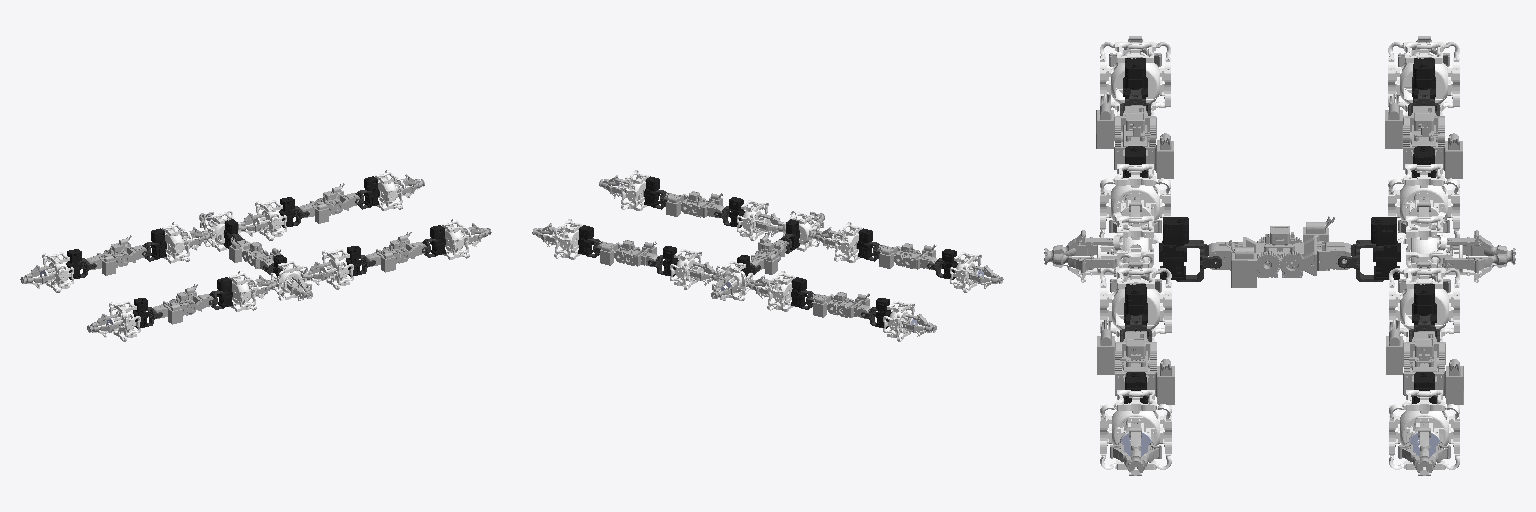
--- Facts derived from the render (not from the file) ---
3 views of the same robot in one strip: view 1: azimuth 30°, elevation 25°; view 2: azimuth 150°, elevation 25°; view 3: azimuth 270°, elevation 25° (orthographic).
Robot: r8_tycoon_assem — 156 links, 155 joints (90 continuous, 65 fixed); root link base_link; default pose: every joint at zero.
Links seen in each view (by area): view 1: none; view 2: none; view 3: griphis_0_mid_pitch_2_link, griphis_0_mid_pitch_1_link, griphis_0_yaw_2_link, griphis_0_yaw_1_link, griphis_2_mid_pitch_2_link, griphis_4_mid_pitch_1_link, griphis_1_mid_pitch_1_link, griphis_3_mid_pitch_2_link, griphis_4_mid_pitch_2_link, griphis_2_roll_2_link, griphis_4_roll_1_link, griphis_1_mid_pitch_2_link (+28 smaller).
Boxes of the visible links, left/top/right/bottom form: griphis_0_mid_pitch_2_link: left=1279, top=216, right=1350, bottom=276; griphis_0_mid_pitch_1_link: left=1209, top=237, right=1280, bottom=287; griphis_0_yaw_2_link: left=1371, top=217, right=1400, bottom=279; griphis_0_yaw_1_link: left=1159, top=217, right=1188, bottom=279; griphis_2_mid_pitch_2_link: left=1096, top=94, right=1156, bottom=148; griphis_4_mid_pitch_1_link: left=1386, top=320, right=1445, bottom=374; griphis_1_mid_pitch_1_link: left=1097, top=320, right=1156, bottom=374; griphis_3_mid_pitch_2_link: left=1385, top=94, right=1444, bottom=148; griphis_4_mid_pitch_2_link: left=1403, top=359, right=1463, bottom=404; griphis_2_roll_2_link: left=1100, top=42, right=1170, bottom=109; griphis_4_roll_1_link: left=1389, top=268, right=1459, bottom=335; griphis_1_mid_pitch_2_link: left=1115, top=359, right=1174, bottom=404.
Size in the robot's own frame: 1.24 by 0.5796 by 0.0959 metres.
155 mesh visuals loaded from 31 distinct referenced files (31 binary STL).

URDF robot description (r8_tycoon_assem):
<?xml version="1.0" ?>
<!-- =================================================================================== -->
<!-- |    This document was autogenerated by xacro from fourlegs_griphis.xacro         | -->
<!-- |    EDITING THIS FILE BY HAND IS NOT RECOMMENDED                                 | -->
<!-- =================================================================================== -->
<robot name="r8_tycoon_assem">
  <!-- Root of the module chain -->
  <link name="base_link"/>
  <joint name="griphis_0_gripper-cp1_to_base_link_joint" type="fixed">
    <parent link="base_link"/>
    <child link="griphis_0_gripper-cp1"/>
    <origin rpy="1.57 0 0" xyz="0 0 0.4"/>
  </joint>
  <link name="griphis_0_base_link">
    <inertial>
      <origin rpy="0 0 0" xyz="-0.00010264257406678 3.31727350517397E-05 -0.00495518296571391"/>
      <mass value="0.0797462541060097"/>
      <inertia ixx="8.57012114371153E-06" ixy="1.08293491537705E-08" ixz="-5.94275788505759E-09" iyy="1.05158543807875E-05" iyz="1.10583333432373E-08" izz="1.08869595154247E-05"/>
    </inertial>
    <visual>
      <origin rpy="0.0 -0.0 0.0" xyz="-0.0148999999999995 0.0176000000000318 0.0109999999999849"/>
      <geometry>
        <mesh filename="./../meshes/base_link.STL"/>
      </geometry>
      <material name="">
        <color rgba="0.752941176470588 0.752941176470588 0.752941176470588 1"/>
      </material>
    </visual>
    <collision>
      <origin rpy="0.0 -0.0 0.0" xyz="-0.0148999999999995 0.0176000000000318 0.0109999999999849"/>
      <geometry>
        <mesh filename="./../meshes/base_link.STL"/>
      </geometry>
    </collision>
  </link>
  <link name="griphis_0_mid_pitch_1_link">
    <inertial>
      <origin rpy="0 0 0" xyz="0.0327517154872403 0.0322634011493343 0.000309410745622088"/>
      <mass value="0.0769353285466722"/>
      <inertia ixx="1.72122749770761E-05" ixy="1.01496940835006E-08" ixz="-9.64331189423188E-08" iyy="1.36641198773196E-05" iyz="5.60814889063421E-07" izz="1.63211688368785E-05"/>
    </inertial>
    <visual>
      <origin rpy="0.0 -0.0 0.0" xyz="-0.0640000000000069 -0.0350999999999983 -0.0"/>
      <geometry>
        <mesh filename="./../meshes/mid_pitch_1_link.STL"/>
      </geometry>
      <material name="">
        <color rgba="0.752941176470588 0.752941176470588 0.752941176470588 1"/>
      </material>
    </visual>
    <collision>
      <origin rpy="0.0 -0.0 0.0" xyz="-0.0640000000000069 -0.0350999999999983 -0.0"/>
      <geometry>
        <mesh filename="./../meshes/mid_pitch_1_link.STL"/>
      </geometry>
    </collision>
  </link>
  <joint name="griphis_0_mid_pitch_1" type="continuous">
    <origin rpy="0.0 -0.0 0.0" xyz="-0.0640000000000069 -0.0350999999999983 -0.0"/>
    <parent link="griphis_0_mid_pitch_1_link"/>
    <child link="griphis_0_base_link"/>
    <axis xyz="-0.0 -1.0 -0.0"/>
    <limit effort="3" velocity="10"/>
  </joint>
  <link name="griphis_0_pitch_1_link">
    <inertial>
      <origin rpy="0 0 0" xyz="0.0191893034316777 -0.017231596070573 -0.00342856576321433"/>
      <mass value="0.0105178263834885"/>
      <inertia ixx="5.84801171286377E-07" ixy="3.57321505354626E-09" ixz="8.8152444778668E-08" iyy="1.04603360596441E-06" iyz="-1.51990885783075E-13" izz="9.82964870358909E-07"/>
    </inertial>
    <visual>
      <origin rpy="0.0 -0.0 0.0" xyz="-0.0420000000000015 0.0175000000000007 -0.0174999999999981"/>
      <geometry>
        <mesh filename="./../meshes/pitch_1_link.STL"/>
      </geometry>
      <material name="">
        <color rgba="0.298039215686275 0.298039215686275 0.298039215686275 1"/>
      </material>
    </visual>
    <collision>
      <origin rpy="0.0 -0.0 0.0" xyz="-0.0420000000000015 0.0175000000000007 -0.0174999999999981"/>
      <geometry>
        <mesh filename="./../meshes/pitch_1_link.STL"/>
      </geometry>
    </collision>
  </link>
  <joint name="griphis_0_pitch_1" type="continuous">
    <origin rpy="0.0 -0.0 0.0" xyz="-0.0420000000000015 0.0175000000000007 -0.0174999999999981"/>
    <parent link="griphis_0_pitch_1_link"/>
    <child link="griphis_0_mid_pitch_1_link"/>
    <axis xyz="-0.0 -1.0 -0.0"/>
    <limit effort="3" velocity="10"/>
  </joint>
  <link name="griphis_0_yaw_1_link">
    <inertial>
      <origin rpy="0 0 0" xyz="0.00934924439107056 -1.17000596711048E-10 -0.0065657034112081"/>
      <mass value="0.0544535701857151"/>
      <inertia ixx="6.16082295678474E-06" ixy="-1.48642619322733E-08" ixz="3.66332313625793E-08" iyy="7.36782974228272E-06" iyz="-1.48634431569832E-08" izz="7.24406343523596E-06"/>
    </inertial>
    <visual>
      <origin rpy="0.0 -0.0 0.0" xyz="-0.0279999999999981 -0.0 0.0175000000000002"/>
      <geometry>
        <mesh filename="./../meshes/yaw_1_link.STL"/>
      </geometry>
      <material name="">
        <color rgba="0.180392156862745 0.180392156862745 0.180392156862745 1"/>
      </material>
    </visual>
    <collision>
      <origin rpy="0.0 -0.0 0.0" xyz="-0.0279999999999981 -0.0 0.0175000000000002"/>
      <geometry>
        <mesh filename="./../meshes/yaw_1_link.STL"/>
      </geometry>
    </collision>
  </link>
  <joint name="griphis_0_yaw_1" type="continuous">
    <origin rpy="0.0 -0.0 0.0" xyz="-0.0279999999999981 -0.0 0.0175000000000002"/>
    <parent link="griphis_0_yaw_1_link"/>
    <child link="griphis_0_pitch_1_link"/>
    <axis xyz="-0.0 -0.0 1.0"/>
    <limit effort="3" velocity="10"/>
  </joint>
  <link name="griphis_0_roll_1_link">
    <inertial>
      <origin rpy="0 0 0" xyz="0.0304847934275313 -0.000533683595524997 -0.000138763582684304"/>
      <mass value="0.0617238803473503"/>
      <inertia ixx="1.72112591146286E-05" ixy="-2.34655399562005E-07" ixz="1.72186999812855E-07" iyy="1.09105230206178E-05" iyz="3.90599560040266E-08" izz="1.62402505711448E-05"/>
    </inertial>
    <visual>
      <origin rpy="0.0 -1.5707963267948966 -1.5707963267948966" xyz="-0.00031819805152675406 0.000318198051528346 -0.0766999999999999"/>
      <geometry>
        <mesh filename="./../meshes/roll_1_link.STL"/>
      </geometry>
      <material name="">
        <color rgba="1 1 1 1"/>
      </material>
    </visual>
    <collision>
      <origin rpy="0.0 -1.5707963267948966 -1.5707963267948966" xyz="-0.00031819805152675406 0.000318198051528346 -0.0766999999999999"/>
      <geometry>
        <mesh filename="./../meshes/roll_1_link.STL"/>
      </geometry>
    </collision>
  </link>
  <joint name="griphis_0_roll_1" type="continuous">
    <origin rpy="0.0 -1.5707963267948966 -1.5707963267948966" xyz="-0.00031819805152675406 0.000318198051528346 -0.0766999999999999"/>
    <parent link="griphis_0_roll_1_link"/>
    <child link="griphis_0_yaw_1_link"/>
    <axis xyz="1.0 -0.0 -0.0"/>
    <limit effort="3" velocity="10"/>
  </joint>
  <link name="griphis_0_worm_1_link">
    <inertial>
      <origin rpy="0 0 0" xyz="0.00680389923417661 1.29536242400655E-05 5.52986221441856E-05"/>
      <mass value="0.00387257618784269"/>
      <inertia ixx="2.06264558567859E-07" ixy="1.13917098659222E-09" ixz="-8.28881114232565E-10" iyy="1.7113732321225E-07" iyz="4.18404893657738E-11" izz="1.71297030362022E-07"/>
    </inertial>
    <visual>
      <origin rpy="0 0 0" xyz="0 0 0"/>
      <geometry>
        <mesh filename="./../meshes/worm_1_link.STL"/>
      </geometry>
      <material name="">
        <color rgba="0.752941176470588 0.752941176470588 0.752941176470588 1"/>
      </material>
    </visual>
    <collision>
      <origin rpy="0 0 0" xyz="0 0 0"/>
      <geometry>
        <mesh filename="./../meshes/worm_1_link.STL"/>
      </geometry>
    </collision>
  </link>
  <joint name="griphis_0_worm_rotate_1" type="continuous">
    <origin rpy="-1.5707963267948963 -1.5707963267948966 0.0" xyz="-0.00031819805152675406 0.00031819805152833553 -0.02969999999999999"/>
    <parent link="griphis_0_roll_1_link"/>
    <child link="griphis_0_worm_1_link"/>
    <axis xyz="1 0 0"/>
    <limit effort="15" velocity="10"/>
  </joint>
  <link name="griphis_0_nail1_1_link">
    <inertial>
      <origin rpy="0 0 0" xyz="0.0375115559402243 -4.52381021421033E-05 0.000927613439051046"/>
      <mass value="0.00785451508753953"/>
      <inertia ixx="3.26792929870295E-07" ixy="2.23311778369799E-10" ixz="3.04391588566406E-07" iyy="1.76174668735888E-06" iyz="-8.7203716693621E-12" izz="1.60467609944965E-06"/>
    </inertial>
    <visual>
      <origin rpy="0 0 0" xyz="0 0 0"/>
      <geometry>
        <mesh filename="./../meshes/nail1_1_link.STL"/>
      </geometry>
      <material name="">
        <color rgba="1 1 1 1"/>
      </material>
    </visual>
    <collision>
      <origin rpy="0 0 0" xyz="0 0 0"/>
      <geometry>
        <mesh filename="./../meshes/nail1_1_link.STL"/>
      </geometry>
    </collision>
  </link>
  <joint name="griphis_0_nail1_rotate_1" type="continuous">
    <origin rpy="1.5707963267948433 -1.5707963267948966 0.0" xyz="-0.00031819805152675075 -0.014681801948467067 -0.019699999999999995"/>
    <parent link="griphis_0_roll_1_link"/>
    <child link="griphis_0_nail1_1_link"/>
    <axis xyz="0 -1 0"/>
    <mimic joint="griphis_0_worm_rotate_1" multiplier="0.091" offset="0"/>
  </joint>
  <link name="griphis_0_nail2_1_link">
    <inertial>
      <origin rpy="0 0 0" xyz="0.0375922338704431 -0.000920668174592305 -5.01249966510589E-05"/>
      <mass value="0.00783920613274618"/>
      <inertia ixx="3.26764420600123E-07" ixy="-3.04083796030301E-07" ixz="3.01596352148099E-10" iyy="1.60307023285989E-06" iyz="-3.50228545349602E-11" izz="1.7600802033745E-06"/>
    </inertial>
    <visual>
      <origin rpy="0 0 0" xyz="0 0 0"/>
      <geometry>
        <mesh filename="./../meshes/nail2_1_link.STL"/>
      </geometry>
      <material name="">
        <color rgba="0.752941176470588 0.752941176470588 0.752941176470588 1"/>
      </material>
    </visual>
    <collision>
      <origin rpy="0 0 0" xyz="0 0 0"/>
      <geometry>
        <mesh filename="./../meshes/nail2_1_link.STL"/>
      </geometry>
    </collision>
  </link>
  <joint name="griphis_0_nail2_rotate_1" type="continuous">
    <origin rpy="-1.5707963267948963 -1.5707963267948966 0.0" xyz="-0.015318198051535455 0.00031819805152833 -0.019699999999999995"/>
    <parent link="griphis_0_roll_1_link"/>
    <child link="griphis_0_nail2_1_link"/>
    <axis xyz="0 0 -1"/>
    <mimic joint="griphis_0_worm_rotate_1" multiplier="0.091" offset="0"/>
  </joint>
  <link name="griphis_0_nail3_1_link">
    <inertial>
      <origin rpy="0 0 0" xyz="0.0376633576375596 -4.50239708446043E-05 0.000912382199221681"/>
      <mass value="0.00782164323980883"/>
      <inertia ixx="3.26387568167113E-07" ixy="1.94469452026803E-10" ixz="3.03929104031752E-07" iyy="1.75640452707706E-06" iyz="-1.77166863072923E-11" izz="1.59916689354216E-06"/>
    </inertial>
    <visual>
      <origin rpy="0 0 0" xyz="0 0 0"/>
      <geometry>
        <mesh filename="./../meshes/nail3_1_link.STL"/>
      </geometry>
      <material name="">
        <color rgba="0.752941176470588 0.752941176470588 0.752941176470588 1"/>
      </material>
    </visual>
    <collision>
      <origin rpy="0 0 0" xyz="0 0 0"/>
      <geometry>
        <mesh filename="./../meshes/nail3_1_link.STL"/>
      </geometry>
    </collision>
  </link>
  <joint name="griphis_0_nail3_rotate_1" type="continuous">
    <origin rpy="-1.5707963267948963 -1.5707963267948966 0.0" xyz="-0.00031819805152675737 0.015318198051532934 -0.019700000000000092"/>
    <parent link="griphis_0_roll_1_link"/>
    <child link="griphis_0_nail3_1_link"/>
    <axis xyz="0 -1 0"/>
    <mimic joint="griphis_0_worm_rotate_1" multiplier="0.091" offset="0"/>
  </joint>
  <link name="griphis_0_nail4_1_link">
    <inertial>
      <origin rpy="0 0 0" xyz="0.0376199045292883 0.000916237603659741 4.27065705779009E-05"/>
      <mass value="0.00783130292561273"/>
      <inertia ixx="3.26490723468266E-07" ixy="3.0398859313737E-07" ixz="-4.37077734142467E-10" iyy="1.60061195688429E-06" iyz="2.94387193060157E-11" izz="1.75778452318195E-06"/>
    </inertial>
    <visual>
      <origin rpy="0 0 0" xyz="0 0 0"/>
      <geometry>
        <mesh filename="./../meshes/nail4_1_link.STL"/>
      </geometry>
      <material name="">
        <color rgba="0.752941176470588 0.752941176470588 0.752941176470588 1"/>
      </material>
    </visual>
    <collision>
      <origin rpy="0 0 0" xyz="0 0 0"/>
      <geometry>
        <mesh filename="./../meshes/nail4_1_link.STL"/>
      </geometry>
    </collision>
  </link>
  <joint name="griphis_0_nail4_rotate_1" type="continuous">
    <origin rpy="-1.5707963267948963 -1.5707963267948966 0.0" xyz="0.014681801948464546 0.00031819805152833667 -0.019699999999999995"/>
    <parent link="griphis_0_roll_1_link"/>
    <child link="griphis_0_nail4_1_link"/>
    <axis xyz="0 0 1"/>
    <mimic joint="griphis_0_worm_rotate_1" multiplier="0.091" offset="0"/>
  </joint>
  <link name="griphis_0_nail-cp1">
    <inertial>
      <origin rpy="0 0 0" xyz="-2.058274506931E-05 -0.000405813357968389 -0.0658092329631552"/>
      <mass value="0.0011585387013778"/>
      <inertia ixx="1.05682260080874E-07" ixy="-1.5764583148915E-09" ixz="-7.53303890952621E-11" iyy="1.05682260080874E-07" iyz="7.53303890952626E-11" izz="2.1081276337663E-07"/>
    </inertial>
    <visual>
      <origin rpy="0 0 0" xyz="0 0 0"/>
      <geometry>
        <mesh filename="./../meshes/nail-cp1.STL"/>
      </geometry>
      <material name="">
        <color rgba="1 1 1 1"/>
      </material>
    </visual>
    <collision>
      <origin rpy="0 0 0" xyz="0 0 0"/>
      <geometry>
        <mesh filename="./../meshes/nail-cp1.STL"/>
      </geometry>
    </collision>
  </link>
  <joint name="griphis_0_nail-cp1" type="fixed">
    <origin rpy="6.4948046940571666e-15 3.774758283725532e-15 -3.141592653589793" xyz="-0.000636396103034807 0.00020999999999474846 0.0650000000000001"/>
    <parent link="griphis_0_roll_1_link"/>
    <child link="griphis_0_nail-cp1"/>
    <axis xyz="0 0 0"/>
  </joint>
  <link name="griphis_0_gripper-cp1">
    <inertial>
      <origin rpy="0 0 0" xyz="-0.000249014516100668 -0.00102239026541428 -0.0133818116212472"/>
      <mass value="0.0105278029927928"/>
      <inertia ixx="2.49426973639437E-06" ixy="-4.53009756265879E-08" ixz="6.75736959711176E-08" iyy="2.70040122944883E-06" iyz="-2.88247256637324E-07" izz="2.67368335360225E-06"/>
    </inertial>
    <visual>
      <origin rpy="0 0 0" xyz="0 0 0"/>
      <geometry>
        <mesh filename="./../meshes/gripper-cp1.STL"/>
      </geometry>
      <material name="">
        <color rgba="1 1 1 1"/>
      </material>
    </visual>
    <collision>
      <origin rpy="0 0 0" xyz="0 0 0"/>
      <geometry>
        <mesh filename="./../meshes/gripper-cp1.STL"/>
      </geometry>
    </collision>
  </link>
  <joint name="griphis_0_gripper-cp1" type="fixed">
    <origin rpy="0 0 0" xyz="0 0 0"/>
    <parent link="griphis_0_gripper-cp1"/>
    <child link="griphis_0_roll_1_link"/>
    <axis xyz="-0.0 -0.0 -0.0"/>
  </joint>
  <link name="griphis_0_nailring1-cp1">
    <inertial>
      <origin rpy="0 0 0" xyz="0.000495209639942942 -2.15213012098869E-07 -0.00500225533856013"/>
      <mass value="0.00888435164177016"/>
      <inertia ixx="1.85848970375133E-06" ixy="4.08320407087235E-11" ixz="9.14133574374128E-10" iyy="1.88948158451332E-06" iyz="-1.8157617423749E-12" izz="3.47494887160992E-06"/>
    </inertial>
    <visual>
      <origin rpy="0 0 0" xyz="0 0 0"/>
      <geometry>
        <mesh filename="./../meshes/nailring1-cp1.STL"/>
      </geometry>
      <material name="">
        <color rgba="1 1 1 1"/>
      </material>
    </visual>
    <collision>
      <origin rpy="0 0 0" xyz="0 0 0"/>
      <geometry>
        <mesh filename="./../meshes/nailring1-cp1.STL"/>
      </geometry>
    </collision>
  </link>
  <joint name="griphis_0_nailring1-cp1" type="fixed">
    <origin rpy="1.5707963267948433 -1.5707963267948966 0.0" xyz="-0.0003181980515267614 0.033318198051532834 -0.048100053496672186"/>
    <parent link="griphis_0_roll_1_link"/>
    <child link="griphis_0_nailring1-cp1"/>
    <axis xyz="0 0 0"/>
  </joint>
  <link name="griphis_0_nailring1-cp2">
    <inertial>
      <origin rpy="0 0 0" xyz="0.000495209639943192 -2.15213011856008E-07 -0.00500225533855998"/>
      <mass value="0.00888435164177017"/>
      <inertia ixx="1.85848970375133E-06" ixy="4.08320407083519E-11" ixz="9.1413357437371E-10" iyy="1.88948158451332E-06" iyz="-1.81576174254404E-12" izz="3.47494887160992E-06"/>
    </inertial>
    <visual>
      <origin rpy="0 0 0" xyz="0 0 0"/>
      <geometry>
        <mesh filename="./../meshes/nailring1-cp2.STL"/>
      </geometry>
      <material name="">
        <color rgba="1 1 1 1"/>
      </material>
    </visual>
    <collision>
      <origin rpy="0 0 0" xyz="0 0 0"/>
      <geometry>
        <mesh filename="./../meshes/nailring1-cp2.STL"/>
      </geometry>
    </collision>
  </link>
  <joint name="griphis_0_nailring1-cp2" type="fixed">
    <origin rpy="-5.645484080218921e-14 -1.5707963057214722 0.0" xyz="0.03268180194846475 0.00031819805152834697 -0.048100053496672394"/>
    <parent link="griphis_0_roll_1_link"/>
    <child link="griphis_0_nailring1-cp2"/>
    <axis xyz="0 0 0"/>
  </joint>
  <link name="griphis_0_nailring1-cp3">
    <inertial>
      <origin rpy="0 0 0" xyz="-0.000495209639943185 2.1521301184213E-07 -0.00500225533856018"/>
      <mass value="0.00888435164177015"/>
      <inertia ixx="1.85848970375133E-06" ixy="4.08320407089207E-11" ixz="-9.14133574373382E-10" iyy="1.88948158451332E-06" iyz="1.81576174213503E-12" izz="3.47494887160991E-06"/>
    </inertial>
    <visual>
      <origin rpy="0 0 0" xyz="0 0 0"/>
      <geometry>
        <mesh filename="./../meshes/nailring1-cp3.STL"/>
      </geometry>
      <material name="">
        <color rgba="1 1 1 1"/>
      </material>
    </visual>
    <collision>
      <origin rpy="0 0 0" xyz="0 0 0"/>
      <geometry>
        <mesh filename="./../meshes/nailring1-cp3.STL"/>
      </geometry>
    </collision>
  </link>
  <joint name="griphis_0_nailring1-cp3" type="fixed">
    <origin rpy="-1.5707963267948963 -1.5707963267948966 0.0" xyz="-0.00031819805152674674 -0.03268180194846797 -0.0482999465033276"/>
    <parent link="griphis_0_roll_1_link"/>
    <child link="griphis_0_nailring1-cp3"/>
    <axis xyz="0 0 0"/>
  </joint>
  <link name="griphis_0_nailring1-cp4">
    <inertial>
      <origin rpy="0 0 0" xyz="-0.000495209639943033 2.15213012022542E-07 -0.00500225533856014"/>
      <mass value="0.00888435164177017"/>
      <inertia ixx="1.85848970375133E-06" ixy="4.08320407090649E-11" ixz="-9.14133574373576E-10" iyy="1.88948158451332E-06" iyz="1.81576174274984E-12" izz="3.47494887160992E-06"/>
    </inertial>
    <visual>
      <origin rpy="0 0 0" xyz="0 0 0"/>
      <geometry>
        <mesh filename="./../meshes/nailring1-cp4.STL"/>
      </geometry>
      <material name="">
        <color rgba="1 1 1 1"/>
      </material>
    </visual>
    <collision>
      <origin rpy="0 0 0" xyz="0 0 0"/>
      <geometry>
        <mesh filename="./../meshes/nailring1-cp4.STL"/>
      </geometry>
    </collision>
  </link>
  <joint name="griphis_0_nailring1-cp4" type="fixed">
    <origin rpy="3.14159265358973 -1.5707963057214722 0.0" xyz="-0.03331819805153535 0.00031819805152833233 -0.048099946503327794"/>
    <parent link="griphis_0_roll_1_link"/>
    <child link="griphis_0_nailring1-cp4"/>
    <axis xyz="0 0 0"/>
  </joint>
  <link name="griphis_0_mid_pitch_2_link">
    <inertial>
      <origin rpy="0 0 0" xyz="-0.0327473641033502 -0.0322605669359661 0.000309352298986196"/>
      <mass value="0.0769502016363242"/>
      <inertia ixx="1.72130959551283E-05" ixy="1.01485711646082E-08" ixz="9.64338520342348E-08" iyy="1.36643051799986E-05" iyz="-5.60812725052765E-07" izz="1.63206675803235E-05"/>
    </inertial>
    <visual>
      <origin rpy="0 0 0" xyz="0 0 0"/>
      <geometry>
        <mesh filename="./../meshes/mid_pitch_2_link.STL"/>
      </geometry>
      <material name="">
        <color rgba="0.752941176470588 0.752941176470588 0.752941176470588 1"/>
      </material>
    </visual>
    <collision>
      <origin rpy="0 0 0" xyz="0 0 0"/>
      <geometry>
        <mesh filename="./../meshes/mid_pitch_2_link.STL"/>
      </geometry>
    </collision>
  </link>
  <joint name="griphis_0_mid_pitch_2" type="continuous">
    <origin rpy="0.0 0.0 0.0" xyz="-0.029900000000000003 0.0352000000000001 0.0002100000000035008"/>
    <parent link="griphis_0_base_link"/>
    <child link="griphis_0_mid_pitch_2_link"/>
    <axis xyz="0 -1 0"/>
    <limit effort="3" velocity="10"/>
    <mimic joint="griphis_0_mid_pitch_1" multiplier="1" offset="0"/>
  </joint>
  <link name="griphis_0_pitch_2_link">
    <inertial>
      <origin rpy="0 0 0" xyz="-0.0191893034316743 0.0172315960705706 -0.00342856576323701"/>
      <mass value="0.0105178263834885"/>
      <inertia ixx="5.84801171286379E-07" ixy="3.57321505353334E-09" ixz="-8.81524447786701E-08" iyy="1.04603360596441E-06" iyz="1.51990880905164E-13" izz="9.82964870358905E-07"/>
    </inertial>
    <visual>
      <origin rpy="0 0 0" xyz="0 0 0"/>
      <geometry>
        <mesh filename="./../meshes/pitch_2_link.STL"/>
      </geometry>
      <material name="">
        <color rgba="0.298039215686275 0.298039215686275 0.298039215686275 1"/>
      </material>
    </visual>
    <collision>
      <origin rpy="0 0 0" xyz="0 0 0"/>
      <geometry>
        <mesh filename="./../meshes/pitch_2_link.STL"/>
      </geometry>
    </collision>
  </link>
  <joint name="griphis_0_pitch_2" type="continuous">
    <origin rpy="0 0 0" xyz="-0.0640000000000067 -0.0350999999999972 0"/>
    <parent link="griphis_0_mid_pitch_2_link"/>
    <child link="griphis_0_pitch_2_link"/>
    <axis xyz="0 1 0"/>
    <limit effort="3" velocity="10"/>
  </joint>
  <link name="griphis_0_yaw_2_link">
    <inertial>
      <origin rpy="0 0 0" xyz="-0.00934924449476787 -1.20738749553873E-09 -0.00656570463247875"/>
      <mass value="0.0544536529144548"/>
      <inertia ixx="6.1608306877813E-06" ixy="-1.48630786812854E-08" ixz="-3.66333645918454E-08" iyy="7.36783210634451E-06" iyz="1.48635489875795E-08" izz="7.24407314817233E-06"/>
    </inertial>
    <visual>
      <origin rpy="0 0 0" xyz="0 0 0"/>
      <geometry>
        <mesh filename="./../meshes/yaw_2_link.STL"/>
      </geometry>
      <material name="">
        <color rgba="0.180392156862745 0.180392156862745 0.180392156862745 1"/>
      </material>
    </visual>
    <collision>
      <origin rpy="0 0 0" xyz="0 0 0"/>
      <geometry>
        <mesh filename="./../meshes/yaw_2_link.STL"/>
      </geometry>
    </collision>
  </link>
  <joint name="griphis_0_yaw_2" type="continuous">
    <origin rpy="0 0 0" xyz="-0.0419999999999942 0.0175000000000631 0.0174999999999867"/>
    <parent link="griphis_0_pitch_2_link"/>
    <child link="griphis_0_yaw_2_link"/>
    <axis xyz="0 0 -1"/>
    <limit effort="3" velocity="10"/>
  </joint>
  <link name="griphis_0_roll_2_link">
    <inertial>
      <origin rpy="0 0 0" xyz="-0.0304847934275298 0.000533683595516123 -0.000138763582688578"/>
      <mass value="0.0617238803473503"/>
      <inertia ixx="1.72112591146286E-05" ixy="-2.34655399562003E-07" ixz="-1.72186999812873E-07" iyy="1.09105230206178E-05" iyz="-3.90599560037894E-08" izz="1.62402505711448E-05"/>
    </inertial>
    <visual>
      <origin rpy="0 0 0" xyz="0 0 0"/>
      <geometry>
        <mesh filename="./../meshes/roll_2_link.STL"/>
      </geometry>
      <material name="">
        <color rgba="1 1 1 1"/>
      </material>
    </visual>
    <collision>
      <origin rpy="0 0 0" xyz="0 0 0"/>
      <geometry>
        <mesh filename="./../meshes/roll_2_link.STL"/>
      </geometry>
    </collision>
  </link>
  <joint name="griphis_0_roll_2" type="continuous">
    <origin rpy="0 0 0" xyz="-0.0280000000000042 0 -0.0175000000000007"/>
    <parent link="griphis_0_yaw_2_link"/>
    <child link="griphis_0_roll_2_link"/>
    <axis xyz="-1 0 0"/>
    <limit effort="3" velocity="10"/>
  </joint>
  <link name="griphis_0_worm_2_link">
    <inertial>
      <origin rpy="0 0 0" xyz="-0.00680389920380498 5.66707617536341E-05 3.76180533663562E-06"/>
      <mass value="0.00387257616321651"/>
      <inertia ixx="2.0626455720602E-07" ixy="6.3200237698076E-10" ixz="-1.25909856906162E-09" iyy="1.713062458146E-07" iyz="1.39152999506885E-11" izz="1.71128105557195E-07"/>
    </inertial>
    <visual>
      <origin rpy="0 0 0" xyz="0 0 0"/>
      <geometry>
        <mesh filename="./../meshes/worm_2_link.STL"/>
      </geometry>
      <material name="">
        <color rgba="0.752941176470588 0.752941176470588 0.752941176470588 1"/>
      </material>
    </visual>
    <collision>
      <origin rpy="0 0 0" xyz="0 0 0"/>
      <geometry>
        <mesh filename="./../meshes/worm_2_link.STL"/>
      </geometry>
    </collision>
  </link>
  <joint name="griphis_0_worm_rotate_2" type="continuous">
    <origin rpy="0 0 0" xyz="-0.0470000000000015 0 0"/>
    <parent link="griphis_0_roll_2_link"/>
    <child link="griphis_0_worm_2_link"/>
    <axis xyz="0.737216674660088 0 0.675656402769279"/>
    <limit effort="15" velocity="10"/>
  </joint>
  <link name="griphis_0_nail1_2_link">
    <inertial>
      <origin rpy="0 0 0" xyz="-0.0375115559402153 0.000154761897861344 -0.000927613439127735"/>
      <mass value="0.00785451508753956"/>
      <inertia ixx="3.26792929870324E-07" ixy="-2.23311778394515E-10" ixz="3.04391588566463E-07" iyy="1.76174668735889E-06" iyz="8.72037168507631E-12" izz="1.60467609944963E-06"/>
    </inertial>
    <visual>
      <origin rpy="0 0 0" xyz="0 0 0"/>
      <geometry>
        <mesh filename="./../meshes/nail1_2_link.STL"/>
      </geometry>
      <material name="">
        <color rgba="1 1 1 1"/>
      </material>
    </visual>
    <collision>
      <origin rpy="0 0 0" xyz="0 0 0"/>
      <geometry>
        <mesh filename="./../meshes/nail1_2_link.STL"/>
      </geometry>
    </collision>
  </link>
  <joint name="griphis_0_nail1_rotate_2" type="continuous">
    <origin rpy="0 0 0" xyz="-0.0570000000000014 0 -0.0149999999999872"/>
    <parent link="griphis_0_roll_2_link"/>
    <child link="griphis_0_nail1_2_link"/>
    <axis xyz="0 -1 0"/>
    <mimic joint="griphis_0_worm_rotate_2" multiplier="0.091" offset="0"/>
  </joint>
  <link name="griphis_0_nail2_2_link">
    <inertial>
      <origin rpy="0 0 0" xyz="-0.0375922338704413 0.000920668174601659 0.000149875003347476"/>
      <mass value="0.00783920613274653"/>
      <inertia ixx="3.26764420600132E-07" ixy="-3.0408379603033E-07" ixz="-3.01596352109658E-10" iyy="1.60307023286001E-06" iyz="3.50228545423785E-11" izz="1.76008020337463E-06"/>
    </inertial>
    <visual>
      <origin rpy="0 0 0" xyz="0 0 0"/>
      <geometry>
        <mesh filename="./../meshes/nail2_2_link.STL"/>
      </geometry>
      <material name="">
        <color rgba="0.752941176470588 0.752941176470588 0.752941176470588 1"/>
      </material>
    </visual>
    <collision>
      <origin rpy="0 0 0" xyz="0 0 0"/>
      <geometry>
        <mesh filename="./../meshes/nail2_2_link.STL"/>
      </geometry>
    </collision>
  </link>
  <joint name="griphis_0_nail2_rotate_2" type="continuous">
    <origin rpy="0 0 0" xyz="-0.0570000000000009 0.015 0"/>
    <parent link="griphis_0_roll_2_link"/>
    <child link="griphis_0_nail2_2_link"/>
    <axis xyz="0 0 -1"/>
    <mimic joint="griphis_0_worm_rotate_2" multiplier="0.091" offset="0"/>
  </joint>
  <link name="griphis_0_nail3_2_link">
    <inertial>
      <origin rpy="0 0 0" xyz="-0.0376633576375554 4.50239708458949E-05 0.000912382199144402"/>
      <mass value="0.00782164323980893"/>
      <inertia ixx="3.26387568167086E-07" ixy="1.94469452048084E-10" ixz="-3.03929104031706E-07" iyy="1.75640452707709E-06" iyz="1.77166863189614E-11" izz="1.59916689354222E-06"/>
    </inertial>
    <visual>
      <origin rpy="0 0 0" xyz="0 0 0"/>
      <geometry>
        <mesh filename="./../meshes/nail3_2_link.STL"/>
      </geometry>
      <material name="">
        <color rgba="0.752941176470588 0.752941176470588 0.752941176470588 1"/>
      </material>
    </visual>
    <collision>
      <origin rpy="0 0 0" xyz="0 0 0"/>
      <geometry>
        <mesh filename="./../meshes/nail3_2_link.STL"/>
      </geometry>
    </collision>
  </link>
  <joint name="griphis_0_nail3_rotate_2" type="continuous">
    <origin rpy="0 0 0" xyz="-0.0570000000000004 0 0.0150000000000128"/>
    <parent link="griphis_0_roll_2_link"/>
    <child link="griphis_0_nail3_2_link"/>
    <axis xyz="0 1 0"/>
    <mimic joint="griphis_0_worm_rotate_2" multiplier="0.091" offset="0"/>
  </joint>
  <link name="griphis_0_nail4_2_link">
    <inertial>
      <origin rpy="0 0 0" xyz="-0.0376199045292857 -0.000916237603655147 -0.000157293429422369"/>
      <mass value="0.00783130292561298"/>
      <inertia ixx="3.26490723468276E-07" ixy="3.03988593137378E-07" ixz="4.37077734057104E-10" iyy="1.60061195688436E-06" iyz="-2.94387192594929E-11" izz="1.75778452318202E-06"/>
    </inertial>
    <visual>
      <origin rpy="0 0 0" xyz="0 0 0"/>
      <geometry>
        <mesh filename="./../meshes/nail4_2_link.STL"/>
      </geometry>
      <material name="">
        <color rgba="0.752941176470588 0.752941176470588 0.752941176470588 1"/>
      </material>
    </visual>
    <collision>
      <origin rpy="0 0 0" xyz="0 0 0"/>
      <geometry>
        <mesh filename="./../meshes/nail4_2_link.STL"/>
      </geometry>
    </collision>
  </link>
  <joint name="griphis_0_nail4_rotate_2" type="continuous">
    <origin rpy="0 0 0" xyz="-0.0570000000000017 -0.0149999999999955 0"/>
    <parent link="griphis_0_roll_2_link"/>
    <child link="griphis_0_nail4_2_link"/>
    <axis xyz="0 0 1"/>
    <mimic joint="griphis_0_worm_rotate_2" multiplier="0.091" offset="0"/>
  </joint>
  <link name="griphis_0_nail-cp2">
    <inertial>
      <origin rpy="0 0 0" xyz="0.000615813357965365 -0.00061581335794697 -0.0658092329631574"/>
      <mass value="0.00115853870137781"/>
      <inertia ixx="1.05682260080874E-07" ixy="-1.5764583148907E-09" ixz="-7.53303890952508E-11" iyy="1.05682260080874E-07" iyz="7.53303890920378E-11" izz="2.10812763376632E-07"/>
    </inertial>
    <visual>
      <origin rpy="0 0 0" xyz="0 0 0"/>
      <geometry>
        <mesh filename="./../meshes/nail-cp2.STL"/>
      </geometry>
      <material name="">
        <color rgba="0.796078431372549 0.823529411764706 0.937254901960784 1"/>
      </material>
    </visual>
    <collision>
      <origin rpy="0 0 0" xyz="0 0 0"/>
      <geometry>
        <mesh filename="./../meshes/nail-cp2.STL"/>
      </geometry>
    </collision>
  </link>
  <joint name="griphis_0_nail-cp2" type="fixed">
    <origin rpy="-1.5707963267949 0 1.5707963267949" xyz="-0.141700000000001 -0.000318198051535531 -0.00031819805151536"/>
    <parent link="griphis_0_roll_2_link"/>
    <child link="griphis_0_nail-cp2"/>
    <axis xyz="0 0 0"/>
  </joint>
  <link name="griphis_0_gripper-cp2">
    <inertial>
      <origin rpy="0 0 0" xyz="0.000249014516096963 -0.00102239026539895 0.0133818116212488"/>
      <mass value="0.0105278029927927"/>
      <inertia ixx="2.49426973639434E-06" ixy="4.53009756265701E-08" ixz="6.75736959710746E-08" iyy="2.70040122944888E-06" iyz="2.88247256637327E-07" izz="2.67368335360219E-06"/>
    </inertial>
    <visual>
      <origin rpy="0 0 0" xyz="0 0 0"/>
      <geometry>
        <mesh filename="./../meshes/gripper-cp2.STL"/>
      </geometry>
      <material name="">
        <color rgba="1 1 1 1"/>
      </material>
    </visual>
    <collision>
      <origin rpy="0 0 0" xyz="0 0 0"/>
      <geometry>
        <mesh filename="./../meshes/gripper-cp2.STL"/>
      </geometry>
    </collision>
  </link>
  <joint name="griphis_0_gripper-cp2" type="fixed">
    <origin rpy="-1.57079632679485 0 -1.57079632679489" xyz="-0.0766999999999999 -0.000318198051539618 -0.000318198051517046"/>
    <parent link="griphis_0_roll_2_link"/>
    <child link="griphis_0_gripper-cp2"/>
    <axis xyz="0 0 0"/>
  </joint>
  <link name="griphis_0_nailring2-cp1">
    <inertial>
      <origin rpy="0 0 0" xyz="0.000495209639943872 -2.15213011231508E-07 -0.0050022553385601"/>
      <mass value="0.00888435164177013"/>
      <inertia ixx="1.85848970375132E-06" ixy="4.08320407075244E-11" ixz="9.14133574374455E-10" iyy="1.88948158451332E-06" iyz="-1.81576174187697E-12" izz="3.47494887160991E-06"/>
    </inertial>
    <visual>
      <origin rpy="0 0 0" xyz="0 0 0"/>
      <geometry>
        <mesh filename="./../meshes/nailring2-cp1.STL"/>
      </geometry>
      <material name="">
        <color rgba="1 1 1 1"/>
      </material>
    </visual>
    <collision>
      <origin rpy="0 0 0" xyz="0 0 0"/>
      <geometry>
        <mesh filename="./../meshes/nailring2-cp1.STL"/>
      </geometry>
    </collision>
  </link>
  <joint name="griphis_0_nailring2-cp1" type="fixed">
    <origin rpy="3.14159265358978 0 -3.14159238847494" xyz="-0.0285999465033246 0 0.0330000000000001"/>
    <parent link="griphis_0_roll_2_link"/>
    <child link="griphis_0_nailring2-cp1"/>
    <axis xyz="0 0 0"/>
  </joint>
  <link name="griphis_0_nailring2-cp2">
    <inertial>
      <origin rpy="0 0 0" xyz="0.000495209639942984 -2.15213012050297E-07 -0.00500225533856015"/>
      <mass value="0.00888435164177019"/>
      <inertia ixx="1.85848970375134E-06" ixy="4.08320407074391E-11" ixz="9.14133574373919E-10" iyy="1.88948158451332E-06" iyz="-1.81576174216739E-12" izz="3.47494887160993E-06"/>
    </inertial>
    <visual>
      <origin rpy="0 0 0" xyz="0 0 0"/>
      <geometry>
        <mesh filename="./../meshes/nailring2-cp2.STL"/>
      </geometry>
      <material name="">
        <color rgba="1 1 1 1"/>
      </material>
    </visual>
    <collision>
      <origin rpy="0 0 0" xyz="0 0 0"/>
      <geometry>
        <mesh filename="./../meshes/nailring2-cp2.STL"/>
      </geometry>
    </collision>
  </link>
  <joint name="griphis_0_nailring2-cp2" type="fixed">
    <origin rpy="1.57079632679488 0 3.14159265358979" xyz="-0.0285999465033264 -0.0330000000000002 0"/>
    <parent link="griphis_0_roll_2_link"/>
    <child link="griphis_0_nailring2-cp2"/>
    <axis xyz="0 0 0"/>
  </joint>
  <link name="griphis_0_nailring2-cp3">
    <inertial>
      <origin rpy="0 0 0" xyz="-0.000495209639942817 2.15213012078053E-07 -0.00500225533856008"/>
      <mass value="0.00888435164177013"/>
      <inertia ixx="1.85848970375132E-06" ixy="4.08320407098813E-11" ixz="-9.14133574373917E-10" iyy="1.88948158451331E-06" iyz="1.81576173997682E-12" izz="3.4749488716099E-06"/>
    </inertial>
    <visual>
      <origin rpy="0 0 0" xyz="0 0 0"/>
      <geometry>
        <mesh filename="./../meshes/nailring2-cp3.STL"/>
      </geometry>
      <material name="">
        <color rgba="1 1 1 1"/>
      </material>
    </visual>
    <collision>
      <origin rpy="0 0 0" xyz="0 0 0"/>
      <geometry>
        <mesh filename="./../meshes/nailring2-cp3.STL"/>
      </geometry>
    </collision>
  </link>
  <joint name="griphis_0_nailring2-cp3" type="fixed">
    <origin rpy="0 0 3.14159238847493" xyz="-0.0284000534966716 0 -0.0330000000000008"/>
    <parent link="griphis_0_roll_2_link"/>
    <child link="griphis_0_nailring2-cp3"/>
    <axis xyz="0 0 0"/>
  </joint>
  <link name="griphis_0_nailring2-cp4">
    <inertial>
      <origin rpy="0 0 0" xyz="-0.000495209639943039 2.15213012015603E-07 -0.00500225533856"/>
      <mass value="0.00888435164177014"/>
      <inertia ixx="1.85848970375133E-06" ixy="4.08320407107192E-11" ixz="-9.14133574373996E-10" iyy="1.88948158451331E-06" iyz="1.81576174170535E-12" izz="3.47494887160991E-06"/>
    </inertial>
    <visual>
      <origin rpy="0 0 0" xyz="0 0 0"/>
      <geometry>
        <mesh filename="./../meshes/nailring2-cp4.STL"/>
      </geometry>
      <material name="">
        <color rgba="1 1 1 1"/>
      </material>
    </visual>
    <collision>
      <origin rpy="0 0 0" xyz="0 0 0"/>
      <geometry>
        <mesh filename="./../meshes/nailring2-cp4.STL"/>
      </geometry>
    </collision>
  </link>
  <joint name="griphis_0_nailring2-cp4" type="fixed">
    <origin rpy="-1.57079632679492 0 3.14159265358979" xyz="-0.0286000534966706 0.0329999999999998 0"/>
    <parent link="griphis_0_roll_2_link"/>
    <child link="griphis_0_nailring2-cp4"/>
    <axis xyz="0 0 0"/>
  </joint>
  <joint name="griphis_1_gripper-cp1_to_griphis_0_nailring1-cp2_joint" type="fixed">
    <parent link="griphis_0_nailring1-cp2"/>
    <child link="griphis_1_gripper-cp1"/>
    <origin rpy="0 0 0" xyz="0 0 -0.07"/>
  </joint>
  <link name="griphis_1_base_link">
    <inertial>
      <origin rpy="0 0 0" xyz="-0.00010264257406678 3.31727350517397E-05 -0.00495518296571391"/>
      <mass value="0.0797462541060097"/>
      <inertia ixx="8.57012114371153E-06" ixy="1.08293491537705E-08" ixz="-5.94275788505759E-09" iyy="1.05158543807875E-05" iyz="1.10583333432373E-08" izz="1.08869595154247E-05"/>
    </inertial>
    <visual>
      <origin rpy="0.0 -0.0 0.0" xyz="-0.0148999999999995 0.0176000000000318 0.0109999999999849"/>
      <geometry>
        <mesh filename="./../meshes/base_link.STL"/>
      </geometry>
      <material name="">
        <color rgba="0.752941176470588 0.752941176470588 0.752941176470588 1"/>
      </material>
    </visual>
    <collision>
      <origin rpy="0.0 -0.0 0.0" xyz="-0.0148999999999995 0.0176000000000318 0.0109999999999849"/>
      <geometry>
        <mesh filename="./../meshes/base_link.STL"/>
      </geometry>
    </collision>
  </link>
  <link name="griphis_1_mid_pitch_1_link">
    <inertial>
      <origin rpy="0 0 0" xyz="0.0327517154872403 0.0322634011493343 0.000309410745622088"/>
      <mass value="0.0769353285466722"/>
      <inertia ixx="1.72122749770761E-05" ixy="1.01496940835006E-08" ixz="-9.64331189423188E-08" iyy="1.36641198773196E-05" iyz="5.60814889063421E-07" izz="1.63211688368785E-05"/>
    </inertial>
    <visual>
      <origin rpy="0.0 -0.0 0.0" xyz="-0.0640000000000069 -0.0350999999999983 -0.0"/>
      <geometry>
        <mesh filename="./../meshes/mid_pitch_1_link.STL"/>
      </geometry>
      <material name="">
        <color rgba="0.752941176470588 0.752941176470588 0.752941176470588 1"/>
      </material>
    </visual>
    <collision>
      <origin rpy="0.0 -0.0 0.0" xyz="-0.0640000000000069 -0.0350999999999983 -0.0"/>
      <geometry>
        <mesh filename="./../meshes/mid_pitch_1_link.STL"/>
      </geometry>
    </collision>
  </link>
  <joint name="griphis_1_mid_pitch_1" type="continuous">
    <origin rpy="0.0 -0.0 0.0" xyz="-0.0640000000000069 -0.0350999999999983 -0.0"/>
    <parent link="griphis_1_mid_pitch_1_link"/>
    <child link="griphis_1_base_link"/>
    <axis xyz="-0.0 -1.0 -0.0"/>
    <limit effort="3" velocity="10"/>
  </joint>
  <link name="griphis_1_pitch_1_link">
    <inertial>
      <origin rpy="0 0 0" xyz="0.0191893034316777 -0.017231596070573 -0.00342856576321433"/>
      <mass value="0.0105178263834885"/>
      <inertia ixx="5.84801171286377E-07" ixy="3.57321505354626E-09" ixz="8.8152444778668E-08" iyy="1.04603360596441E-06" iyz="-1.51990885783075E-13" izz="9.82964870358909E-07"/>
    </inertial>
    <visual>
      <origin rpy="0.0 -0.0 0.0" xyz="-0.0420000000000015 0.0175000000000007 -0.0174999999999981"/>
      <geometry>
        <mesh filename="./../meshes/pitch_1_link.STL"/>
      </geometry>
      <material name="">
        <color rgba="0.298039215686275 0.298039215686275 0.298039215686275 1"/>
      </material>
    </visual>
    <collision>
      <origin rpy="0.0 -0.0 0.0" xyz="-0.0420000000000015 0.0175000000000007 -0.0174999999999981"/>
      <geometry>
        <mesh filename="./../meshes/pitch_1_link.STL"/>
      </geometry>
    </collision>
  </link>
  <joint name="griphis_1_pitch_1" type="continuous">
    <origin rpy="0.0 -0.0 0.0" xyz="-0.0420000000000015 0.0175000000000007 -0.0174999999999981"/>
    <parent link="griphis_1_pitch_1_link"/>
    <child link="griphis_1_mid_pitch_1_link"/>
    <axis xyz="-0.0 -1.0 -0.0"/>
    <limit effort="3" velocity="10"/>
  </joint>
  <link name="griphis_1_yaw_1_link">
    <inertial>
      <origin rpy="0 0 0" xyz="0.00934924439107056 -1.17000596711048E-10 -0.0065657034112081"/>
      <mass value="0.0544535701857151"/>
      <inertia ixx="6.16082295678474E-06" ixy="-1.48642619322733E-08" ixz="3.66332313625793E-08" iyy="7.36782974228272E-06" iyz="-1.48634431569832E-08" izz="7.24406343523596E-06"/>
    </inertial>
    <visual>
      <origin rpy="0.0 -0.0 0.0" xyz="-0.0279999999999981 -0.0 0.0175000000000002"/>
      <geometry>
        <mesh filename="./../meshes/yaw_1_link.STL"/>
      </geometry>
      <material name="">
        <color rgba="0.180392156862745 0.180392156862745 0.180392156862745 1"/>
      </material>
    </visual>
    <collision>
      <origin rpy="0.0 -0.0 0.0" xyz="-0.0279999999999981 -0.0 0.0175000000000002"/>
      <geometry>
        <mesh filename="./../meshes/yaw_1_link.STL"/>
      </geometry>
    </collision>
  </link>
  <joint name="griphis_1_yaw_1" type="continuous">
    <origin rpy="0.0 -0.0 0.0" xyz="-0.0279999999999981 -0.0 0.0175000000000002"/>
    <parent link="griphis_1_yaw_1_link"/>
    <child link="griphis_1_pitch_1_link"/>
    <axis xyz="-0.0 -0.0 1.0"/>
    <limit effort="3" velocity="10"/>
  </joint>
  <link name="griphis_1_roll_1_link">
    <inertial>
      <origin rpy="0 0 0" xyz="0.0304847934275313 -0.000533683595524997 -0.000138763582684304"/>
      <mass value="0.0617238803473503"/>
      <inertia ixx="1.72112591146286E-05" ixy="-2.34655399562005E-07" ixz="1.72186999812855E-07" iyy="1.09105230206178E-05" iyz="3.90599560040266E-08" izz="1.62402505711448E-05"/>
    </inertial>
    <visual>
      <origin rpy="0.0 -1.5707963267948966 -1.5707963267948966" xyz="-0.00031819805152675406 0.000318198051528346 -0.0766999999999999"/>
      <geometry>
        <mesh filename="./../meshes/roll_1_link.STL"/>
      </geometry>
      <material name="">
        <color rgba="1 1 1 1"/>
      </material>
    </visual>
    <collision>
      <origin rpy="0.0 -1.5707963267948966 -1.5707963267948966" xyz="-0.00031819805152675406 0.000318198051528346 -0.0766999999999999"/>
      <geometry>
        <mesh filename="./../meshes/roll_1_link.STL"/>
      </geometry>
    </collision>
  </link>
  <joint name="griphis_1_roll_1" type="continuous">
    <origin rpy="0.0 -1.5707963267948966 -1.5707963267948966" xyz="-0.00031819805152675406 0.000318198051528346 -0.0766999999999999"/>
    <parent link="griphis_1_roll_1_link"/>
    <child link="griphis_1_yaw_1_link"/>
    <axis xyz="1.0 -0.0 -0.0"/>
    <limit effort="3" velocity="10"/>
  </joint>
  <link name="griphis_1_worm_1_link">
    <inertial>
      <origin rpy="0 0 0" xyz="0.00680389923417661 1.29536242400655E-05 5.52986221441856E-05"/>
      <mass value="0.00387257618784269"/>
      <inertia ixx="2.06264558567859E-07" ixy="1.13917098659222E-09" ixz="-8.28881114232565E-10" iyy="1.7113732321225E-07" iyz="4.18404893657738E-11" izz="1.71297030362022E-07"/>
    </inertial>
    <visual>
      <origin rpy="0 0 0" xyz="0 0 0"/>
      <geometry>
        <mesh filename="./../meshes/worm_1_link.STL"/>
      </geometry>
      <material name="">
        <color rgba="0.752941176470588 0.752941176470588 0.752941176470588 1"/>
      </material>
    </visual>
    <collision>
      <origin rpy="0 0 0" xyz="0 0 0"/>
      <geometry>
        <mesh filename="./../meshes/worm_1_link.STL"/>
      </geometry>
    </collision>
  </link>
  <joint name="griphis_1_worm_rotate_1" type="continuous">
    <origin rpy="-1.5707963267948963 -1.5707963267948966 0.0" xyz="-0.00031819805152675406 0.00031819805152833553 -0.02969999999999999"/>
    <parent link="griphis_1_roll_1_link"/>
    <child link="griphis_1_worm_1_link"/>
    <axis xyz="1 0 0"/>
    <limit effort="15" velocity="10"/>
  </joint>
  <link name="griphis_1_nail1_1_link">
    <inertial>
      <origin rpy="0 0 0" xyz="0.0375115559402243 -4.52381021421033E-05 0.000927613439051046"/>
      <mass value="0.00785451508753953"/>
      <inertia ixx="3.26792929870295E-07" ixy="2.23311778369799E-10" ixz="3.04391588566406E-07" iyy="1.76174668735888E-06" iyz="-8.7203716693621E-12" izz="1.60467609944965E-06"/>
    </inertial>
    <visual>
      <origin rpy="0 0 0" xyz="0 0 0"/>
      <geometry>
        <mesh filename="./../meshes/nail1_1_link.STL"/>
      </geometry>
      <material name="">
        <color rgba="1 1 1 1"/>
      </material>
    </visual>
    <collision>
      <origin rpy="0 0 0" xyz="0 0 0"/>
      <geometry>
        <mesh filename="./../meshes/nail1_1_link.STL"/>
      </geometry>
    </collision>
  </link>
  <joint name="griphis_1_nail1_rotate_1" type="continuous">
    <origin rpy="1.5707963267948433 -1.5707963267948966 0.0" xyz="-0.00031819805152675075 -0.014681801948467067 -0.019699999999999995"/>
    <parent link="griphis_1_roll_1_link"/>
    <child link="griphis_1_nail1_1_link"/>
    <axis xyz="0 -1 0"/>
    <mimic joint="griphis_1_worm_rotate_1" multiplier="0.091" offset="0"/>
  </joint>
  <link name="griphis_1_nail2_1_link">
    <inertial>
      <origin rpy="0 0 0" xyz="0.0375922338704431 -0.000920668174592305 -5.01249966510589E-05"/>
      <mass value="0.00783920613274618"/>
      <inertia ixx="3.26764420600123E-07" ixy="-3.04083796030301E-07" ixz="3.01596352148099E-10" iyy="1.60307023285989E-06" iyz="-3.50228545349602E-11" izz="1.7600802033745E-06"/>
    </inertial>
    <visual>
      <origin rpy="0 0 0" xyz="0 0 0"/>
      <geometry>
        <mesh filename="./../meshes/nail2_1_link.STL"/>
      </geometry>
      <material name="">
        <color rgba="0.752941176470588 0.752941176470588 0.752941176470588 1"/>
      </material>
    </visual>
    <collision>
      <origin rpy="0 0 0" xyz="0 0 0"/>
      <geometry>
        <mesh filename="./../meshes/nail2_1_link.STL"/>
      </geometry>
    </collision>
  </link>
  <joint name="griphis_1_nail2_rotate_1" type="continuous">
    <origin rpy="-1.5707963267948963 -1.5707963267948966 0.0" xyz="-0.015318198051535455 0.00031819805152833 -0.019699999999999995"/>
    <parent link="griphis_1_roll_1_link"/>
    <child link="griphis_1_nail2_1_link"/>
    <axis xyz="0 0 -1"/>
    <mimic joint="griphis_1_worm_rotate_1" multiplier="0.091" offset="0"/>
  </joint>
  <link name="griphis_1_nail3_1_link">
    <inertial>
      <origin rpy="0 0 0" xyz="0.0376633576375596 -4.50239708446043E-05 0.000912382199221681"/>
      <mass value="0.00782164323980883"/>
      <inertia ixx="3.26387568167113E-07" ixy="1.94469452026803E-10" ixz="3.03929104031752E-07" iyy="1.75640452707706E-06" iyz="-1.77166863072923E-11" izz="1.59916689354216E-06"/>
    </inertial>
    <visual>
      <origin rpy="0 0 0" xyz="0 0 0"/>
      <geometry>
        <mesh filename="./../meshes/nail3_1_link.STL"/>
      </geometry>
      <material name="">
        <color rgba="0.752941176470588 0.752941176470588 0.752941176470588 1"/>
      </material>
    </visual>
    <collision>
      <origin rpy="0 0 0" xyz="0 0 0"/>
      <geometry>
        <mesh filename="./../meshes/nail3_1_link.STL"/>
      </geometry>
    </collision>
  </link>
  <joint name="griphis_1_nail3_rotate_1" type="continuous">
    <origin rpy="-1.5707963267948963 -1.5707963267948966 0.0" xyz="-0.00031819805152675737 0.015318198051532934 -0.019700000000000092"/>
    <parent link="griphis_1_roll_1_link"/>
    <child link="griphis_1_nail3_1_link"/>
    <axis xyz="0 -1 0"/>
    <mimic joint="griphis_1_worm_rotate_1" multiplier="0.091" offset="0"/>
  </joint>
  <link name="griphis_1_nail4_1_link">
    <inertial>
      <origin rpy="0 0 0" xyz="0.0376199045292883 0.000916237603659741 4.27065705779009E-05"/>
      <mass value="0.00783130292561273"/>
      <inertia ixx="3.26490723468266E-07" ixy="3.0398859313737E-07" ixz="-4.37077734142467E-10" iyy="1.60061195688429E-06" iyz="2.94387193060157E-11" izz="1.75778452318195E-06"/>
    </inertial>
    <visual>
      <origin rpy="0 0 0" xyz="0 0 0"/>
      <geometry>
        <mesh filename="./../meshes/nail4_1_link.STL"/>
      </geometry>
      <material name="">
        <color rgba="0.752941176470588 0.752941176470588 0.752941176470588 1"/>
      </material>
    </visual>
    <collision>
      <origin rpy="0 0 0" xyz="0 0 0"/>
      <geometry>
        <mesh filename="./../meshes/nail4_1_link.STL"/>
      </geometry>
    </collision>
  </link>
  <joint name="griphis_1_nail4_rotate_1" type="continuous">
    <origin rpy="-1.5707963267948963 -1.5707963267948966 0.0" xyz="0.014681801948464546 0.00031819805152833667 -0.019699999999999995"/>
    <parent link="griphis_1_roll_1_link"/>
    <child link="griphis_1_nail4_1_link"/>
    <axis xyz="0 0 1"/>
    <mimic joint="griphis_1_worm_rotate_1" multiplier="0.091" offset="0"/>
  </joint>
  <link name="griphis_1_nail-cp1">
    <inertial>
      <origin rpy="0 0 0" xyz="-2.058274506931E-05 -0.000405813357968389 -0.0658092329631552"/>
      <mass value="0.0011585387013778"/>
      <inertia ixx="1.05682260080874E-07" ixy="-1.5764583148915E-09" ixz="-7.53303890952621E-11" iyy="1.05682260080874E-07" iyz="7.53303890952626E-11" izz="2.1081276337663E-07"/>
    </inertial>
    <visual>
      <origin rpy="0 0 0" xyz="0 0 0"/>
      <geometry>
        <mesh filename="./../meshes/nail-cp1.STL"/>
      </geometry>
      <material name="">
        <color rgba="1 1 1 1"/>
      </material>
    </visual>
    <collision>
      <origin rpy="0 0 0" xyz="0 0 0"/>
      <geometry>
        <mesh filename="./../meshes/nail-cp1.STL"/>
      </geometry>
    </collision>
  </link>
  <joint name="griphis_1_nail-cp1" type="fixed">
    <origin rpy="6.4948046940571666e-15 3.774758283725532e-15 -3.141592653589793" xyz="-0.000636396103034807 0.00020999999999474846 0.0650000000000001"/>
    <parent link="griphis_1_roll_1_link"/>
    <child link="griphis_1_nail-cp1"/>
    <axis xyz="0 0 0"/>
  </joint>
  <link name="griphis_1_gripper-cp1">
    <inertial>
      <origin rpy="0 0 0" xyz="-0.000249014516100668 -0.00102239026541428 -0.0133818116212472"/>
      <mass value="0.0105278029927928"/>
      <inertia ixx="2.49426973639437E-06" ixy="-4.53009756265879E-08" ixz="6.75736959711176E-08" iyy="2.70040122944883E-06" iyz="-2.88247256637324E-07" izz="2.67368335360225E-06"/>
    </inertial>
    <visual>
      <origin rpy="0 0 0" xyz="0 0 0"/>
      <geometry>
        <mesh filename="./../meshes/gripper-cp1.STL"/>
      </geometry>
      <material name="">
        <color rgba="1 1 1 1"/>
      </material>
    </visual>
    <collision>
      <origin rpy="0 0 0" xyz="0 0 0"/>
      <geometry>
        <mesh filename="./../meshes/gripper-cp1.STL"/>
      </geometry>
    </collision>
  </link>
  <joint name="griphis_1_gripper-cp1" type="fixed">
    <origin rpy="0 0 0" xyz="0 0 0"/>
    <parent link="griphis_1_gripper-cp1"/>
    <child link="griphis_1_roll_1_link"/>
    <axis xyz="-0.0 -0.0 -0.0"/>
  </joint>
  <link name="griphis_1_nailring1-cp1">
    <inertial>
      <origin rpy="0 0 0" xyz="0.000495209639942942 -2.15213012098869E-07 -0.00500225533856013"/>
      <mass value="0.00888435164177016"/>
      <inertia ixx="1.85848970375133E-06" ixy="4.08320407087235E-11" ixz="9.14133574374128E-10" iyy="1.88948158451332E-06" iyz="-1.8157617423749E-12" izz="3.47494887160992E-06"/>
    </inertial>
    <visual>
      <origin rpy="0 0 0" xyz="0 0 0"/>
      <geometry>
        <mesh filename="./../meshes/nailring1-cp1.STL"/>
      </geometry>
      <material name="">
        <color rgba="1 1 1 1"/>
      </material>
    </visual>
    <collision>
      <origin rpy="0 0 0" xyz="0 0 0"/>
      <geometry>
        <mesh filename="./../meshes/nailring1-cp1.STL"/>
      </geometry>
    </collision>
  </link>
  <joint name="griphis_1_nailring1-cp1" type="fixed">
    <origin rpy="1.5707963267948433 -1.5707963267948966 0.0" xyz="-0.0003181980515267614 0.033318198051532834 -0.048100053496672186"/>
    <parent link="griphis_1_roll_1_link"/>
    <child link="griphis_1_nailring1-cp1"/>
    <axis xyz="0 0 0"/>
  </joint>
  <link name="griphis_1_nailring1-cp2">
    <inertial>
      <origin rpy="0 0 0" xyz="0.000495209639943192 -2.15213011856008E-07 -0.00500225533855998"/>
      <mass value="0.00888435164177017"/>
      <inertia ixx="1.85848970375133E-06" ixy="4.08320407083519E-11" ixz="9.1413357437371E-10" iyy="1.88948158451332E-06" iyz="-1.81576174254404E-12" izz="3.47494887160992E-06"/>
    </inertial>
    <visual>
      <origin rpy="0 0 0" xyz="0 0 0"/>
      <geometry>
        <mesh filename="./../meshes/nailring1-cp2.STL"/>
      </geometry>
      <material name="">
        <color rgba="1 1 1 1"/>
      </material>
    </visual>
    <collision>
      <origin rpy="0 0 0" xyz="0 0 0"/>
      <geometry>
        <mesh filename="./../meshes/nailring1-cp2.STL"/>
      </geometry>
    </collision>
  </link>
  <joint name="griphis_1_nailring1-cp2" type="fixed">
    <origin rpy="-5.645484080218921e-14 -1.5707963057214722 0.0" xyz="0.03268180194846475 0.00031819805152834697 -0.048100053496672394"/>
    <parent link="griphis_1_roll_1_link"/>
    <child link="griphis_1_nailring1-cp2"/>
    <axis xyz="0 0 0"/>
  </joint>
  <link name="griphis_1_nailring1-cp3">
    <inertial>
      <origin rpy="0 0 0" xyz="-0.000495209639943185 2.1521301184213E-07 -0.00500225533856018"/>
      <mass value="0.00888435164177015"/>
      <inertia ixx="1.85848970375133E-06" ixy="4.08320407089207E-11" ixz="-9.14133574373382E-10" iyy="1.88948158451332E-06" iyz="1.81576174213503E-12" izz="3.47494887160991E-06"/>
    </inertial>
    <visual>
      <origin rpy="0 0 0" xyz="0 0 0"/>
      <geometry>
        <mesh filename="./../meshes/nailring1-cp3.STL"/>
      </geometry>
      <material name="">
        <color rgba="1 1 1 1"/>
      </material>
    </visual>
    <collision>
      <origin rpy="0 0 0" xyz="0 0 0"/>
      <geometry>
        <mesh filename="./../meshes/nailring1-cp3.STL"/>
      </geometry>
    </collision>
  </link>
  <joint name="griphis_1_nailring1-cp3" type="fixed">
    <origin rpy="-1.5707963267948963 -1.5707963267948966 0.0" xyz="-0.00031819805152674674 -0.03268180194846797 -0.0482999465033276"/>
    <parent link="griphis_1_roll_1_link"/>
    <child link="griphis_1_nailring1-cp3"/>
    <axis xyz="0 0 0"/>
  </joint>
  <link name="griphis_1_nailring1-cp4">
    <inertial>
      <origin rpy="0 0 0" xyz="-0.000495209639943033 2.15213012022542E-07 -0.00500225533856014"/>
      <mass value="0.00888435164177017"/>
      <inertia ixx="1.85848970375133E-06" ixy="4.08320407090649E-11" ixz="-9.14133574373576E-10" iyy="1.88948158451332E-06" iyz="1.81576174274984E-12" izz="3.47494887160992E-06"/>
    </inertial>
    <visual>
      <origin rpy="0 0 0" xyz="0 0 0"/>
      <geometry>
        <mesh filename="./../meshes/nailring1-cp4.STL"/>
      </geometry>
      <material name="">
        <color rgba="1 1 1 1"/>
      </material>
    </visual>
    <collision>
      <origin rpy="0 0 0" xyz="0 0 0"/>
      <geometry>
        <mesh filename="./../meshes/nailring1-cp4.STL"/>
      </geometry>
    </collision>
  </link>
  <joint name="griphis_1_nailring1-cp4" type="fixed">
    <origin rpy="3.14159265358973 -1.5707963057214722 0.0" xyz="-0.03331819805153535 0.00031819805152833233 -0.048099946503327794"/>
    <parent link="griphis_1_roll_1_link"/>
    <child link="griphis_1_nailring1-cp4"/>
    <axis xyz="0 0 0"/>
  </joint>
  <link name="griphis_1_mid_pitch_2_link">
    <inertial>
      <origin rpy="0 0 0" xyz="-0.0327473641033502 -0.0322605669359661 0.000309352298986196"/>
      <mass value="0.0769502016363242"/>
      <inertia ixx="1.72130959551283E-05" ixy="1.01485711646082E-08" ixz="9.64338520342348E-08" iyy="1.36643051799986E-05" iyz="-5.60812725052765E-07" izz="1.63206675803235E-05"/>
    </inertial>
    <visual>
      <origin rpy="0 0 0" xyz="0 0 0"/>
      <geometry>
        <mesh filename="./../meshes/mid_pitch_2_link.STL"/>
      </geometry>
      <material name="">
        <color rgba="0.752941176470588 0.752941176470588 0.752941176470588 1"/>
      </material>
    </visual>
    <collision>
      <origin rpy="0 0 0" xyz="0 0 0"/>
      <geometry>
        <mesh filename="./../meshes/mid_pitch_2_link.STL"/>
      </geometry>
    </collision>
  </link>
  <joint name="griphis_1_mid_pitch_2" type="continuous">
    <origin rpy="0.0 0.0 0.0" xyz="-0.029900000000000003 0.0352000000000001 0.0002100000000035008"/>
    <parent link="griphis_1_base_link"/>
    <child link="griphis_1_mid_pitch_2_link"/>
    <axis xyz="0 -1 0"/>
    <limit effort="3" velocity="10"/>
    <mimic joint="griphis_1_mid_pitch_1" multiplier="1" offset="0"/>
  </joint>
  <link name="griphis_1_pitch_2_link">
    <inertial>
      <origin rpy="0 0 0" xyz="-0.0191893034316743 0.0172315960705706 -0.00342856576323701"/>
      <mass value="0.0105178263834885"/>
      <inertia ixx="5.84801171286379E-07" ixy="3.57321505353334E-09" ixz="-8.81524447786701E-08" iyy="1.04603360596441E-06" iyz="1.51990880905164E-13" izz="9.82964870358905E-07"/>
    </inertial>
    <visual>
      <origin rpy="0 0 0" xyz="0 0 0"/>
      <geometry>
        <mesh filename="./../meshes/pitch_2_link.STL"/>
      </geometry>
      <material name="">
        <color rgba="0.298039215686275 0.298039215686275 0.298039215686275 1"/>
      </material>
    </visual>
    <collision>
      <origin rpy="0 0 0" xyz="0 0 0"/>
      <geometry>
        <mesh filename="./../meshes/pitch_2_link.STL"/>
      </geometry>
    </collision>
  </link>
  <joint name="griphis_1_pitch_2" type="continuous">
    <origin rpy="0 0 0" xyz="-0.0640000000000067 -0.0350999999999972 0"/>
    <parent link="griphis_1_mid_pitch_2_link"/>
    <child link="griphis_1_pitch_2_link"/>
    <axis xyz="0 1 0"/>
    <limit effort="3" velocity="10"/>
  </joint>
  <link name="griphis_1_yaw_2_link">
    <inertial>
      <origin rpy="0 0 0" xyz="-0.00934924449476787 -1.20738749553873E-09 -0.00656570463247875"/>
      <mass value="0.0544536529144548"/>
      <inertia ixx="6.1608306877813E-06" ixy="-1.48630786812854E-08" ixz="-3.66333645918454E-08" iyy="7.36783210634451E-06" iyz="1.48635489875795E-08" izz="7.24407314817233E-06"/>
    </inertial>
    <visual>
      <origin rpy="0 0 0" xyz="0 0 0"/>
      <geometry>
        <mesh filename="./../meshes/yaw_2_link.STL"/>
      </geometry>
      <material name="">
        <color rgba="0.180392156862745 0.180392156862745 0.180392156862745 1"/>
      </material>
    </visual>
    <collision>
      <origin rpy="0 0 0" xyz="0 0 0"/>
      <geometry>
        <mesh filename="./../meshes/yaw_2_link.STL"/>
      </geometry>
    </collision>
  </link>
  <joint name="griphis_1_yaw_2" type="continuous">
    <origin rpy="0 0 0" xyz="-0.0419999999999942 0.0175000000000631 0.0174999999999867"/>
    <parent link="griphis_1_pitch_2_link"/>
    <child link="griphis_1_yaw_2_link"/>
    <axis xyz="0 0 -1"/>
    <limit effort="3" velocity="10"/>
  </joint>
  <link name="griphis_1_roll_2_link">
    <inertial>
      <origin rpy="0 0 0" xyz="-0.0304847934275298 0.000533683595516123 -0.000138763582688578"/>
      <mass value="0.0617238803473503"/>
      <inertia ixx="1.72112591146286E-05" ixy="-2.34655399562003E-07" ixz="-1.72186999812873E-07" iyy="1.09105230206178E-05" iyz="-3.90599560037894E-08" izz="1.62402505711448E-05"/>
    </inertial>
    <visual>
      <origin rpy="0 0 0" xyz="0 0 0"/>
      <geometry>
        <mesh filename="./../meshes/roll_2_link.STL"/>
      </geometry>
      <material name="">
        <color rgba="1 1 1 1"/>
      </material>
    </visual>
    <collision>
      <origin rpy="0 0 0" xyz="0 0 0"/>
      <geometry>
        <mesh filename="./../meshes/roll_2_link.STL"/>
      </geometry>
    </collision>
  </link>
  <joint name="griphis_1_roll_2" type="continuous">
    <origin rpy="0 0 0" xyz="-0.0280000000000042 0 -0.0175000000000007"/>
    <parent link="griphis_1_yaw_2_link"/>
    <child link="griphis_1_roll_2_link"/>
    <axis xyz="-1 0 0"/>
    <limit effort="3" velocity="10"/>
  </joint>
  <link name="griphis_1_worm_2_link">
    <inertial>
      <origin rpy="0 0 0" xyz="-0.00680389920380498 5.66707617536341E-05 3.76180533663562E-06"/>
      <mass value="0.00387257616321651"/>
      <inertia ixx="2.0626455720602E-07" ixy="6.3200237698076E-10" ixz="-1.25909856906162E-09" iyy="1.713062458146E-07" iyz="1.39152999506885E-11" izz="1.71128105557195E-07"/>
    </inertial>
    <visual>
      <origin rpy="0 0 0" xyz="0 0 0"/>
      <geometry>
        <mesh filename="./../meshes/worm_2_link.STL"/>
      </geometry>
      <material name="">
        <color rgba="0.752941176470588 0.752941176470588 0.752941176470588 1"/>
      </material>
    </visual>
    <collision>
      <origin rpy="0 0 0" xyz="0 0 0"/>
      <geometry>
        <mesh filename="./../meshes/worm_2_link.STL"/>
      </geometry>
    </collision>
  </link>
  <joint name="griphis_1_worm_rotate_2" type="continuous">
    <origin rpy="0 0 0" xyz="-0.0470000000000015 0 0"/>
    <parent link="griphis_1_roll_2_link"/>
    <child link="griphis_1_worm_2_link"/>
    <axis xyz="0.737216674660088 0 0.675656402769279"/>
    <limit effort="15" velocity="10"/>
  </joint>
  <link name="griphis_1_nail1_2_link">
    <inertial>
      <origin rpy="0 0 0" xyz="-0.0375115559402153 0.000154761897861344 -0.000927613439127735"/>
      <mass value="0.00785451508753956"/>
      <inertia ixx="3.26792929870324E-07" ixy="-2.23311778394515E-10" ixz="3.04391588566463E-07" iyy="1.76174668735889E-06" iyz="8.72037168507631E-12" izz="1.60467609944963E-06"/>
    </inertial>
    <visual>
      <origin rpy="0 0 0" xyz="0 0 0"/>
      <geometry>
        <mesh filename="./../meshes/nail1_2_link.STL"/>
      </geometry>
      <material name="">
        <color rgba="1 1 1 1"/>
      </material>
    </visual>
    <collision>
      <origin rpy="0 0 0" xyz="0 0 0"/>
      <geometry>
        <mesh filename="./../meshes/nail1_2_link.STL"/>
      </geometry>
    </collision>
  </link>
  <joint name="griphis_1_nail1_rotate_2" type="continuous">
    <origin rpy="0 0 0" xyz="-0.0570000000000014 0 -0.0149999999999872"/>
    <parent link="griphis_1_roll_2_link"/>
    <child link="griphis_1_nail1_2_link"/>
    <axis xyz="0 -1 0"/>
    <mimic joint="griphis_1_worm_rotate_2" multiplier="0.091" offset="0"/>
  </joint>
  <link name="griphis_1_nail2_2_link">
    <inertial>
      <origin rpy="0 0 0" xyz="-0.0375922338704413 0.000920668174601659 0.000149875003347476"/>
      <mass value="0.00783920613274653"/>
      <inertia ixx="3.26764420600132E-07" ixy="-3.0408379603033E-07" ixz="-3.01596352109658E-10" iyy="1.60307023286001E-06" iyz="3.50228545423785E-11" izz="1.76008020337463E-06"/>
    </inertial>
    <visual>
      <origin rpy="0 0 0" xyz="0 0 0"/>
      <geometry>
        <mesh filename="./../meshes/nail2_2_link.STL"/>
      </geometry>
      <material name="">
        <color rgba="0.752941176470588 0.752941176470588 0.752941176470588 1"/>
      </material>
    </visual>
    <collision>
      <origin rpy="0 0 0" xyz="0 0 0"/>
      <geometry>
        <mesh filename="./../meshes/nail2_2_link.STL"/>
      </geometry>
    </collision>
  </link>
  <joint name="griphis_1_nail2_rotate_2" type="continuous">
    <origin rpy="0 0 0" xyz="-0.0570000000000009 0.015 0"/>
    <parent link="griphis_1_roll_2_link"/>
    <child link="griphis_1_nail2_2_link"/>
    <axis xyz="0 0 -1"/>
    <mimic joint="griphis_1_worm_rotate_2" multiplier="0.091" offset="0"/>
  </joint>
  <link name="griphis_1_nail3_2_link">
    <inertial>
      <origin rpy="0 0 0" xyz="-0.0376633576375554 4.50239708458949E-05 0.000912382199144402"/>
      <mass value="0.00782164323980893"/>
      <inertia ixx="3.26387568167086E-07" ixy="1.94469452048084E-10" ixz="-3.03929104031706E-07" iyy="1.75640452707709E-06" iyz="1.77166863189614E-11" izz="1.59916689354222E-06"/>
    </inertial>
    <visual>
      <origin rpy="0 0 0" xyz="0 0 0"/>
      <geometry>
        <mesh filename="./../meshes/nail3_2_link.STL"/>
      </geometry>
      <material name="">
        <color rgba="0.752941176470588 0.752941176470588 0.752941176470588 1"/>
      </material>
    </visual>
    <collision>
      <origin rpy="0 0 0" xyz="0 0 0"/>
      <geometry>
        <mesh filename="./../meshes/nail3_2_link.STL"/>
      </geometry>
    </collision>
  </link>
  <joint name="griphis_1_nail3_rotate_2" type="continuous">
    <origin rpy="0 0 0" xyz="-0.0570000000000004 0 0.0150000000000128"/>
    <parent link="griphis_1_roll_2_link"/>
    <child link="griphis_1_nail3_2_link"/>
    <axis xyz="0 1 0"/>
    <mimic joint="griphis_1_worm_rotate_2" multiplier="0.091" offset="0"/>
  </joint>
  <link name="griphis_1_nail4_2_link">
    <inertial>
      <origin rpy="0 0 0" xyz="-0.0376199045292857 -0.000916237603655147 -0.000157293429422369"/>
      <mass value="0.00783130292561298"/>
      <inertia ixx="3.26490723468276E-07" ixy="3.03988593137378E-07" ixz="4.37077734057104E-10" iyy="1.60061195688436E-06" iyz="-2.94387192594929E-11" izz="1.75778452318202E-06"/>
    </inertial>
    <visual>
      <origin rpy="0 0 0" xyz="0 0 0"/>
      <geometry>
        <mesh filename="./../meshes/nail4_2_link.STL"/>
      </geometry>
      <material name="">
        <color rgba="0.752941176470588 0.752941176470588 0.752941176470588 1"/>
      </material>
    </visual>
    <collision>
      <origin rpy="0 0 0" xyz="0 0 0"/>
      <geometry>
        <mesh filename="./../meshes/nail4_2_link.STL"/>
      </geometry>
    </collision>
  </link>
  <joint name="griphis_1_nail4_rotate_2" type="continuous">
    <origin rpy="0 0 0" xyz="-0.0570000000000017 -0.0149999999999955 0"/>
    <parent link="griphis_1_roll_2_link"/>
    <child link="griphis_1_nail4_2_link"/>
    <axis xyz="0 0 1"/>
    <mimic joint="griphis_1_worm_rotate_2" multiplier="0.091" offset="0"/>
  </joint>
  <link name="griphis_1_nail-cp2">
    <inertial>
      <origin rpy="0 0 0" xyz="0.000615813357965365 -0.00061581335794697 -0.0658092329631574"/>
      <mass value="0.00115853870137781"/>
      <inertia ixx="1.05682260080874E-07" ixy="-1.5764583148907E-09" ixz="-7.53303890952508E-11" iyy="1.05682260080874E-07" iyz="7.53303890920378E-11" izz="2.10812763376632E-07"/>
    </inertial>
    <visual>
      <origin rpy="0 0 0" xyz="0 0 0"/>
      <geometry>
        <mesh filename="./../meshes/nail-cp2.STL"/>
      </geometry>
      <material name="">
        <color rgba="0.796078431372549 0.823529411764706 0.937254901960784 1"/>
      </material>
    </visual>
    <collision>
      <origin rpy="0 0 0" xyz="0 0 0"/>
      <geometry>
        <mesh filename="./../meshes/nail-cp2.STL"/>
      </geometry>
    </collision>
  </link>
  <joint name="griphis_1_nail-cp2" type="fixed">
    <origin rpy="-1.5707963267949 0 1.5707963267949" xyz="-0.141700000000001 -0.000318198051535531 -0.00031819805151536"/>
    <parent link="griphis_1_roll_2_link"/>
    <child link="griphis_1_nail-cp2"/>
    <axis xyz="0 0 0"/>
  </joint>
  <link name="griphis_1_gripper-cp2">
    <inertial>
      <origin rpy="0 0 0" xyz="0.000249014516096963 -0.00102239026539895 0.0133818116212488"/>
      <mass value="0.0105278029927927"/>
      <inertia ixx="2.49426973639434E-06" ixy="4.53009756265701E-08" ixz="6.75736959710746E-08" iyy="2.70040122944888E-06" iyz="2.88247256637327E-07" izz="2.67368335360219E-06"/>
    </inertial>
    <visual>
      <origin rpy="0 0 0" xyz="0 0 0"/>
      <geometry>
        <mesh filename="./../meshes/gripper-cp2.STL"/>
      </geometry>
      <material name="">
        <color rgba="1 1 1 1"/>
      </material>
    </visual>
    <collision>
      <origin rpy="0 0 0" xyz="0 0 0"/>
      <geometry>
        <mesh filename="./../meshes/gripper-cp2.STL"/>
      </geometry>
    </collision>
  </link>
  <joint name="griphis_1_gripper-cp2" type="fixed">
    <origin rpy="-1.57079632679485 0 -1.57079632679489" xyz="-0.0766999999999999 -0.000318198051539618 -0.000318198051517046"/>
    <parent link="griphis_1_roll_2_link"/>
    <child link="griphis_1_gripper-cp2"/>
    <axis xyz="0 0 0"/>
  </joint>
  <link name="griphis_1_nailring2-cp1">
    <inertial>
      <origin rpy="0 0 0" xyz="0.000495209639943872 -2.15213011231508E-07 -0.0050022553385601"/>
      <mass value="0.00888435164177013"/>
      <inertia ixx="1.85848970375132E-06" ixy="4.08320407075244E-11" ixz="9.14133574374455E-10" iyy="1.88948158451332E-06" iyz="-1.81576174187697E-12" izz="3.47494887160991E-06"/>
    </inertial>
    <visual>
      <origin rpy="0 0 0" xyz="0 0 0"/>
      <geometry>
        <mesh filename="./../meshes/nailring2-cp1.STL"/>
      </geometry>
      <material name="">
        <color rgba="1 1 1 1"/>
      </material>
    </visual>
    <collision>
      <origin rpy="0 0 0" xyz="0 0 0"/>
      <geometry>
        <mesh filename="./../meshes/nailring2-cp1.STL"/>
      </geometry>
    </collision>
  </link>
  <joint name="griphis_1_nailring2-cp1" type="fixed">
    <origin rpy="3.14159265358978 0 -3.14159238847494" xyz="-0.0285999465033246 0 0.0330000000000001"/>
    <parent link="griphis_1_roll_2_link"/>
    <child link="griphis_1_nailring2-cp1"/>
    <axis xyz="0 0 0"/>
  </joint>
  <link name="griphis_1_nailring2-cp2">
    <inertial>
      <origin rpy="0 0 0" xyz="0.000495209639942984 -2.15213012050297E-07 -0.00500225533856015"/>
      <mass value="0.00888435164177019"/>
      <inertia ixx="1.85848970375134E-06" ixy="4.08320407074391E-11" ixz="9.14133574373919E-10" iyy="1.88948158451332E-06" iyz="-1.81576174216739E-12" izz="3.47494887160993E-06"/>
    </inertial>
    <visual>
      <origin rpy="0 0 0" xyz="0 0 0"/>
      <geometry>
        <mesh filename="./../meshes/nailring2-cp2.STL"/>
      </geometry>
      <material name="">
        <color rgba="1 1 1 1"/>
      </material>
    </visual>
    <collision>
      <origin rpy="0 0 0" xyz="0 0 0"/>
      <geometry>
        <mesh filename="./../meshes/nailring2-cp2.STL"/>
      </geometry>
    </collision>
  </link>
  <joint name="griphis_1_nailring2-cp2" type="fixed">
    <origin rpy="1.57079632679488 0 3.14159265358979" xyz="-0.0285999465033264 -0.0330000000000002 0"/>
    <parent link="griphis_1_roll_2_link"/>
    <child link="griphis_1_nailring2-cp2"/>
    <axis xyz="0 0 0"/>
  </joint>
  <link name="griphis_1_nailring2-cp3">
    <inertial>
      <origin rpy="0 0 0" xyz="-0.000495209639942817 2.15213012078053E-07 -0.00500225533856008"/>
      <mass value="0.00888435164177013"/>
      <inertia ixx="1.85848970375132E-06" ixy="4.08320407098813E-11" ixz="-9.14133574373917E-10" iyy="1.88948158451331E-06" iyz="1.81576173997682E-12" izz="3.4749488716099E-06"/>
    </inertial>
    <visual>
      <origin rpy="0 0 0" xyz="0 0 0"/>
      <geometry>
        <mesh filename="./../meshes/nailring2-cp3.STL"/>
      </geometry>
      <material name="">
        <color rgba="1 1 1 1"/>
      </material>
    </visual>
    <collision>
      <origin rpy="0 0 0" xyz="0 0 0"/>
      <geometry>
        <mesh filename="./../meshes/nailring2-cp3.STL"/>
      </geometry>
    </collision>
  </link>
  <joint name="griphis_1_nailring2-cp3" type="fixed">
    <origin rpy="0 0 3.14159238847493" xyz="-0.0284000534966716 0 -0.0330000000000008"/>
    <parent link="griphis_1_roll_2_link"/>
    <child link="griphis_1_nailring2-cp3"/>
    <axis xyz="0 0 0"/>
  </joint>
  <link name="griphis_1_nailring2-cp4">
    <inertial>
      <origin rpy="0 0 0" xyz="-0.000495209639943039 2.15213012015603E-07 -0.00500225533856"/>
      <mass value="0.00888435164177014"/>
      <inertia ixx="1.85848970375133E-06" ixy="4.08320407107192E-11" ixz="-9.14133574373996E-10" iyy="1.88948158451331E-06" iyz="1.81576174170535E-12" izz="3.47494887160991E-06"/>
    </inertial>
    <visual>
      <origin rpy="0 0 0" xyz="0 0 0"/>
      <geometry>
        <mesh filename="./../meshes/nailring2-cp4.STL"/>
      </geometry>
      <material name="">
        <color rgba="1 1 1 1"/>
      </material>
    </visual>
    <collision>
      <origin rpy="0 0 0" xyz="0 0 0"/>
      <geometry>
        <mesh filename="./../meshes/nailring2-cp4.STL"/>
      </geometry>
    </collision>
  </link>
  <joint name="griphis_1_nailring2-cp4" type="fixed">
    <origin rpy="-1.57079632679492 0 3.14159265358979" xyz="-0.0286000534966706 0.0329999999999998 0"/>
    <parent link="griphis_1_roll_2_link"/>
    <child link="griphis_1_nailring2-cp4"/>
    <axis xyz="0 0 0"/>
  </joint>
  <joint name="griphis_2_gripper-cp1_to_griphis_0_nailring1-cp4_joint" type="fixed">
    <parent link="griphis_0_nailring1-cp4"/>
    <child link="griphis_2_gripper-cp1"/>
    <origin rpy="0 0 3.14" xyz="0 0 -0.07"/>
  </joint>
  <link name="griphis_2_base_link">
    <inertial>
      <origin rpy="0 0 0" xyz="-0.00010264257406678 3.31727350517397E-05 -0.00495518296571391"/>
      <mass value="0.0797462541060097"/>
      <inertia ixx="8.57012114371153E-06" ixy="1.08293491537705E-08" ixz="-5.94275788505759E-09" iyy="1.05158543807875E-05" iyz="1.10583333432373E-08" izz="1.08869595154247E-05"/>
    </inertial>
    <visual>
      <origin rpy="0.0 -0.0 0.0" xyz="-0.0148999999999995 0.0176000000000318 0.0109999999999849"/>
      <geometry>
        <mesh filename="./../meshes/base_link.STL"/>
      </geometry>
      <material name="">
        <color rgba="0.752941176470588 0.752941176470588 0.752941176470588 1"/>
      </material>
    </visual>
    <collision>
      <origin rpy="0.0 -0.0 0.0" xyz="-0.0148999999999995 0.0176000000000318 0.0109999999999849"/>
      <geometry>
        <mesh filename="./../meshes/base_link.STL"/>
      </geometry>
    </collision>
  </link>
  <link name="griphis_2_mid_pitch_1_link">
    <inertial>
      <origin rpy="0 0 0" xyz="0.0327517154872403 0.0322634011493343 0.000309410745622088"/>
      <mass value="0.0769353285466722"/>
      <inertia ixx="1.72122749770761E-05" ixy="1.01496940835006E-08" ixz="-9.64331189423188E-08" iyy="1.36641198773196E-05" iyz="5.60814889063421E-07" izz="1.63211688368785E-05"/>
    </inertial>
    <visual>
      <origin rpy="0.0 -0.0 0.0" xyz="-0.0640000000000069 -0.0350999999999983 -0.0"/>
      <geometry>
        <mesh filename="./../meshes/mid_pitch_1_link.STL"/>
      </geometry>
      <material name="">
        <color rgba="0.752941176470588 0.752941176470588 0.752941176470588 1"/>
      </material>
    </visual>
    <collision>
      <origin rpy="0.0 -0.0 0.0" xyz="-0.0640000000000069 -0.0350999999999983 -0.0"/>
      <geometry>
        <mesh filename="./../meshes/mid_pitch_1_link.STL"/>
      </geometry>
    </collision>
  </link>
  <joint name="griphis_2_mid_pitch_1" type="continuous">
    <origin rpy="0.0 -0.0 0.0" xyz="-0.0640000000000069 -0.0350999999999983 -0.0"/>
    <parent link="griphis_2_mid_pitch_1_link"/>
    <child link="griphis_2_base_link"/>
    <axis xyz="-0.0 -1.0 -0.0"/>
    <limit effort="3" velocity="10"/>
  </joint>
  <link name="griphis_2_pitch_1_link">
    <inertial>
      <origin rpy="0 0 0" xyz="0.0191893034316777 -0.017231596070573 -0.00342856576321433"/>
      <mass value="0.0105178263834885"/>
      <inertia ixx="5.84801171286377E-07" ixy="3.57321505354626E-09" ixz="8.8152444778668E-08" iyy="1.04603360596441E-06" iyz="-1.51990885783075E-13" izz="9.82964870358909E-07"/>
    </inertial>
    <visual>
      <origin rpy="0.0 -0.0 0.0" xyz="-0.0420000000000015 0.0175000000000007 -0.0174999999999981"/>
      <geometry>
        <mesh filename="./../meshes/pitch_1_link.STL"/>
      </geometry>
      <material name="">
        <color rgba="0.298039215686275 0.298039215686275 0.298039215686275 1"/>
      </material>
    </visual>
    <collision>
      <origin rpy="0.0 -0.0 0.0" xyz="-0.0420000000000015 0.0175000000000007 -0.0174999999999981"/>
      <geometry>
        <mesh filename="./../meshes/pitch_1_link.STL"/>
      </geometry>
    </collision>
  </link>
  <joint name="griphis_2_pitch_1" type="continuous">
    <origin rpy="0.0 -0.0 0.0" xyz="-0.0420000000000015 0.0175000000000007 -0.0174999999999981"/>
    <parent link="griphis_2_pitch_1_link"/>
    <child link="griphis_2_mid_pitch_1_link"/>
    <axis xyz="-0.0 -1.0 -0.0"/>
    <limit effort="3" velocity="10"/>
  </joint>
  <link name="griphis_2_yaw_1_link">
    <inertial>
      <origin rpy="0 0 0" xyz="0.00934924439107056 -1.17000596711048E-10 -0.0065657034112081"/>
      <mass value="0.0544535701857151"/>
      <inertia ixx="6.16082295678474E-06" ixy="-1.48642619322733E-08" ixz="3.66332313625793E-08" iyy="7.36782974228272E-06" iyz="-1.48634431569832E-08" izz="7.24406343523596E-06"/>
    </inertial>
    <visual>
      <origin rpy="0.0 -0.0 0.0" xyz="-0.0279999999999981 -0.0 0.0175000000000002"/>
      <geometry>
        <mesh filename="./../meshes/yaw_1_link.STL"/>
      </geometry>
      <material name="">
        <color rgba="0.180392156862745 0.180392156862745 0.180392156862745 1"/>
      </material>
    </visual>
    <collision>
      <origin rpy="0.0 -0.0 0.0" xyz="-0.0279999999999981 -0.0 0.0175000000000002"/>
      <geometry>
        <mesh filename="./../meshes/yaw_1_link.STL"/>
      </geometry>
    </collision>
  </link>
  <joint name="griphis_2_yaw_1" type="continuous">
    <origin rpy="0.0 -0.0 0.0" xyz="-0.0279999999999981 -0.0 0.0175000000000002"/>
    <parent link="griphis_2_yaw_1_link"/>
    <child link="griphis_2_pitch_1_link"/>
    <axis xyz="-0.0 -0.0 1.0"/>
    <limit effort="3" velocity="10"/>
  </joint>
  <link name="griphis_2_roll_1_link">
    <inertial>
      <origin rpy="0 0 0" xyz="0.0304847934275313 -0.000533683595524997 -0.000138763582684304"/>
      <mass value="0.0617238803473503"/>
      <inertia ixx="1.72112591146286E-05" ixy="-2.34655399562005E-07" ixz="1.72186999812855E-07" iyy="1.09105230206178E-05" iyz="3.90599560040266E-08" izz="1.62402505711448E-05"/>
    </inertial>
    <visual>
      <origin rpy="0.0 -1.5707963267948966 -1.5707963267948966" xyz="-0.00031819805152675406 0.000318198051528346 -0.0766999999999999"/>
      <geometry>
        <mesh filename="./../meshes/roll_1_link.STL"/>
      </geometry>
      <material name="">
        <color rgba="1 1 1 1"/>
      </material>
    </visual>
    <collision>
      <origin rpy="0.0 -1.5707963267948966 -1.5707963267948966" xyz="-0.00031819805152675406 0.000318198051528346 -0.0766999999999999"/>
      <geometry>
        <mesh filename="./../meshes/roll_1_link.STL"/>
      </geometry>
    </collision>
  </link>
  <joint name="griphis_2_roll_1" type="continuous">
    <origin rpy="0.0 -1.5707963267948966 -1.5707963267948966" xyz="-0.00031819805152675406 0.000318198051528346 -0.0766999999999999"/>
    <parent link="griphis_2_roll_1_link"/>
    <child link="griphis_2_yaw_1_link"/>
    <axis xyz="1.0 -0.0 -0.0"/>
    <limit effort="3" velocity="10"/>
  </joint>
  <link name="griphis_2_worm_1_link">
    <inertial>
      <origin rpy="0 0 0" xyz="0.00680389923417661 1.29536242400655E-05 5.52986221441856E-05"/>
      <mass value="0.00387257618784269"/>
      <inertia ixx="2.06264558567859E-07" ixy="1.13917098659222E-09" ixz="-8.28881114232565E-10" iyy="1.7113732321225E-07" iyz="4.18404893657738E-11" izz="1.71297030362022E-07"/>
    </inertial>
    <visual>
      <origin rpy="0 0 0" xyz="0 0 0"/>
      <geometry>
        <mesh filename="./../meshes/worm_1_link.STL"/>
      </geometry>
      <material name="">
        <color rgba="0.752941176470588 0.752941176470588 0.752941176470588 1"/>
      </material>
    </visual>
    <collision>
      <origin rpy="0 0 0" xyz="0 0 0"/>
      <geometry>
        <mesh filename="./../meshes/worm_1_link.STL"/>
      </geometry>
    </collision>
  </link>
  <joint name="griphis_2_worm_rotate_1" type="continuous">
    <origin rpy="-1.5707963267948963 -1.5707963267948966 0.0" xyz="-0.00031819805152675406 0.00031819805152833553 -0.02969999999999999"/>
    <parent link="griphis_2_roll_1_link"/>
    <child link="griphis_2_worm_1_link"/>
    <axis xyz="1 0 0"/>
    <limit effort="15" velocity="10"/>
  </joint>
  <link name="griphis_2_nail1_1_link">
    <inertial>
      <origin rpy="0 0 0" xyz="0.0375115559402243 -4.52381021421033E-05 0.000927613439051046"/>
      <mass value="0.00785451508753953"/>
      <inertia ixx="3.26792929870295E-07" ixy="2.23311778369799E-10" ixz="3.04391588566406E-07" iyy="1.76174668735888E-06" iyz="-8.7203716693621E-12" izz="1.60467609944965E-06"/>
    </inertial>
    <visual>
      <origin rpy="0 0 0" xyz="0 0 0"/>
      <geometry>
        <mesh filename="./../meshes/nail1_1_link.STL"/>
      </geometry>
      <material name="">
        <color rgba="1 1 1 1"/>
      </material>
    </visual>
    <collision>
      <origin rpy="0 0 0" xyz="0 0 0"/>
      <geometry>
        <mesh filename="./../meshes/nail1_1_link.STL"/>
      </geometry>
    </collision>
  </link>
  <joint name="griphis_2_nail1_rotate_1" type="continuous">
    <origin rpy="1.5707963267948433 -1.5707963267948966 0.0" xyz="-0.00031819805152675075 -0.014681801948467067 -0.019699999999999995"/>
    <parent link="griphis_2_roll_1_link"/>
    <child link="griphis_2_nail1_1_link"/>
    <axis xyz="0 -1 0"/>
    <mimic joint="griphis_2_worm_rotate_1" multiplier="0.091" offset="0"/>
  </joint>
  <link name="griphis_2_nail2_1_link">
    <inertial>
      <origin rpy="0 0 0" xyz="0.0375922338704431 -0.000920668174592305 -5.01249966510589E-05"/>
      <mass value="0.00783920613274618"/>
      <inertia ixx="3.26764420600123E-07" ixy="-3.04083796030301E-07" ixz="3.01596352148099E-10" iyy="1.60307023285989E-06" iyz="-3.50228545349602E-11" izz="1.7600802033745E-06"/>
    </inertial>
    <visual>
      <origin rpy="0 0 0" xyz="0 0 0"/>
      <geometry>
        <mesh filename="./../meshes/nail2_1_link.STL"/>
      </geometry>
      <material name="">
        <color rgba="0.752941176470588 0.752941176470588 0.752941176470588 1"/>
      </material>
    </visual>
    <collision>
      <origin rpy="0 0 0" xyz="0 0 0"/>
      <geometry>
        <mesh filename="./../meshes/nail2_1_link.STL"/>
      </geometry>
    </collision>
  </link>
  <joint name="griphis_2_nail2_rotate_1" type="continuous">
    <origin rpy="-1.5707963267948963 -1.5707963267948966 0.0" xyz="-0.015318198051535455 0.00031819805152833 -0.019699999999999995"/>
    <parent link="griphis_2_roll_1_link"/>
    <child link="griphis_2_nail2_1_link"/>
    <axis xyz="0 0 -1"/>
    <mimic joint="griphis_2_worm_rotate_1" multiplier="0.091" offset="0"/>
  </joint>
  <link name="griphis_2_nail3_1_link">
    <inertial>
      <origin rpy="0 0 0" xyz="0.0376633576375596 -4.50239708446043E-05 0.000912382199221681"/>
      <mass value="0.00782164323980883"/>
      <inertia ixx="3.26387568167113E-07" ixy="1.94469452026803E-10" ixz="3.03929104031752E-07" iyy="1.75640452707706E-06" iyz="-1.77166863072923E-11" izz="1.59916689354216E-06"/>
    </inertial>
    <visual>
      <origin rpy="0 0 0" xyz="0 0 0"/>
      <geometry>
        <mesh filename="./../meshes/nail3_1_link.STL"/>
      </geometry>
      <material name="">
        <color rgba="0.752941176470588 0.752941176470588 0.752941176470588 1"/>
      </material>
    </visual>
    <collision>
      <origin rpy="0 0 0" xyz="0 0 0"/>
      <geometry>
        <mesh filename="./../meshes/nail3_1_link.STL"/>
      </geometry>
    </collision>
  </link>
  <joint name="griphis_2_nail3_rotate_1" type="continuous">
    <origin rpy="-1.5707963267948963 -1.5707963267948966 0.0" xyz="-0.00031819805152675737 0.015318198051532934 -0.019700000000000092"/>
    <parent link="griphis_2_roll_1_link"/>
    <child link="griphis_2_nail3_1_link"/>
    <axis xyz="0 -1 0"/>
    <mimic joint="griphis_2_worm_rotate_1" multiplier="0.091" offset="0"/>
  </joint>
  <link name="griphis_2_nail4_1_link">
    <inertial>
      <origin rpy="0 0 0" xyz="0.0376199045292883 0.000916237603659741 4.27065705779009E-05"/>
      <mass value="0.00783130292561273"/>
      <inertia ixx="3.26490723468266E-07" ixy="3.0398859313737E-07" ixz="-4.37077734142467E-10" iyy="1.60061195688429E-06" iyz="2.94387193060157E-11" izz="1.75778452318195E-06"/>
    </inertial>
    <visual>
      <origin rpy="0 0 0" xyz="0 0 0"/>
      <geometry>
        <mesh filename="./../meshes/nail4_1_link.STL"/>
      </geometry>
      <material name="">
        <color rgba="0.752941176470588 0.752941176470588 0.752941176470588 1"/>
      </material>
    </visual>
    <collision>
      <origin rpy="0 0 0" xyz="0 0 0"/>
      <geometry>
        <mesh filename="./../meshes/nail4_1_link.STL"/>
      </geometry>
    </collision>
  </link>
  <joint name="griphis_2_nail4_rotate_1" type="continuous">
    <origin rpy="-1.5707963267948963 -1.5707963267948966 0.0" xyz="0.014681801948464546 0.00031819805152833667 -0.019699999999999995"/>
    <parent link="griphis_2_roll_1_link"/>
    <child link="griphis_2_nail4_1_link"/>
    <axis xyz="0 0 1"/>
    <mimic joint="griphis_2_worm_rotate_1" multiplier="0.091" offset="0"/>
  </joint>
  <link name="griphis_2_nail-cp1">
    <inertial>
      <origin rpy="0 0 0" xyz="-2.058274506931E-05 -0.000405813357968389 -0.0658092329631552"/>
      <mass value="0.0011585387013778"/>
      <inertia ixx="1.05682260080874E-07" ixy="-1.5764583148915E-09" ixz="-7.53303890952621E-11" iyy="1.05682260080874E-07" iyz="7.53303890952626E-11" izz="2.1081276337663E-07"/>
    </inertial>
    <visual>
      <origin rpy="0 0 0" xyz="0 0 0"/>
      <geometry>
        <mesh filename="./../meshes/nail-cp1.STL"/>
      </geometry>
      <material name="">
        <color rgba="1 1 1 1"/>
      </material>
    </visual>
    <collision>
      <origin rpy="0 0 0" xyz="0 0 0"/>
      <geometry>
        <mesh filename="./../meshes/nail-cp1.STL"/>
      </geometry>
    </collision>
  </link>
  <joint name="griphis_2_nail-cp1" type="fixed">
    <origin rpy="6.4948046940571666e-15 3.774758283725532e-15 -3.141592653589793" xyz="-0.000636396103034807 0.00020999999999474846 0.0650000000000001"/>
    <parent link="griphis_2_roll_1_link"/>
    <child link="griphis_2_nail-cp1"/>
    <axis xyz="0 0 0"/>
  </joint>
  <link name="griphis_2_gripper-cp1">
    <inertial>
      <origin rpy="0 0 0" xyz="-0.000249014516100668 -0.00102239026541428 -0.0133818116212472"/>
      <mass value="0.0105278029927928"/>
      <inertia ixx="2.49426973639437E-06" ixy="-4.53009756265879E-08" ixz="6.75736959711176E-08" iyy="2.70040122944883E-06" iyz="-2.88247256637324E-07" izz="2.67368335360225E-06"/>
    </inertial>
    <visual>
      <origin rpy="0 0 0" xyz="0 0 0"/>
      <geometry>
        <mesh filename="./../meshes/gripper-cp1.STL"/>
      </geometry>
      <material name="">
        <color rgba="1 1 1 1"/>
      </material>
    </visual>
    <collision>
      <origin rpy="0 0 0" xyz="0 0 0"/>
      <geometry>
        <mesh filename="./../meshes/gripper-cp1.STL"/>
      </geometry>
    </collision>
  </link>
  <joint name="griphis_2_gripper-cp1" type="fixed">
    <origin rpy="0 0 0" xyz="0 0 0"/>
    <parent link="griphis_2_gripper-cp1"/>
    <child link="griphis_2_roll_1_link"/>
    <axis xyz="-0.0 -0.0 -0.0"/>
  </joint>
  <link name="griphis_2_nailring1-cp1">
    <inertial>
      <origin rpy="0 0 0" xyz="0.000495209639942942 -2.15213012098869E-07 -0.00500225533856013"/>
      <mass value="0.00888435164177016"/>
      <inertia ixx="1.85848970375133E-06" ixy="4.08320407087235E-11" ixz="9.14133574374128E-10" iyy="1.88948158451332E-06" iyz="-1.8157617423749E-12" izz="3.47494887160992E-06"/>
    </inertial>
    <visual>
      <origin rpy="0 0 0" xyz="0 0 0"/>
      <geometry>
        <mesh filename="./../meshes/nailring1-cp1.STL"/>
      </geometry>
      <material name="">
        <color rgba="1 1 1 1"/>
      </material>
    </visual>
    <collision>
      <origin rpy="0 0 0" xyz="0 0 0"/>
      <geometry>
        <mesh filename="./../meshes/nailring1-cp1.STL"/>
      </geometry>
    </collision>
  </link>
  <joint name="griphis_2_nailring1-cp1" type="fixed">
    <origin rpy="1.5707963267948433 -1.5707963267948966 0.0" xyz="-0.0003181980515267614 0.033318198051532834 -0.048100053496672186"/>
    <parent link="griphis_2_roll_1_link"/>
    <child link="griphis_2_nailring1-cp1"/>
    <axis xyz="0 0 0"/>
  </joint>
  <link name="griphis_2_nailring1-cp2">
    <inertial>
      <origin rpy="0 0 0" xyz="0.000495209639943192 -2.15213011856008E-07 -0.00500225533855998"/>
      <mass value="0.00888435164177017"/>
      <inertia ixx="1.85848970375133E-06" ixy="4.08320407083519E-11" ixz="9.1413357437371E-10" iyy="1.88948158451332E-06" iyz="-1.81576174254404E-12" izz="3.47494887160992E-06"/>
    </inertial>
    <visual>
      <origin rpy="0 0 0" xyz="0 0 0"/>
      <geometry>
        <mesh filename="./../meshes/nailring1-cp2.STL"/>
      </geometry>
      <material name="">
        <color rgba="1 1 1 1"/>
      </material>
    </visual>
    <collision>
      <origin rpy="0 0 0" xyz="0 0 0"/>
      <geometry>
        <mesh filename="./../meshes/nailring1-cp2.STL"/>
      </geometry>
    </collision>
  </link>
  <joint name="griphis_2_nailring1-cp2" type="fixed">
    <origin rpy="-5.645484080218921e-14 -1.5707963057214722 0.0" xyz="0.03268180194846475 0.00031819805152834697 -0.048100053496672394"/>
    <parent link="griphis_2_roll_1_link"/>
    <child link="griphis_2_nailring1-cp2"/>
    <axis xyz="0 0 0"/>
  </joint>
  <link name="griphis_2_nailring1-cp3">
    <inertial>
      <origin rpy="0 0 0" xyz="-0.000495209639943185 2.1521301184213E-07 -0.00500225533856018"/>
      <mass value="0.00888435164177015"/>
      <inertia ixx="1.85848970375133E-06" ixy="4.08320407089207E-11" ixz="-9.14133574373382E-10" iyy="1.88948158451332E-06" iyz="1.81576174213503E-12" izz="3.47494887160991E-06"/>
    </inertial>
    <visual>
      <origin rpy="0 0 0" xyz="0 0 0"/>
      <geometry>
        <mesh filename="./../meshes/nailring1-cp3.STL"/>
      </geometry>
      <material name="">
        <color rgba="1 1 1 1"/>
      </material>
    </visual>
    <collision>
      <origin rpy="0 0 0" xyz="0 0 0"/>
      <geometry>
        <mesh filename="./../meshes/nailring1-cp3.STL"/>
      </geometry>
    </collision>
  </link>
  <joint name="griphis_2_nailring1-cp3" type="fixed">
    <origin rpy="-1.5707963267948963 -1.5707963267948966 0.0" xyz="-0.00031819805152674674 -0.03268180194846797 -0.0482999465033276"/>
    <parent link="griphis_2_roll_1_link"/>
    <child link="griphis_2_nailring1-cp3"/>
    <axis xyz="0 0 0"/>
  </joint>
  <link name="griphis_2_nailring1-cp4">
    <inertial>
      <origin rpy="0 0 0" xyz="-0.000495209639943033 2.15213012022542E-07 -0.00500225533856014"/>
      <mass value="0.00888435164177017"/>
      <inertia ixx="1.85848970375133E-06" ixy="4.08320407090649E-11" ixz="-9.14133574373576E-10" iyy="1.88948158451332E-06" iyz="1.81576174274984E-12" izz="3.47494887160992E-06"/>
    </inertial>
    <visual>
      <origin rpy="0 0 0" xyz="0 0 0"/>
      <geometry>
        <mesh filename="./../meshes/nailring1-cp4.STL"/>
      </geometry>
      <material name="">
        <color rgba="1 1 1 1"/>
      </material>
    </visual>
    <collision>
      <origin rpy="0 0 0" xyz="0 0 0"/>
      <geometry>
        <mesh filename="./../meshes/nailring1-cp4.STL"/>
      </geometry>
    </collision>
  </link>
  <joint name="griphis_2_nailring1-cp4" type="fixed">
    <origin rpy="3.14159265358973 -1.5707963057214722 0.0" xyz="-0.03331819805153535 0.00031819805152833233 -0.048099946503327794"/>
    <parent link="griphis_2_roll_1_link"/>
    <child link="griphis_2_nailring1-cp4"/>
    <axis xyz="0 0 0"/>
  </joint>
  <link name="griphis_2_mid_pitch_2_link">
    <inertial>
      <origin rpy="0 0 0" xyz="-0.0327473641033502 -0.0322605669359661 0.000309352298986196"/>
      <mass value="0.0769502016363242"/>
      <inertia ixx="1.72130959551283E-05" ixy="1.01485711646082E-08" ixz="9.64338520342348E-08" iyy="1.36643051799986E-05" iyz="-5.60812725052765E-07" izz="1.63206675803235E-05"/>
    </inertial>
    <visual>
      <origin rpy="0 0 0" xyz="0 0 0"/>
      <geometry>
        <mesh filename="./../meshes/mid_pitch_2_link.STL"/>
      </geometry>
      <material name="">
        <color rgba="0.752941176470588 0.752941176470588 0.752941176470588 1"/>
      </material>
    </visual>
    <collision>
      <origin rpy="0 0 0" xyz="0 0 0"/>
      <geometry>
        <mesh filename="./../meshes/mid_pitch_2_link.STL"/>
      </geometry>
    </collision>
  </link>
  <joint name="griphis_2_mid_pitch_2" type="continuous">
    <origin rpy="0.0 0.0 0.0" xyz="-0.029900000000000003 0.0352000000000001 0.0002100000000035008"/>
    <parent link="griphis_2_base_link"/>
    <child link="griphis_2_mid_pitch_2_link"/>
    <axis xyz="0 -1 0"/>
    <limit effort="3" velocity="10"/>
    <mimic joint="griphis_2_mid_pitch_1" multiplier="1" offset="0"/>
  </joint>
  <link name="griphis_2_pitch_2_link">
    <inertial>
      <origin rpy="0 0 0" xyz="-0.0191893034316743 0.0172315960705706 -0.00342856576323701"/>
      <mass value="0.0105178263834885"/>
      <inertia ixx="5.84801171286379E-07" ixy="3.57321505353334E-09" ixz="-8.81524447786701E-08" iyy="1.04603360596441E-06" iyz="1.51990880905164E-13" izz="9.82964870358905E-07"/>
    </inertial>
    <visual>
      <origin rpy="0 0 0" xyz="0 0 0"/>
      <geometry>
        <mesh filename="./../meshes/pitch_2_link.STL"/>
      </geometry>
      <material name="">
        <color rgba="0.298039215686275 0.298039215686275 0.298039215686275 1"/>
      </material>
    </visual>
    <collision>
      <origin rpy="0 0 0" xyz="0 0 0"/>
      <geometry>
        <mesh filename="./../meshes/pitch_2_link.STL"/>
      </geometry>
    </collision>
  </link>
  <joint name="griphis_2_pitch_2" type="continuous">
    <origin rpy="0 0 0" xyz="-0.0640000000000067 -0.0350999999999972 0"/>
    <parent link="griphis_2_mid_pitch_2_link"/>
    <child link="griphis_2_pitch_2_link"/>
    <axis xyz="0 1 0"/>
    <limit effort="3" velocity="10"/>
  </joint>
  <link name="griphis_2_yaw_2_link">
    <inertial>
      <origin rpy="0 0 0" xyz="-0.00934924449476787 -1.20738749553873E-09 -0.00656570463247875"/>
      <mass value="0.0544536529144548"/>
      <inertia ixx="6.1608306877813E-06" ixy="-1.48630786812854E-08" ixz="-3.66333645918454E-08" iyy="7.36783210634451E-06" iyz="1.48635489875795E-08" izz="7.24407314817233E-06"/>
    </inertial>
    <visual>
      <origin rpy="0 0 0" xyz="0 0 0"/>
      <geometry>
        <mesh filename="./../meshes/yaw_2_link.STL"/>
      </geometry>
      <material name="">
        <color rgba="0.180392156862745 0.180392156862745 0.180392156862745 1"/>
      </material>
    </visual>
    <collision>
      <origin rpy="0 0 0" xyz="0 0 0"/>
      <geometry>
        <mesh filename="./../meshes/yaw_2_link.STL"/>
      </geometry>
    </collision>
  </link>
  <joint name="griphis_2_yaw_2" type="continuous">
    <origin rpy="0 0 0" xyz="-0.0419999999999942 0.0175000000000631 0.0174999999999867"/>
    <parent link="griphis_2_pitch_2_link"/>
    <child link="griphis_2_yaw_2_link"/>
    <axis xyz="0 0 -1"/>
    <limit effort="3" velocity="10"/>
  </joint>
  <link name="griphis_2_roll_2_link">
    <inertial>
      <origin rpy="0 0 0" xyz="-0.0304847934275298 0.000533683595516123 -0.000138763582688578"/>
      <mass value="0.0617238803473503"/>
      <inertia ixx="1.72112591146286E-05" ixy="-2.34655399562003E-07" ixz="-1.72186999812873E-07" iyy="1.09105230206178E-05" iyz="-3.90599560037894E-08" izz="1.62402505711448E-05"/>
    </inertial>
    <visual>
      <origin rpy="0 0 0" xyz="0 0 0"/>
      <geometry>
        <mesh filename="./../meshes/roll_2_link.STL"/>
      </geometry>
      <material name="">
        <color rgba="1 1 1 1"/>
      </material>
    </visual>
    <collision>
      <origin rpy="0 0 0" xyz="0 0 0"/>
      <geometry>
        <mesh filename="./../meshes/roll_2_link.STL"/>
      </geometry>
    </collision>
  </link>
  <joint name="griphis_2_roll_2" type="continuous">
    <origin rpy="0 0 0" xyz="-0.0280000000000042 0 -0.0175000000000007"/>
    <parent link="griphis_2_yaw_2_link"/>
    <child link="griphis_2_roll_2_link"/>
    <axis xyz="-1 0 0"/>
    <limit effort="3" velocity="10"/>
  </joint>
  <link name="griphis_2_worm_2_link">
    <inertial>
      <origin rpy="0 0 0" xyz="-0.00680389920380498 5.66707617536341E-05 3.76180533663562E-06"/>
      <mass value="0.00387257616321651"/>
      <inertia ixx="2.0626455720602E-07" ixy="6.3200237698076E-10" ixz="-1.25909856906162E-09" iyy="1.713062458146E-07" iyz="1.39152999506885E-11" izz="1.71128105557195E-07"/>
    </inertial>
    <visual>
      <origin rpy="0 0 0" xyz="0 0 0"/>
      <geometry>
        <mesh filename="./../meshes/worm_2_link.STL"/>
      </geometry>
      <material name="">
        <color rgba="0.752941176470588 0.752941176470588 0.752941176470588 1"/>
      </material>
    </visual>
    <collision>
      <origin rpy="0 0 0" xyz="0 0 0"/>
      <geometry>
        <mesh filename="./../meshes/worm_2_link.STL"/>
      </geometry>
    </collision>
  </link>
  <joint name="griphis_2_worm_rotate_2" type="continuous">
    <origin rpy="0 0 0" xyz="-0.0470000000000015 0 0"/>
    <parent link="griphis_2_roll_2_link"/>
    <child link="griphis_2_worm_2_link"/>
    <axis xyz="0.737216674660088 0 0.675656402769279"/>
    <limit effort="15" velocity="10"/>
  </joint>
  <link name="griphis_2_nail1_2_link">
    <inertial>
      <origin rpy="0 0 0" xyz="-0.0375115559402153 0.000154761897861344 -0.000927613439127735"/>
      <mass value="0.00785451508753956"/>
      <inertia ixx="3.26792929870324E-07" ixy="-2.23311778394515E-10" ixz="3.04391588566463E-07" iyy="1.76174668735889E-06" iyz="8.72037168507631E-12" izz="1.60467609944963E-06"/>
    </inertial>
    <visual>
      <origin rpy="0 0 0" xyz="0 0 0"/>
      <geometry>
        <mesh filename="./../meshes/nail1_2_link.STL"/>
      </geometry>
      <material name="">
        <color rgba="1 1 1 1"/>
      </material>
    </visual>
    <collision>
      <origin rpy="0 0 0" xyz="0 0 0"/>
      <geometry>
        <mesh filename="./../meshes/nail1_2_link.STL"/>
      </geometry>
    </collision>
  </link>
  <joint name="griphis_2_nail1_rotate_2" type="continuous">
    <origin rpy="0 0 0" xyz="-0.0570000000000014 0 -0.0149999999999872"/>
    <parent link="griphis_2_roll_2_link"/>
    <child link="griphis_2_nail1_2_link"/>
    <axis xyz="0 -1 0"/>
    <mimic joint="griphis_2_worm_rotate_2" multiplier="0.091" offset="0"/>
  </joint>
  <link name="griphis_2_nail2_2_link">
    <inertial>
      <origin rpy="0 0 0" xyz="-0.0375922338704413 0.000920668174601659 0.000149875003347476"/>
      <mass value="0.00783920613274653"/>
      <inertia ixx="3.26764420600132E-07" ixy="-3.0408379603033E-07" ixz="-3.01596352109658E-10" iyy="1.60307023286001E-06" iyz="3.50228545423785E-11" izz="1.76008020337463E-06"/>
    </inertial>
    <visual>
      <origin rpy="0 0 0" xyz="0 0 0"/>
      <geometry>
        <mesh filename="./../meshes/nail2_2_link.STL"/>
      </geometry>
      <material name="">
        <color rgba="0.752941176470588 0.752941176470588 0.752941176470588 1"/>
      </material>
    </visual>
    <collision>
      <origin rpy="0 0 0" xyz="0 0 0"/>
      <geometry>
        <mesh filename="./../meshes/nail2_2_link.STL"/>
      </geometry>
    </collision>
  </link>
  <joint name="griphis_2_nail2_rotate_2" type="continuous">
    <origin rpy="0 0 0" xyz="-0.0570000000000009 0.015 0"/>
    <parent link="griphis_2_roll_2_link"/>
    <child link="griphis_2_nail2_2_link"/>
    <axis xyz="0 0 -1"/>
    <mimic joint="griphis_2_worm_rotate_2" multiplier="0.091" offset="0"/>
  </joint>
  <link name="griphis_2_nail3_2_link">
    <inertial>
      <origin rpy="0 0 0" xyz="-0.0376633576375554 4.50239708458949E-05 0.000912382199144402"/>
      <mass value="0.00782164323980893"/>
      <inertia ixx="3.26387568167086E-07" ixy="1.94469452048084E-10" ixz="-3.03929104031706E-07" iyy="1.75640452707709E-06" iyz="1.77166863189614E-11" izz="1.59916689354222E-06"/>
    </inertial>
    <visual>
      <origin rpy="0 0 0" xyz="0 0 0"/>
      <geometry>
        <mesh filename="./../meshes/nail3_2_link.STL"/>
      </geometry>
      <material name="">
        <color rgba="0.752941176470588 0.752941176470588 0.752941176470588 1"/>
      </material>
    </visual>
    <collision>
      <origin rpy="0 0 0" xyz="0 0 0"/>
      <geometry>
        <mesh filename="./../meshes/nail3_2_link.STL"/>
      </geometry>
    </collision>
  </link>
  <joint name="griphis_2_nail3_rotate_2" type="continuous">
    <origin rpy="0 0 0" xyz="-0.0570000000000004 0 0.0150000000000128"/>
    <parent link="griphis_2_roll_2_link"/>
    <child link="griphis_2_nail3_2_link"/>
    <axis xyz="0 1 0"/>
    <mimic joint="griphis_2_worm_rotate_2" multiplier="0.091" offset="0"/>
  </joint>
  <link name="griphis_2_nail4_2_link">
    <inertial>
      <origin rpy="0 0 0" xyz="-0.0376199045292857 -0.000916237603655147 -0.000157293429422369"/>
      <mass value="0.00783130292561298"/>
      <inertia ixx="3.26490723468276E-07" ixy="3.03988593137378E-07" ixz="4.37077734057104E-10" iyy="1.60061195688436E-06" iyz="-2.94387192594929E-11" izz="1.75778452318202E-06"/>
    </inertial>
    <visual>
      <origin rpy="0 0 0" xyz="0 0 0"/>
      <geometry>
        <mesh filename="./../meshes/nail4_2_link.STL"/>
      </geometry>
      <material name="">
        <color rgba="0.752941176470588 0.752941176470588 0.752941176470588 1"/>
      </material>
    </visual>
    <collision>
      <origin rpy="0 0 0" xyz="0 0 0"/>
      <geometry>
        <mesh filename="./../meshes/nail4_2_link.STL"/>
      </geometry>
    </collision>
  </link>
  <joint name="griphis_2_nail4_rotate_2" type="continuous">
    <origin rpy="0 0 0" xyz="-0.0570000000000017 -0.0149999999999955 0"/>
    <parent link="griphis_2_roll_2_link"/>
    <child link="griphis_2_nail4_2_link"/>
    <axis xyz="0 0 1"/>
    <mimic joint="griphis_2_worm_rotate_2" multiplier="0.091" offset="0"/>
  </joint>
  <link name="griphis_2_nail-cp2">
    <inertial>
      <origin rpy="0 0 0" xyz="0.000615813357965365 -0.00061581335794697 -0.0658092329631574"/>
      <mass value="0.00115853870137781"/>
      <inertia ixx="1.05682260080874E-07" ixy="-1.5764583148907E-09" ixz="-7.53303890952508E-11" iyy="1.05682260080874E-07" iyz="7.53303890920378E-11" izz="2.10812763376632E-07"/>
    </inertial>
    <visual>
      <origin rpy="0 0 0" xyz="0 0 0"/>
      <geometry>
        <mesh filename="./../meshes/nail-cp2.STL"/>
      </geometry>
      <material name="">
        <color rgba="0.796078431372549 0.823529411764706 0.937254901960784 1"/>
      </material>
    </visual>
    <collision>
      <origin rpy="0 0 0" xyz="0 0 0"/>
      <geometry>
        <mesh filename="./../meshes/nail-cp2.STL"/>
      </geometry>
    </collision>
  </link>
  <joint name="griphis_2_nail-cp2" type="fixed">
    <origin rpy="-1.5707963267949 0 1.5707963267949" xyz="-0.141700000000001 -0.000318198051535531 -0.00031819805151536"/>
    <parent link="griphis_2_roll_2_link"/>
    <child link="griphis_2_nail-cp2"/>
    <axis xyz="0 0 0"/>
  </joint>
  <link name="griphis_2_gripper-cp2">
    <inertial>
      <origin rpy="0 0 0" xyz="0.000249014516096963 -0.00102239026539895 0.0133818116212488"/>
      <mass value="0.0105278029927927"/>
      <inertia ixx="2.49426973639434E-06" ixy="4.53009756265701E-08" ixz="6.75736959710746E-08" iyy="2.70040122944888E-06" iyz="2.88247256637327E-07" izz="2.67368335360219E-06"/>
    </inertial>
    <visual>
      <origin rpy="0 0 0" xyz="0 0 0"/>
      <geometry>
        <mesh filename="./../meshes/gripper-cp2.STL"/>
      </geometry>
      <material name="">
        <color rgba="1 1 1 1"/>
      </material>
    </visual>
    <collision>
      <origin rpy="0 0 0" xyz="0 0 0"/>
      <geometry>
        <mesh filename="./../meshes/gripper-cp2.STL"/>
      </geometry>
    </collision>
  </link>
  <joint name="griphis_2_gripper-cp2" type="fixed">
    <origin rpy="-1.57079632679485 0 -1.57079632679489" xyz="-0.0766999999999999 -0.000318198051539618 -0.000318198051517046"/>
    <parent link="griphis_2_roll_2_link"/>
    <child link="griphis_2_gripper-cp2"/>
    <axis xyz="0 0 0"/>
  </joint>
  <link name="griphis_2_nailring2-cp1">
    <inertial>
      <origin rpy="0 0 0" xyz="0.000495209639943872 -2.15213011231508E-07 -0.0050022553385601"/>
      <mass value="0.00888435164177013"/>
      <inertia ixx="1.85848970375132E-06" ixy="4.08320407075244E-11" ixz="9.14133574374455E-10" iyy="1.88948158451332E-06" iyz="-1.81576174187697E-12" izz="3.47494887160991E-06"/>
    </inertial>
    <visual>
      <origin rpy="0 0 0" xyz="0 0 0"/>
      <geometry>
        <mesh filename="./../meshes/nailring2-cp1.STL"/>
      </geometry>
      <material name="">
        <color rgba="1 1 1 1"/>
      </material>
    </visual>
    <collision>
      <origin rpy="0 0 0" xyz="0 0 0"/>
      <geometry>
        <mesh filename="./../meshes/nailring2-cp1.STL"/>
      </geometry>
    </collision>
  </link>
  <joint name="griphis_2_nailring2-cp1" type="fixed">
    <origin rpy="3.14159265358978 0 -3.14159238847494" xyz="-0.0285999465033246 0 0.0330000000000001"/>
    <parent link="griphis_2_roll_2_link"/>
    <child link="griphis_2_nailring2-cp1"/>
    <axis xyz="0 0 0"/>
  </joint>
  <link name="griphis_2_nailring2-cp2">
    <inertial>
      <origin rpy="0 0 0" xyz="0.000495209639942984 -2.15213012050297E-07 -0.00500225533856015"/>
      <mass value="0.00888435164177019"/>
      <inertia ixx="1.85848970375134E-06" ixy="4.08320407074391E-11" ixz="9.14133574373919E-10" iyy="1.88948158451332E-06" iyz="-1.81576174216739E-12" izz="3.47494887160993E-06"/>
    </inertial>
    <visual>
      <origin rpy="0 0 0" xyz="0 0 0"/>
      <geometry>
        <mesh filename="./../meshes/nailring2-cp2.STL"/>
      </geometry>
      <material name="">
        <color rgba="1 1 1 1"/>
      </material>
    </visual>
    <collision>
      <origin rpy="0 0 0" xyz="0 0 0"/>
      <geometry>
        <mesh filename="./../meshes/nailring2-cp2.STL"/>
      </geometry>
    </collision>
  </link>
  <joint name="griphis_2_nailring2-cp2" type="fixed">
    <origin rpy="1.57079632679488 0 3.14159265358979" xyz="-0.0285999465033264 -0.0330000000000002 0"/>
    <parent link="griphis_2_roll_2_link"/>
    <child link="griphis_2_nailring2-cp2"/>
    <axis xyz="0 0 0"/>
  </joint>
  <link name="griphis_2_nailring2-cp3">
    <inertial>
      <origin rpy="0 0 0" xyz="-0.000495209639942817 2.15213012078053E-07 -0.00500225533856008"/>
      <mass value="0.00888435164177013"/>
      <inertia ixx="1.85848970375132E-06" ixy="4.08320407098813E-11" ixz="-9.14133574373917E-10" iyy="1.88948158451331E-06" iyz="1.81576173997682E-12" izz="3.4749488716099E-06"/>
    </inertial>
    <visual>
      <origin rpy="0 0 0" xyz="0 0 0"/>
      <geometry>
        <mesh filename="./../meshes/nailring2-cp3.STL"/>
      </geometry>
      <material name="">
        <color rgba="1 1 1 1"/>
      </material>
    </visual>
    <collision>
      <origin rpy="0 0 0" xyz="0 0 0"/>
      <geometry>
        <mesh filename="./../meshes/nailring2-cp3.STL"/>
      </geometry>
    </collision>
  </link>
  <joint name="griphis_2_nailring2-cp3" type="fixed">
    <origin rpy="0 0 3.14159238847493" xyz="-0.0284000534966716 0 -0.0330000000000008"/>
    <parent link="griphis_2_roll_2_link"/>
    <child link="griphis_2_nailring2-cp3"/>
    <axis xyz="0 0 0"/>
  </joint>
  <link name="griphis_2_nailring2-cp4">
    <inertial>
      <origin rpy="0 0 0" xyz="-0.000495209639943039 2.15213012015603E-07 -0.00500225533856"/>
      <mass value="0.00888435164177014"/>
      <inertia ixx="1.85848970375133E-06" ixy="4.08320407107192E-11" ixz="-9.14133574373996E-10" iyy="1.88948158451331E-06" iyz="1.81576174170535E-12" izz="3.47494887160991E-06"/>
    </inertial>
    <visual>
      <origin rpy="0 0 0" xyz="0 0 0"/>
      <geometry>
        <mesh filename="./../meshes/nailring2-cp4.STL"/>
      </geometry>
      <material name="">
        <color rgba="1 1 1 1"/>
      </material>
    </visual>
    <collision>
      <origin rpy="0 0 0" xyz="0 0 0"/>
      <geometry>
        <mesh filename="./../meshes/nailring2-cp4.STL"/>
      </geometry>
    </collision>
  </link>
  <joint name="griphis_2_nailring2-cp4" type="fixed">
    <origin rpy="-1.57079632679492 0 3.14159265358979" xyz="-0.0286000534966706 0.0329999999999998 0"/>
    <parent link="griphis_2_roll_2_link"/>
    <child link="griphis_2_nailring2-cp4"/>
    <axis xyz="0 0 0"/>
  </joint>
  <joint name="griphis_3_gripper-cp1_to_griphis_0_nailring2-cp2_joint" type="fixed">
    <parent link="griphis_0_nailring2-cp2"/>
    <child link="griphis_3_gripper-cp1"/>
    <origin rpy="0 0 0" xyz="0 0 -0.07"/>
  </joint>
  <link name="griphis_3_base_link">
    <inertial>
      <origin rpy="0 0 0" xyz="-0.00010264257406678 3.31727350517397E-05 -0.00495518296571391"/>
      <mass value="0.0797462541060097"/>
      <inertia ixx="8.57012114371153E-06" ixy="1.08293491537705E-08" ixz="-5.94275788505759E-09" iyy="1.05158543807875E-05" iyz="1.10583333432373E-08" izz="1.08869595154247E-05"/>
    </inertial>
    <visual>
      <origin rpy="0.0 -0.0 0.0" xyz="-0.0148999999999995 0.0176000000000318 0.0109999999999849"/>
      <geometry>
        <mesh filename="./../meshes/base_link.STL"/>
      </geometry>
      <material name="">
        <color rgba="0.752941176470588 0.752941176470588 0.752941176470588 1"/>
      </material>
    </visual>
    <collision>
      <origin rpy="0.0 -0.0 0.0" xyz="-0.0148999999999995 0.0176000000000318 0.0109999999999849"/>
      <geometry>
        <mesh filename="./../meshes/base_link.STL"/>
      </geometry>
    </collision>
  </link>
  <link name="griphis_3_mid_pitch_1_link">
    <inertial>
      <origin rpy="0 0 0" xyz="0.0327517154872403 0.0322634011493343 0.000309410745622088"/>
      <mass value="0.0769353285466722"/>
      <inertia ixx="1.72122749770761E-05" ixy="1.01496940835006E-08" ixz="-9.64331189423188E-08" iyy="1.36641198773196E-05" iyz="5.60814889063421E-07" izz="1.63211688368785E-05"/>
    </inertial>
    <visual>
      <origin rpy="0.0 -0.0 0.0" xyz="-0.0640000000000069 -0.0350999999999983 -0.0"/>
      <geometry>
        <mesh filename="./../meshes/mid_pitch_1_link.STL"/>
      </geometry>
      <material name="">
        <color rgba="0.752941176470588 0.752941176470588 0.752941176470588 1"/>
      </material>
    </visual>
    <collision>
      <origin rpy="0.0 -0.0 0.0" xyz="-0.0640000000000069 -0.0350999999999983 -0.0"/>
      <geometry>
        <mesh filename="./../meshes/mid_pitch_1_link.STL"/>
      </geometry>
    </collision>
  </link>
  <joint name="griphis_3_mid_pitch_1" type="continuous">
    <origin rpy="0.0 -0.0 0.0" xyz="-0.0640000000000069 -0.0350999999999983 -0.0"/>
    <parent link="griphis_3_mid_pitch_1_link"/>
    <child link="griphis_3_base_link"/>
    <axis xyz="-0.0 -1.0 -0.0"/>
    <limit effort="3" velocity="10"/>
  </joint>
  <link name="griphis_3_pitch_1_link">
    <inertial>
      <origin rpy="0 0 0" xyz="0.0191893034316777 -0.017231596070573 -0.00342856576321433"/>
      <mass value="0.0105178263834885"/>
      <inertia ixx="5.84801171286377E-07" ixy="3.57321505354626E-09" ixz="8.8152444778668E-08" iyy="1.04603360596441E-06" iyz="-1.51990885783075E-13" izz="9.82964870358909E-07"/>
    </inertial>
    <visual>
      <origin rpy="0.0 -0.0 0.0" xyz="-0.0420000000000015 0.0175000000000007 -0.0174999999999981"/>
      <geometry>
        <mesh filename="./../meshes/pitch_1_link.STL"/>
      </geometry>
      <material name="">
        <color rgba="0.298039215686275 0.298039215686275 0.298039215686275 1"/>
      </material>
    </visual>
    <collision>
      <origin rpy="0.0 -0.0 0.0" xyz="-0.0420000000000015 0.0175000000000007 -0.0174999999999981"/>
      <geometry>
        <mesh filename="./../meshes/pitch_1_link.STL"/>
      </geometry>
    </collision>
  </link>
  <joint name="griphis_3_pitch_1" type="continuous">
    <origin rpy="0.0 -0.0 0.0" xyz="-0.0420000000000015 0.0175000000000007 -0.0174999999999981"/>
    <parent link="griphis_3_pitch_1_link"/>
    <child link="griphis_3_mid_pitch_1_link"/>
    <axis xyz="-0.0 -1.0 -0.0"/>
    <limit effort="3" velocity="10"/>
  </joint>
  <link name="griphis_3_yaw_1_link">
    <inertial>
      <origin rpy="0 0 0" xyz="0.00934924439107056 -1.17000596711048E-10 -0.0065657034112081"/>
      <mass value="0.0544535701857151"/>
      <inertia ixx="6.16082295678474E-06" ixy="-1.48642619322733E-08" ixz="3.66332313625793E-08" iyy="7.36782974228272E-06" iyz="-1.48634431569832E-08" izz="7.24406343523596E-06"/>
    </inertial>
    <visual>
      <origin rpy="0.0 -0.0 0.0" xyz="-0.0279999999999981 -0.0 0.0175000000000002"/>
      <geometry>
        <mesh filename="./../meshes/yaw_1_link.STL"/>
      </geometry>
      <material name="">
        <color rgba="0.180392156862745 0.180392156862745 0.180392156862745 1"/>
      </material>
    </visual>
    <collision>
      <origin rpy="0.0 -0.0 0.0" xyz="-0.0279999999999981 -0.0 0.0175000000000002"/>
      <geometry>
        <mesh filename="./../meshes/yaw_1_link.STL"/>
      </geometry>
    </collision>
  </link>
  <joint name="griphis_3_yaw_1" type="continuous">
    <origin rpy="0.0 -0.0 0.0" xyz="-0.0279999999999981 -0.0 0.0175000000000002"/>
    <parent link="griphis_3_yaw_1_link"/>
    <child link="griphis_3_pitch_1_link"/>
    <axis xyz="-0.0 -0.0 1.0"/>
    <limit effort="3" velocity="10"/>
  </joint>
  <link name="griphis_3_roll_1_link">
    <inertial>
      <origin rpy="0 0 0" xyz="0.0304847934275313 -0.000533683595524997 -0.000138763582684304"/>
      <mass value="0.0617238803473503"/>
      <inertia ixx="1.72112591146286E-05" ixy="-2.34655399562005E-07" ixz="1.72186999812855E-07" iyy="1.09105230206178E-05" iyz="3.90599560040266E-08" izz="1.62402505711448E-05"/>
    </inertial>
    <visual>
      <origin rpy="0.0 -1.5707963267948966 -1.5707963267948966" xyz="-0.00031819805152675406 0.000318198051528346 -0.0766999999999999"/>
      <geometry>
        <mesh filename="./../meshes/roll_1_link.STL"/>
      </geometry>
      <material name="">
        <color rgba="1 1 1 1"/>
      </material>
    </visual>
    <collision>
      <origin rpy="0.0 -1.5707963267948966 -1.5707963267948966" xyz="-0.00031819805152675406 0.000318198051528346 -0.0766999999999999"/>
      <geometry>
        <mesh filename="./../meshes/roll_1_link.STL"/>
      </geometry>
    </collision>
  </link>
  <joint name="griphis_3_roll_1" type="continuous">
    <origin rpy="0.0 -1.5707963267948966 -1.5707963267948966" xyz="-0.00031819805152675406 0.000318198051528346 -0.0766999999999999"/>
    <parent link="griphis_3_roll_1_link"/>
    <child link="griphis_3_yaw_1_link"/>
    <axis xyz="1.0 -0.0 -0.0"/>
    <limit effort="3" velocity="10"/>
  </joint>
  <link name="griphis_3_worm_1_link">
    <inertial>
      <origin rpy="0 0 0" xyz="0.00680389923417661 1.29536242400655E-05 5.52986221441856E-05"/>
      <mass value="0.00387257618784269"/>
      <inertia ixx="2.06264558567859E-07" ixy="1.13917098659222E-09" ixz="-8.28881114232565E-10" iyy="1.7113732321225E-07" iyz="4.18404893657738E-11" izz="1.71297030362022E-07"/>
    </inertial>
    <visual>
      <origin rpy="0 0 0" xyz="0 0 0"/>
      <geometry>
        <mesh filename="./../meshes/worm_1_link.STL"/>
      </geometry>
      <material name="">
        <color rgba="0.752941176470588 0.752941176470588 0.752941176470588 1"/>
      </material>
    </visual>
    <collision>
      <origin rpy="0 0 0" xyz="0 0 0"/>
      <geometry>
        <mesh filename="./../meshes/worm_1_link.STL"/>
      </geometry>
    </collision>
  </link>
  <joint name="griphis_3_worm_rotate_1" type="continuous">
    <origin rpy="-1.5707963267948963 -1.5707963267948966 0.0" xyz="-0.00031819805152675406 0.00031819805152833553 -0.02969999999999999"/>
    <parent link="griphis_3_roll_1_link"/>
    <child link="griphis_3_worm_1_link"/>
    <axis xyz="1 0 0"/>
    <limit effort="15" velocity="10"/>
  </joint>
  <link name="griphis_3_nail1_1_link">
    <inertial>
      <origin rpy="0 0 0" xyz="0.0375115559402243 -4.52381021421033E-05 0.000927613439051046"/>
      <mass value="0.00785451508753953"/>
      <inertia ixx="3.26792929870295E-07" ixy="2.23311778369799E-10" ixz="3.04391588566406E-07" iyy="1.76174668735888E-06" iyz="-8.7203716693621E-12" izz="1.60467609944965E-06"/>
    </inertial>
    <visual>
      <origin rpy="0 0 0" xyz="0 0 0"/>
      <geometry>
        <mesh filename="./../meshes/nail1_1_link.STL"/>
      </geometry>
      <material name="">
        <color rgba="1 1 1 1"/>
      </material>
    </visual>
    <collision>
      <origin rpy="0 0 0" xyz="0 0 0"/>
      <geometry>
        <mesh filename="./../meshes/nail1_1_link.STL"/>
      </geometry>
    </collision>
  </link>
  <joint name="griphis_3_nail1_rotate_1" type="continuous">
    <origin rpy="1.5707963267948433 -1.5707963267948966 0.0" xyz="-0.00031819805152675075 -0.014681801948467067 -0.019699999999999995"/>
    <parent link="griphis_3_roll_1_link"/>
    <child link="griphis_3_nail1_1_link"/>
    <axis xyz="0 -1 0"/>
    <mimic joint="griphis_3_worm_rotate_1" multiplier="0.091" offset="0"/>
  </joint>
  <link name="griphis_3_nail2_1_link">
    <inertial>
      <origin rpy="0 0 0" xyz="0.0375922338704431 -0.000920668174592305 -5.01249966510589E-05"/>
      <mass value="0.00783920613274618"/>
      <inertia ixx="3.26764420600123E-07" ixy="-3.04083796030301E-07" ixz="3.01596352148099E-10" iyy="1.60307023285989E-06" iyz="-3.50228545349602E-11" izz="1.7600802033745E-06"/>
    </inertial>
    <visual>
      <origin rpy="0 0 0" xyz="0 0 0"/>
      <geometry>
        <mesh filename="./../meshes/nail2_1_link.STL"/>
      </geometry>
      <material name="">
        <color rgba="0.752941176470588 0.752941176470588 0.752941176470588 1"/>
      </material>
    </visual>
    <collision>
      <origin rpy="0 0 0" xyz="0 0 0"/>
      <geometry>
        <mesh filename="./../meshes/nail2_1_link.STL"/>
      </geometry>
    </collision>
  </link>
  <joint name="griphis_3_nail2_rotate_1" type="continuous">
    <origin rpy="-1.5707963267948963 -1.5707963267948966 0.0" xyz="-0.015318198051535455 0.00031819805152833 -0.019699999999999995"/>
    <parent link="griphis_3_roll_1_link"/>
    <child link="griphis_3_nail2_1_link"/>
    <axis xyz="0 0 -1"/>
    <mimic joint="griphis_3_worm_rotate_1" multiplier="0.091" offset="0"/>
  </joint>
  <link name="griphis_3_nail3_1_link">
    <inertial>
      <origin rpy="0 0 0" xyz="0.0376633576375596 -4.50239708446043E-05 0.000912382199221681"/>
      <mass value="0.00782164323980883"/>
      <inertia ixx="3.26387568167113E-07" ixy="1.94469452026803E-10" ixz="3.03929104031752E-07" iyy="1.75640452707706E-06" iyz="-1.77166863072923E-11" izz="1.59916689354216E-06"/>
    </inertial>
    <visual>
      <origin rpy="0 0 0" xyz="0 0 0"/>
      <geometry>
        <mesh filename="./../meshes/nail3_1_link.STL"/>
      </geometry>
      <material name="">
        <color rgba="0.752941176470588 0.752941176470588 0.752941176470588 1"/>
      </material>
    </visual>
    <collision>
      <origin rpy="0 0 0" xyz="0 0 0"/>
      <geometry>
        <mesh filename="./../meshes/nail3_1_link.STL"/>
      </geometry>
    </collision>
  </link>
  <joint name="griphis_3_nail3_rotate_1" type="continuous">
    <origin rpy="-1.5707963267948963 -1.5707963267948966 0.0" xyz="-0.00031819805152675737 0.015318198051532934 -0.019700000000000092"/>
    <parent link="griphis_3_roll_1_link"/>
    <child link="griphis_3_nail3_1_link"/>
    <axis xyz="0 -1 0"/>
    <mimic joint="griphis_3_worm_rotate_1" multiplier="0.091" offset="0"/>
  </joint>
  <link name="griphis_3_nail4_1_link">
    <inertial>
      <origin rpy="0 0 0" xyz="0.0376199045292883 0.000916237603659741 4.27065705779009E-05"/>
      <mass value="0.00783130292561273"/>
      <inertia ixx="3.26490723468266E-07" ixy="3.0398859313737E-07" ixz="-4.37077734142467E-10" iyy="1.60061195688429E-06" iyz="2.94387193060157E-11" izz="1.75778452318195E-06"/>
    </inertial>
    <visual>
      <origin rpy="0 0 0" xyz="0 0 0"/>
      <geometry>
        <mesh filename="./../meshes/nail4_1_link.STL"/>
      </geometry>
      <material name="">
        <color rgba="0.752941176470588 0.752941176470588 0.752941176470588 1"/>
      </material>
    </visual>
    <collision>
      <origin rpy="0 0 0" xyz="0 0 0"/>
      <geometry>
        <mesh filename="./../meshes/nail4_1_link.STL"/>
      </geometry>
    </collision>
  </link>
  <joint name="griphis_3_nail4_rotate_1" type="continuous">
    <origin rpy="-1.5707963267948963 -1.5707963267948966 0.0" xyz="0.014681801948464546 0.00031819805152833667 -0.019699999999999995"/>
    <parent link="griphis_3_roll_1_link"/>
    <child link="griphis_3_nail4_1_link"/>
    <axis xyz="0 0 1"/>
    <mimic joint="griphis_3_worm_rotate_1" multiplier="0.091" offset="0"/>
  </joint>
  <link name="griphis_3_nail-cp1">
    <inertial>
      <origin rpy="0 0 0" xyz="-2.058274506931E-05 -0.000405813357968389 -0.0658092329631552"/>
      <mass value="0.0011585387013778"/>
      <inertia ixx="1.05682260080874E-07" ixy="-1.5764583148915E-09" ixz="-7.53303890952621E-11" iyy="1.05682260080874E-07" iyz="7.53303890952626E-11" izz="2.1081276337663E-07"/>
    </inertial>
    <visual>
      <origin rpy="0 0 0" xyz="0 0 0"/>
      <geometry>
        <mesh filename="./../meshes/nail-cp1.STL"/>
      </geometry>
      <material name="">
        <color rgba="1 1 1 1"/>
      </material>
    </visual>
    <collision>
      <origin rpy="0 0 0" xyz="0 0 0"/>
      <geometry>
        <mesh filename="./../meshes/nail-cp1.STL"/>
      </geometry>
    </collision>
  </link>
  <joint name="griphis_3_nail-cp1" type="fixed">
    <origin rpy="6.4948046940571666e-15 3.774758283725532e-15 -3.141592653589793" xyz="-0.000636396103034807 0.00020999999999474846 0.0650000000000001"/>
    <parent link="griphis_3_roll_1_link"/>
    <child link="griphis_3_nail-cp1"/>
    <axis xyz="0 0 0"/>
  </joint>
  <link name="griphis_3_gripper-cp1">
    <inertial>
      <origin rpy="0 0 0" xyz="-0.000249014516100668 -0.00102239026541428 -0.0133818116212472"/>
      <mass value="0.0105278029927928"/>
      <inertia ixx="2.49426973639437E-06" ixy="-4.53009756265879E-08" ixz="6.75736959711176E-08" iyy="2.70040122944883E-06" iyz="-2.88247256637324E-07" izz="2.67368335360225E-06"/>
    </inertial>
    <visual>
      <origin rpy="0 0 0" xyz="0 0 0"/>
      <geometry>
        <mesh filename="./../meshes/gripper-cp1.STL"/>
      </geometry>
      <material name="">
        <color rgba="1 1 1 1"/>
      </material>
    </visual>
    <collision>
      <origin rpy="0 0 0" xyz="0 0 0"/>
      <geometry>
        <mesh filename="./../meshes/gripper-cp1.STL"/>
      </geometry>
    </collision>
  </link>
  <joint name="griphis_3_gripper-cp1" type="fixed">
    <origin rpy="0 0 0" xyz="0 0 0"/>
    <parent link="griphis_3_gripper-cp1"/>
    <child link="griphis_3_roll_1_link"/>
    <axis xyz="-0.0 -0.0 -0.0"/>
  </joint>
  <link name="griphis_3_nailring1-cp1">
    <inertial>
      <origin rpy="0 0 0" xyz="0.000495209639942942 -2.15213012098869E-07 -0.00500225533856013"/>
      <mass value="0.00888435164177016"/>
      <inertia ixx="1.85848970375133E-06" ixy="4.08320407087235E-11" ixz="9.14133574374128E-10" iyy="1.88948158451332E-06" iyz="-1.8157617423749E-12" izz="3.47494887160992E-06"/>
    </inertial>
    <visual>
      <origin rpy="0 0 0" xyz="0 0 0"/>
      <geometry>
        <mesh filename="./../meshes/nailring1-cp1.STL"/>
      </geometry>
      <material name="">
        <color rgba="1 1 1 1"/>
      </material>
    </visual>
    <collision>
      <origin rpy="0 0 0" xyz="0 0 0"/>
      <geometry>
        <mesh filename="./../meshes/nailring1-cp1.STL"/>
      </geometry>
    </collision>
  </link>
  <joint name="griphis_3_nailring1-cp1" type="fixed">
    <origin rpy="1.5707963267948433 -1.5707963267948966 0.0" xyz="-0.0003181980515267614 0.033318198051532834 -0.048100053496672186"/>
    <parent link="griphis_3_roll_1_link"/>
    <child link="griphis_3_nailring1-cp1"/>
    <axis xyz="0 0 0"/>
  </joint>
  <link name="griphis_3_nailring1-cp2">
    <inertial>
      <origin rpy="0 0 0" xyz="0.000495209639943192 -2.15213011856008E-07 -0.00500225533855998"/>
      <mass value="0.00888435164177017"/>
      <inertia ixx="1.85848970375133E-06" ixy="4.08320407083519E-11" ixz="9.1413357437371E-10" iyy="1.88948158451332E-06" iyz="-1.81576174254404E-12" izz="3.47494887160992E-06"/>
    </inertial>
    <visual>
      <origin rpy="0 0 0" xyz="0 0 0"/>
      <geometry>
        <mesh filename="./../meshes/nailring1-cp2.STL"/>
      </geometry>
      <material name="">
        <color rgba="1 1 1 1"/>
      </material>
    </visual>
    <collision>
      <origin rpy="0 0 0" xyz="0 0 0"/>
      <geometry>
        <mesh filename="./../meshes/nailring1-cp2.STL"/>
      </geometry>
    </collision>
  </link>
  <joint name="griphis_3_nailring1-cp2" type="fixed">
    <origin rpy="-5.645484080218921e-14 -1.5707963057214722 0.0" xyz="0.03268180194846475 0.00031819805152834697 -0.048100053496672394"/>
    <parent link="griphis_3_roll_1_link"/>
    <child link="griphis_3_nailring1-cp2"/>
    <axis xyz="0 0 0"/>
  </joint>
  <link name="griphis_3_nailring1-cp3">
    <inertial>
      <origin rpy="0 0 0" xyz="-0.000495209639943185 2.1521301184213E-07 -0.00500225533856018"/>
      <mass value="0.00888435164177015"/>
      <inertia ixx="1.85848970375133E-06" ixy="4.08320407089207E-11" ixz="-9.14133574373382E-10" iyy="1.88948158451332E-06" iyz="1.81576174213503E-12" izz="3.47494887160991E-06"/>
    </inertial>
    <visual>
      <origin rpy="0 0 0" xyz="0 0 0"/>
      <geometry>
        <mesh filename="./../meshes/nailring1-cp3.STL"/>
      </geometry>
      <material name="">
        <color rgba="1 1 1 1"/>
      </material>
    </visual>
    <collision>
      <origin rpy="0 0 0" xyz="0 0 0"/>
      <geometry>
        <mesh filename="./../meshes/nailring1-cp3.STL"/>
      </geometry>
    </collision>
  </link>
  <joint name="griphis_3_nailring1-cp3" type="fixed">
    <origin rpy="-1.5707963267948963 -1.5707963267948966 0.0" xyz="-0.00031819805152674674 -0.03268180194846797 -0.0482999465033276"/>
    <parent link="griphis_3_roll_1_link"/>
    <child link="griphis_3_nailring1-cp3"/>
    <axis xyz="0 0 0"/>
  </joint>
  <link name="griphis_3_nailring1-cp4">
    <inertial>
      <origin rpy="0 0 0" xyz="-0.000495209639943033 2.15213012022542E-07 -0.00500225533856014"/>
      <mass value="0.00888435164177017"/>
      <inertia ixx="1.85848970375133E-06" ixy="4.08320407090649E-11" ixz="-9.14133574373576E-10" iyy="1.88948158451332E-06" iyz="1.81576174274984E-12" izz="3.47494887160992E-06"/>
    </inertial>
    <visual>
      <origin rpy="0 0 0" xyz="0 0 0"/>
      <geometry>
        <mesh filename="./../meshes/nailring1-cp4.STL"/>
      </geometry>
      <material name="">
        <color rgba="1 1 1 1"/>
      </material>
    </visual>
    <collision>
      <origin rpy="0 0 0" xyz="0 0 0"/>
      <geometry>
        <mesh filename="./../meshes/nailring1-cp4.STL"/>
      </geometry>
    </collision>
  </link>
  <joint name="griphis_3_nailring1-cp4" type="fixed">
    <origin rpy="3.14159265358973 -1.5707963057214722 0.0" xyz="-0.03331819805153535 0.00031819805152833233 -0.048099946503327794"/>
    <parent link="griphis_3_roll_1_link"/>
    <child link="griphis_3_nailring1-cp4"/>
    <axis xyz="0 0 0"/>
  </joint>
  <link name="griphis_3_mid_pitch_2_link">
    <inertial>
      <origin rpy="0 0 0" xyz="-0.0327473641033502 -0.0322605669359661 0.000309352298986196"/>
      <mass value="0.0769502016363242"/>
      <inertia ixx="1.72130959551283E-05" ixy="1.01485711646082E-08" ixz="9.64338520342348E-08" iyy="1.36643051799986E-05" iyz="-5.60812725052765E-07" izz="1.63206675803235E-05"/>
    </inertial>
    <visual>
      <origin rpy="0 0 0" xyz="0 0 0"/>
      <geometry>
        <mesh filename="./../meshes/mid_pitch_2_link.STL"/>
      </geometry>
      <material name="">
        <color rgba="0.752941176470588 0.752941176470588 0.752941176470588 1"/>
      </material>
    </visual>
    <collision>
      <origin rpy="0 0 0" xyz="0 0 0"/>
      <geometry>
        <mesh filename="./../meshes/mid_pitch_2_link.STL"/>
      </geometry>
    </collision>
  </link>
  <joint name="griphis_3_mid_pitch_2" type="continuous">
    <origin rpy="0.0 0.0 0.0" xyz="-0.029900000000000003 0.0352000000000001 0.0002100000000035008"/>
    <parent link="griphis_3_base_link"/>
    <child link="griphis_3_mid_pitch_2_link"/>
    <axis xyz="0 -1 0"/>
    <limit effort="3" velocity="10"/>
    <mimic joint="griphis_3_mid_pitch_1" multiplier="1" offset="0"/>
  </joint>
  <link name="griphis_3_pitch_2_link">
    <inertial>
      <origin rpy="0 0 0" xyz="-0.0191893034316743 0.0172315960705706 -0.00342856576323701"/>
      <mass value="0.0105178263834885"/>
      <inertia ixx="5.84801171286379E-07" ixy="3.57321505353334E-09" ixz="-8.81524447786701E-08" iyy="1.04603360596441E-06" iyz="1.51990880905164E-13" izz="9.82964870358905E-07"/>
    </inertial>
    <visual>
      <origin rpy="0 0 0" xyz="0 0 0"/>
      <geometry>
        <mesh filename="./../meshes/pitch_2_link.STL"/>
      </geometry>
      <material name="">
        <color rgba="0.298039215686275 0.298039215686275 0.298039215686275 1"/>
      </material>
    </visual>
    <collision>
      <origin rpy="0 0 0" xyz="0 0 0"/>
      <geometry>
        <mesh filename="./../meshes/pitch_2_link.STL"/>
      </geometry>
    </collision>
  </link>
  <joint name="griphis_3_pitch_2" type="continuous">
    <origin rpy="0 0 0" xyz="-0.0640000000000067 -0.0350999999999972 0"/>
    <parent link="griphis_3_mid_pitch_2_link"/>
    <child link="griphis_3_pitch_2_link"/>
    <axis xyz="0 1 0"/>
    <limit effort="3" velocity="10"/>
  </joint>
  <link name="griphis_3_yaw_2_link">
    <inertial>
      <origin rpy="0 0 0" xyz="-0.00934924449476787 -1.20738749553873E-09 -0.00656570463247875"/>
      <mass value="0.0544536529144548"/>
      <inertia ixx="6.1608306877813E-06" ixy="-1.48630786812854E-08" ixz="-3.66333645918454E-08" iyy="7.36783210634451E-06" iyz="1.48635489875795E-08" izz="7.24407314817233E-06"/>
    </inertial>
    <visual>
      <origin rpy="0 0 0" xyz="0 0 0"/>
      <geometry>
        <mesh filename="./../meshes/yaw_2_link.STL"/>
      </geometry>
      <material name="">
        <color rgba="0.180392156862745 0.180392156862745 0.180392156862745 1"/>
      </material>
    </visual>
    <collision>
      <origin rpy="0 0 0" xyz="0 0 0"/>
      <geometry>
        <mesh filename="./../meshes/yaw_2_link.STL"/>
      </geometry>
    </collision>
  </link>
  <joint name="griphis_3_yaw_2" type="continuous">
    <origin rpy="0 0 0" xyz="-0.0419999999999942 0.0175000000000631 0.0174999999999867"/>
    <parent link="griphis_3_pitch_2_link"/>
    <child link="griphis_3_yaw_2_link"/>
    <axis xyz="0 0 -1"/>
    <limit effort="3" velocity="10"/>
  </joint>
  <link name="griphis_3_roll_2_link">
    <inertial>
      <origin rpy="0 0 0" xyz="-0.0304847934275298 0.000533683595516123 -0.000138763582688578"/>
      <mass value="0.0617238803473503"/>
      <inertia ixx="1.72112591146286E-05" ixy="-2.34655399562003E-07" ixz="-1.72186999812873E-07" iyy="1.09105230206178E-05" iyz="-3.90599560037894E-08" izz="1.62402505711448E-05"/>
    </inertial>
    <visual>
      <origin rpy="0 0 0" xyz="0 0 0"/>
      <geometry>
        <mesh filename="./../meshes/roll_2_link.STL"/>
      </geometry>
      <material name="">
        <color rgba="1 1 1 1"/>
      </material>
    </visual>
    <collision>
      <origin rpy="0 0 0" xyz="0 0 0"/>
      <geometry>
        <mesh filename="./../meshes/roll_2_link.STL"/>
      </geometry>
    </collision>
  </link>
  <joint name="griphis_3_roll_2" type="continuous">
    <origin rpy="0 0 0" xyz="-0.0280000000000042 0 -0.0175000000000007"/>
    <parent link="griphis_3_yaw_2_link"/>
    <child link="griphis_3_roll_2_link"/>
    <axis xyz="-1 0 0"/>
    <limit effort="3" velocity="10"/>
  </joint>
  <link name="griphis_3_worm_2_link">
    <inertial>
      <origin rpy="0 0 0" xyz="-0.00680389920380498 5.66707617536341E-05 3.76180533663562E-06"/>
      <mass value="0.00387257616321651"/>
      <inertia ixx="2.0626455720602E-07" ixy="6.3200237698076E-10" ixz="-1.25909856906162E-09" iyy="1.713062458146E-07" iyz="1.39152999506885E-11" izz="1.71128105557195E-07"/>
    </inertial>
    <visual>
      <origin rpy="0 0 0" xyz="0 0 0"/>
      <geometry>
        <mesh filename="./../meshes/worm_2_link.STL"/>
      </geometry>
      <material name="">
        <color rgba="0.752941176470588 0.752941176470588 0.752941176470588 1"/>
      </material>
    </visual>
    <collision>
      <origin rpy="0 0 0" xyz="0 0 0"/>
      <geometry>
        <mesh filename="./../meshes/worm_2_link.STL"/>
      </geometry>
    </collision>
  </link>
  <joint name="griphis_3_worm_rotate_2" type="continuous">
    <origin rpy="0 0 0" xyz="-0.0470000000000015 0 0"/>
    <parent link="griphis_3_roll_2_link"/>
    <child link="griphis_3_worm_2_link"/>
    <axis xyz="0.737216674660088 0 0.675656402769279"/>
    <limit effort="15" velocity="10"/>
  </joint>
  <link name="griphis_3_nail1_2_link">
    <inertial>
      <origin rpy="0 0 0" xyz="-0.0375115559402153 0.000154761897861344 -0.000927613439127735"/>
      <mass value="0.00785451508753956"/>
      <inertia ixx="3.26792929870324E-07" ixy="-2.23311778394515E-10" ixz="3.04391588566463E-07" iyy="1.76174668735889E-06" iyz="8.72037168507631E-12" izz="1.60467609944963E-06"/>
    </inertial>
    <visual>
      <origin rpy="0 0 0" xyz="0 0 0"/>
      <geometry>
        <mesh filename="./../meshes/nail1_2_link.STL"/>
      </geometry>
      <material name="">
        <color rgba="1 1 1 1"/>
      </material>
    </visual>
    <collision>
      <origin rpy="0 0 0" xyz="0 0 0"/>
      <geometry>
        <mesh filename="./../meshes/nail1_2_link.STL"/>
      </geometry>
    </collision>
  </link>
  <joint name="griphis_3_nail1_rotate_2" type="continuous">
    <origin rpy="0 0 0" xyz="-0.0570000000000014 0 -0.0149999999999872"/>
    <parent link="griphis_3_roll_2_link"/>
    <child link="griphis_3_nail1_2_link"/>
    <axis xyz="0 -1 0"/>
    <mimic joint="griphis_3_worm_rotate_2" multiplier="0.091" offset="0"/>
  </joint>
  <link name="griphis_3_nail2_2_link">
    <inertial>
      <origin rpy="0 0 0" xyz="-0.0375922338704413 0.000920668174601659 0.000149875003347476"/>
      <mass value="0.00783920613274653"/>
      <inertia ixx="3.26764420600132E-07" ixy="-3.0408379603033E-07" ixz="-3.01596352109658E-10" iyy="1.60307023286001E-06" iyz="3.50228545423785E-11" izz="1.76008020337463E-06"/>
    </inertial>
    <visual>
      <origin rpy="0 0 0" xyz="0 0 0"/>
      <geometry>
        <mesh filename="./../meshes/nail2_2_link.STL"/>
      </geometry>
      <material name="">
        <color rgba="0.752941176470588 0.752941176470588 0.752941176470588 1"/>
      </material>
    </visual>
    <collision>
      <origin rpy="0 0 0" xyz="0 0 0"/>
      <geometry>
        <mesh filename="./../meshes/nail2_2_link.STL"/>
      </geometry>
    </collision>
  </link>
  <joint name="griphis_3_nail2_rotate_2" type="continuous">
    <origin rpy="0 0 0" xyz="-0.0570000000000009 0.015 0"/>
    <parent link="griphis_3_roll_2_link"/>
    <child link="griphis_3_nail2_2_link"/>
    <axis xyz="0 0 -1"/>
    <mimic joint="griphis_3_worm_rotate_2" multiplier="0.091" offset="0"/>
  </joint>
  <link name="griphis_3_nail3_2_link">
    <inertial>
      <origin rpy="0 0 0" xyz="-0.0376633576375554 4.50239708458949E-05 0.000912382199144402"/>
      <mass value="0.00782164323980893"/>
      <inertia ixx="3.26387568167086E-07" ixy="1.94469452048084E-10" ixz="-3.03929104031706E-07" iyy="1.75640452707709E-06" iyz="1.77166863189614E-11" izz="1.59916689354222E-06"/>
    </inertial>
    <visual>
      <origin rpy="0 0 0" xyz="0 0 0"/>
      <geometry>
        <mesh filename="./../meshes/nail3_2_link.STL"/>
      </geometry>
      <material name="">
        <color rgba="0.752941176470588 0.752941176470588 0.752941176470588 1"/>
      </material>
    </visual>
    <collision>
      <origin rpy="0 0 0" xyz="0 0 0"/>
      <geometry>
        <mesh filename="./../meshes/nail3_2_link.STL"/>
      </geometry>
    </collision>
  </link>
  <joint name="griphis_3_nail3_rotate_2" type="continuous">
    <origin rpy="0 0 0" xyz="-0.0570000000000004 0 0.0150000000000128"/>
    <parent link="griphis_3_roll_2_link"/>
    <child link="griphis_3_nail3_2_link"/>
    <axis xyz="0 1 0"/>
    <mimic joint="griphis_3_worm_rotate_2" multiplier="0.091" offset="0"/>
  </joint>
  <link name="griphis_3_nail4_2_link">
    <inertial>
      <origin rpy="0 0 0" xyz="-0.0376199045292857 -0.000916237603655147 -0.000157293429422369"/>
      <mass value="0.00783130292561298"/>
      <inertia ixx="3.26490723468276E-07" ixy="3.03988593137378E-07" ixz="4.37077734057104E-10" iyy="1.60061195688436E-06" iyz="-2.94387192594929E-11" izz="1.75778452318202E-06"/>
    </inertial>
    <visual>
      <origin rpy="0 0 0" xyz="0 0 0"/>
      <geometry>
        <mesh filename="./../meshes/nail4_2_link.STL"/>
      </geometry>
      <material name="">
        <color rgba="0.752941176470588 0.752941176470588 0.752941176470588 1"/>
      </material>
    </visual>
    <collision>
      <origin rpy="0 0 0" xyz="0 0 0"/>
      <geometry>
        <mesh filename="./../meshes/nail4_2_link.STL"/>
      </geometry>
    </collision>
  </link>
  <joint name="griphis_3_nail4_rotate_2" type="continuous">
    <origin rpy="0 0 0" xyz="-0.0570000000000017 -0.0149999999999955 0"/>
    <parent link="griphis_3_roll_2_link"/>
    <child link="griphis_3_nail4_2_link"/>
    <axis xyz="0 0 1"/>
    <mimic joint="griphis_3_worm_rotate_2" multiplier="0.091" offset="0"/>
  </joint>
  <link name="griphis_3_nail-cp2">
    <inertial>
      <origin rpy="0 0 0" xyz="0.000615813357965365 -0.00061581335794697 -0.0658092329631574"/>
      <mass value="0.00115853870137781"/>
      <inertia ixx="1.05682260080874E-07" ixy="-1.5764583148907E-09" ixz="-7.53303890952508E-11" iyy="1.05682260080874E-07" iyz="7.53303890920378E-11" izz="2.10812763376632E-07"/>
    </inertial>
    <visual>
      <origin rpy="0 0 0" xyz="0 0 0"/>
      <geometry>
        <mesh filename="./../meshes/nail-cp2.STL"/>
      </geometry>
      <material name="">
        <color rgba="0.796078431372549 0.823529411764706 0.937254901960784 1"/>
      </material>
    </visual>
    <collision>
      <origin rpy="0 0 0" xyz="0 0 0"/>
      <geometry>
        <mesh filename="./../meshes/nail-cp2.STL"/>
      </geometry>
    </collision>
  </link>
  <joint name="griphis_3_nail-cp2" type="fixed">
    <origin rpy="-1.5707963267949 0 1.5707963267949" xyz="-0.141700000000001 -0.000318198051535531 -0.00031819805151536"/>
    <parent link="griphis_3_roll_2_link"/>
    <child link="griphis_3_nail-cp2"/>
    <axis xyz="0 0 0"/>
  </joint>
  <link name="griphis_3_gripper-cp2">
    <inertial>
      <origin rpy="0 0 0" xyz="0.000249014516096963 -0.00102239026539895 0.0133818116212488"/>
      <mass value="0.0105278029927927"/>
      <inertia ixx="2.49426973639434E-06" ixy="4.53009756265701E-08" ixz="6.75736959710746E-08" iyy="2.70040122944888E-06" iyz="2.88247256637327E-07" izz="2.67368335360219E-06"/>
    </inertial>
    <visual>
      <origin rpy="0 0 0" xyz="0 0 0"/>
      <geometry>
        <mesh filename="./../meshes/gripper-cp2.STL"/>
      </geometry>
      <material name="">
        <color rgba="1 1 1 1"/>
      </material>
    </visual>
    <collision>
      <origin rpy="0 0 0" xyz="0 0 0"/>
      <geometry>
        <mesh filename="./../meshes/gripper-cp2.STL"/>
      </geometry>
    </collision>
  </link>
  <joint name="griphis_3_gripper-cp2" type="fixed">
    <origin rpy="-1.57079632679485 0 -1.57079632679489" xyz="-0.0766999999999999 -0.000318198051539618 -0.000318198051517046"/>
    <parent link="griphis_3_roll_2_link"/>
    <child link="griphis_3_gripper-cp2"/>
    <axis xyz="0 0 0"/>
  </joint>
  <link name="griphis_3_nailring2-cp1">
    <inertial>
      <origin rpy="0 0 0" xyz="0.000495209639943872 -2.15213011231508E-07 -0.0050022553385601"/>
      <mass value="0.00888435164177013"/>
      <inertia ixx="1.85848970375132E-06" ixy="4.08320407075244E-11" ixz="9.14133574374455E-10" iyy="1.88948158451332E-06" iyz="-1.81576174187697E-12" izz="3.47494887160991E-06"/>
    </inertial>
    <visual>
      <origin rpy="0 0 0" xyz="0 0 0"/>
      <geometry>
        <mesh filename="./../meshes/nailring2-cp1.STL"/>
      </geometry>
      <material name="">
        <color rgba="1 1 1 1"/>
      </material>
    </visual>
    <collision>
      <origin rpy="0 0 0" xyz="0 0 0"/>
      <geometry>
        <mesh filename="./../meshes/nailring2-cp1.STL"/>
      </geometry>
    </collision>
  </link>
  <joint name="griphis_3_nailring2-cp1" type="fixed">
    <origin rpy="3.14159265358978 0 -3.14159238847494" xyz="-0.0285999465033246 0 0.0330000000000001"/>
    <parent link="griphis_3_roll_2_link"/>
    <child link="griphis_3_nailring2-cp1"/>
    <axis xyz="0 0 0"/>
  </joint>
  <link name="griphis_3_nailring2-cp2">
    <inertial>
      <origin rpy="0 0 0" xyz="0.000495209639942984 -2.15213012050297E-07 -0.00500225533856015"/>
      <mass value="0.00888435164177019"/>
      <inertia ixx="1.85848970375134E-06" ixy="4.08320407074391E-11" ixz="9.14133574373919E-10" iyy="1.88948158451332E-06" iyz="-1.81576174216739E-12" izz="3.47494887160993E-06"/>
    </inertial>
    <visual>
      <origin rpy="0 0 0" xyz="0 0 0"/>
      <geometry>
        <mesh filename="./../meshes/nailring2-cp2.STL"/>
      </geometry>
      <material name="">
        <color rgba="1 1 1 1"/>
      </material>
    </visual>
    <collision>
      <origin rpy="0 0 0" xyz="0 0 0"/>
      <geometry>
        <mesh filename="./../meshes/nailring2-cp2.STL"/>
      </geometry>
    </collision>
  </link>
  <joint name="griphis_3_nailring2-cp2" type="fixed">
    <origin rpy="1.57079632679488 0 3.14159265358979" xyz="-0.0285999465033264 -0.0330000000000002 0"/>
    <parent link="griphis_3_roll_2_link"/>
    <child link="griphis_3_nailring2-cp2"/>
    <axis xyz="0 0 0"/>
  </joint>
  <link name="griphis_3_nailring2-cp3">
    <inertial>
      <origin rpy="0 0 0" xyz="-0.000495209639942817 2.15213012078053E-07 -0.00500225533856008"/>
      <mass value="0.00888435164177013"/>
      <inertia ixx="1.85848970375132E-06" ixy="4.08320407098813E-11" ixz="-9.14133574373917E-10" iyy="1.88948158451331E-06" iyz="1.81576173997682E-12" izz="3.4749488716099E-06"/>
    </inertial>
    <visual>
      <origin rpy="0 0 0" xyz="0 0 0"/>
      <geometry>
        <mesh filename="./../meshes/nailring2-cp3.STL"/>
      </geometry>
      <material name="">
        <color rgba="1 1 1 1"/>
      </material>
    </visual>
    <collision>
      <origin rpy="0 0 0" xyz="0 0 0"/>
      <geometry>
        <mesh filename="./../meshes/nailring2-cp3.STL"/>
      </geometry>
    </collision>
  </link>
  <joint name="griphis_3_nailring2-cp3" type="fixed">
    <origin rpy="0 0 3.14159238847493" xyz="-0.0284000534966716 0 -0.0330000000000008"/>
    <parent link="griphis_3_roll_2_link"/>
    <child link="griphis_3_nailring2-cp3"/>
    <axis xyz="0 0 0"/>
  </joint>
  <link name="griphis_3_nailring2-cp4">
    <inertial>
      <origin rpy="0 0 0" xyz="-0.000495209639943039 2.15213012015603E-07 -0.00500225533856"/>
      <mass value="0.00888435164177014"/>
      <inertia ixx="1.85848970375133E-06" ixy="4.08320407107192E-11" ixz="-9.14133574373996E-10" iyy="1.88948158451331E-06" iyz="1.81576174170535E-12" izz="3.47494887160991E-06"/>
    </inertial>
    <visual>
      <origin rpy="0 0 0" xyz="0 0 0"/>
      <geometry>
        <mesh filename="./../meshes/nailring2-cp4.STL"/>
      </geometry>
      <material name="">
        <color rgba="1 1 1 1"/>
      </material>
    </visual>
    <collision>
      <origin rpy="0 0 0" xyz="0 0 0"/>
      <geometry>
        <mesh filename="./../meshes/nailring2-cp4.STL"/>
      </geometry>
    </collision>
  </link>
  <joint name="griphis_3_nailring2-cp4" type="fixed">
    <origin rpy="-1.57079632679492 0 3.14159265358979" xyz="-0.0286000534966706 0.0329999999999998 0"/>
    <parent link="griphis_3_roll_2_link"/>
    <child link="griphis_3_nailring2-cp4"/>
    <axis xyz="0 0 0"/>
  </joint>
  <joint name="griphis_4_gripper-cp1_to_griphis_0_nailring2-cp4_joint" type="fixed">
    <parent link="griphis_0_nailring2-cp4"/>
    <child link="griphis_4_gripper-cp1"/>
    <origin rpy="0 0 3.14" xyz="0 0 -0.07"/>
  </joint>
  <link name="griphis_4_base_link">
    <inertial>
      <origin rpy="0 0 0" xyz="-0.00010264257406678 3.31727350517397E-05 -0.00495518296571391"/>
      <mass value="0.0797462541060097"/>
      <inertia ixx="8.57012114371153E-06" ixy="1.08293491537705E-08" ixz="-5.94275788505759E-09" iyy="1.05158543807875E-05" iyz="1.10583333432373E-08" izz="1.08869595154247E-05"/>
    </inertial>
    <visual>
      <origin rpy="0.0 -0.0 0.0" xyz="-0.0148999999999995 0.0176000000000318 0.0109999999999849"/>
      <geometry>
        <mesh filename="./../meshes/base_link.STL"/>
      </geometry>
      <material name="">
        <color rgba="0.752941176470588 0.752941176470588 0.752941176470588 1"/>
      </material>
    </visual>
    <collision>
      <origin rpy="0.0 -0.0 0.0" xyz="-0.0148999999999995 0.0176000000000318 0.0109999999999849"/>
      <geometry>
        <mesh filename="./../meshes/base_link.STL"/>
      </geometry>
    </collision>
  </link>
  <link name="griphis_4_mid_pitch_1_link">
    <inertial>
      <origin rpy="0 0 0" xyz="0.0327517154872403 0.0322634011493343 0.000309410745622088"/>
      <mass value="0.0769353285466722"/>
      <inertia ixx="1.72122749770761E-05" ixy="1.01496940835006E-08" ixz="-9.64331189423188E-08" iyy="1.36641198773196E-05" iyz="5.60814889063421E-07" izz="1.63211688368785E-05"/>
    </inertial>
    <visual>
      <origin rpy="0.0 -0.0 0.0" xyz="-0.0640000000000069 -0.0350999999999983 -0.0"/>
      <geometry>
        <mesh filename="./../meshes/mid_pitch_1_link.STL"/>
      </geometry>
      <material name="">
        <color rgba="0.752941176470588 0.752941176470588 0.752941176470588 1"/>
      </material>
    </visual>
    <collision>
      <origin rpy="0.0 -0.0 0.0" xyz="-0.0640000000000069 -0.0350999999999983 -0.0"/>
      <geometry>
        <mesh filename="./../meshes/mid_pitch_1_link.STL"/>
      </geometry>
    </collision>
  </link>
  <joint name="griphis_4_mid_pitch_1" type="continuous">
    <origin rpy="0.0 -0.0 0.0" xyz="-0.0640000000000069 -0.0350999999999983 -0.0"/>
    <parent link="griphis_4_mid_pitch_1_link"/>
    <child link="griphis_4_base_link"/>
    <axis xyz="-0.0 -1.0 -0.0"/>
    <limit effort="3" velocity="10"/>
  </joint>
  <link name="griphis_4_pitch_1_link">
    <inertial>
      <origin rpy="0 0 0" xyz="0.0191893034316777 -0.017231596070573 -0.00342856576321433"/>
      <mass value="0.0105178263834885"/>
      <inertia ixx="5.84801171286377E-07" ixy="3.57321505354626E-09" ixz="8.8152444778668E-08" iyy="1.04603360596441E-06" iyz="-1.51990885783075E-13" izz="9.82964870358909E-07"/>
    </inertial>
    <visual>
      <origin rpy="0.0 -0.0 0.0" xyz="-0.0420000000000015 0.0175000000000007 -0.0174999999999981"/>
      <geometry>
        <mesh filename="./../meshes/pitch_1_link.STL"/>
      </geometry>
      <material name="">
        <color rgba="0.298039215686275 0.298039215686275 0.298039215686275 1"/>
      </material>
    </visual>
    <collision>
      <origin rpy="0.0 -0.0 0.0" xyz="-0.0420000000000015 0.0175000000000007 -0.0174999999999981"/>
      <geometry>
        <mesh filename="./../meshes/pitch_1_link.STL"/>
      </geometry>
    </collision>
  </link>
  <joint name="griphis_4_pitch_1" type="continuous">
    <origin rpy="0.0 -0.0 0.0" xyz="-0.0420000000000015 0.0175000000000007 -0.0174999999999981"/>
    <parent link="griphis_4_pitch_1_link"/>
    <child link="griphis_4_mid_pitch_1_link"/>
    <axis xyz="-0.0 -1.0 -0.0"/>
    <limit effort="3" velocity="10"/>
  </joint>
  <link name="griphis_4_yaw_1_link">
    <inertial>
      <origin rpy="0 0 0" xyz="0.00934924439107056 -1.17000596711048E-10 -0.0065657034112081"/>
      <mass value="0.0544535701857151"/>
      <inertia ixx="6.16082295678474E-06" ixy="-1.48642619322733E-08" ixz="3.66332313625793E-08" iyy="7.36782974228272E-06" iyz="-1.48634431569832E-08" izz="7.24406343523596E-06"/>
    </inertial>
    <visual>
      <origin rpy="0.0 -0.0 0.0" xyz="-0.0279999999999981 -0.0 0.0175000000000002"/>
      <geometry>
        <mesh filename="./../meshes/yaw_1_link.STL"/>
      </geometry>
      <material name="">
        <color rgba="0.180392156862745 0.180392156862745 0.180392156862745 1"/>
      </material>
    </visual>
    <collision>
      <origin rpy="0.0 -0.0 0.0" xyz="-0.0279999999999981 -0.0 0.0175000000000002"/>
      <geometry>
        <mesh filename="./../meshes/yaw_1_link.STL"/>
      </geometry>
    </collision>
  </link>
  <joint name="griphis_4_yaw_1" type="continuous">
    <origin rpy="0.0 -0.0 0.0" xyz="-0.0279999999999981 -0.0 0.0175000000000002"/>
    <parent link="griphis_4_yaw_1_link"/>
    <child link="griphis_4_pitch_1_link"/>
    <axis xyz="-0.0 -0.0 1.0"/>
    <limit effort="3" velocity="10"/>
  </joint>
  <link name="griphis_4_roll_1_link">
    <inertial>
      <origin rpy="0 0 0" xyz="0.0304847934275313 -0.000533683595524997 -0.000138763582684304"/>
      <mass value="0.0617238803473503"/>
      <inertia ixx="1.72112591146286E-05" ixy="-2.34655399562005E-07" ixz="1.72186999812855E-07" iyy="1.09105230206178E-05" iyz="3.90599560040266E-08" izz="1.62402505711448E-05"/>
    </inertial>
    <visual>
      <origin rpy="0.0 -1.5707963267948966 -1.5707963267948966" xyz="-0.00031819805152675406 0.000318198051528346 -0.0766999999999999"/>
      <geometry>
        <mesh filename="./../meshes/roll_1_link.STL"/>
      </geometry>
      <material name="">
        <color rgba="1 1 1 1"/>
      </material>
    </visual>
    <collision>
      <origin rpy="0.0 -1.5707963267948966 -1.5707963267948966" xyz="-0.00031819805152675406 0.000318198051528346 -0.0766999999999999"/>
      <geometry>
        <mesh filename="./../meshes/roll_1_link.STL"/>
      </geometry>
    </collision>
  </link>
  <joint name="griphis_4_roll_1" type="continuous">
    <origin rpy="0.0 -1.5707963267948966 -1.5707963267948966" xyz="-0.00031819805152675406 0.000318198051528346 -0.0766999999999999"/>
    <parent link="griphis_4_roll_1_link"/>
    <child link="griphis_4_yaw_1_link"/>
    <axis xyz="1.0 -0.0 -0.0"/>
    <limit effort="3" velocity="10"/>
  </joint>
  <link name="griphis_4_worm_1_link">
    <inertial>
      <origin rpy="0 0 0" xyz="0.00680389923417661 1.29536242400655E-05 5.52986221441856E-05"/>
      <mass value="0.00387257618784269"/>
      <inertia ixx="2.06264558567859E-07" ixy="1.13917098659222E-09" ixz="-8.28881114232565E-10" iyy="1.7113732321225E-07" iyz="4.18404893657738E-11" izz="1.71297030362022E-07"/>
    </inertial>
    <visual>
      <origin rpy="0 0 0" xyz="0 0 0"/>
      <geometry>
        <mesh filename="./../meshes/worm_1_link.STL"/>
      </geometry>
      <material name="">
        <color rgba="0.752941176470588 0.752941176470588 0.752941176470588 1"/>
      </material>
    </visual>
    <collision>
      <origin rpy="0 0 0" xyz="0 0 0"/>
      <geometry>
        <mesh filename="./../meshes/worm_1_link.STL"/>
      </geometry>
    </collision>
  </link>
  <joint name="griphis_4_worm_rotate_1" type="continuous">
    <origin rpy="-1.5707963267948963 -1.5707963267948966 0.0" xyz="-0.00031819805152675406 0.00031819805152833553 -0.02969999999999999"/>
    <parent link="griphis_4_roll_1_link"/>
    <child link="griphis_4_worm_1_link"/>
    <axis xyz="1 0 0"/>
    <limit effort="15" velocity="10"/>
  </joint>
  <link name="griphis_4_nail1_1_link">
    <inertial>
      <origin rpy="0 0 0" xyz="0.0375115559402243 -4.52381021421033E-05 0.000927613439051046"/>
      <mass value="0.00785451508753953"/>
      <inertia ixx="3.26792929870295E-07" ixy="2.23311778369799E-10" ixz="3.04391588566406E-07" iyy="1.76174668735888E-06" iyz="-8.7203716693621E-12" izz="1.60467609944965E-06"/>
    </inertial>
    <visual>
      <origin rpy="0 0 0" xyz="0 0 0"/>
      <geometry>
        <mesh filename="./../meshes/nail1_1_link.STL"/>
      </geometry>
      <material name="">
        <color rgba="1 1 1 1"/>
      </material>
    </visual>
    <collision>
      <origin rpy="0 0 0" xyz="0 0 0"/>
      <geometry>
        <mesh filename="./../meshes/nail1_1_link.STL"/>
      </geometry>
    </collision>
  </link>
  <joint name="griphis_4_nail1_rotate_1" type="continuous">
    <origin rpy="1.5707963267948433 -1.5707963267948966 0.0" xyz="-0.00031819805152675075 -0.014681801948467067 -0.019699999999999995"/>
    <parent link="griphis_4_roll_1_link"/>
    <child link="griphis_4_nail1_1_link"/>
    <axis xyz="0 -1 0"/>
    <mimic joint="griphis_4_worm_rotate_1" multiplier="0.091" offset="0"/>
  </joint>
  <link name="griphis_4_nail2_1_link">
    <inertial>
      <origin rpy="0 0 0" xyz="0.0375922338704431 -0.000920668174592305 -5.01249966510589E-05"/>
      <mass value="0.00783920613274618"/>
      <inertia ixx="3.26764420600123E-07" ixy="-3.04083796030301E-07" ixz="3.01596352148099E-10" iyy="1.60307023285989E-06" iyz="-3.50228545349602E-11" izz="1.7600802033745E-06"/>
    </inertial>
    <visual>
      <origin rpy="0 0 0" xyz="0 0 0"/>
      <geometry>
        <mesh filename="./../meshes/nail2_1_link.STL"/>
      </geometry>
      <material name="">
        <color rgba="0.752941176470588 0.752941176470588 0.752941176470588 1"/>
      </material>
    </visual>
    <collision>
      <origin rpy="0 0 0" xyz="0 0 0"/>
      <geometry>
        <mesh filename="./../meshes/nail2_1_link.STL"/>
      </geometry>
    </collision>
  </link>
  <joint name="griphis_4_nail2_rotate_1" type="continuous">
    <origin rpy="-1.5707963267948963 -1.5707963267948966 0.0" xyz="-0.015318198051535455 0.00031819805152833 -0.019699999999999995"/>
    <parent link="griphis_4_roll_1_link"/>
    <child link="griphis_4_nail2_1_link"/>
    <axis xyz="0 0 -1"/>
    <mimic joint="griphis_4_worm_rotate_1" multiplier="0.091" offset="0"/>
  </joint>
  <link name="griphis_4_nail3_1_link">
    <inertial>
      <origin rpy="0 0 0" xyz="0.0376633576375596 -4.50239708446043E-05 0.000912382199221681"/>
      <mass value="0.00782164323980883"/>
      <inertia ixx="3.26387568167113E-07" ixy="1.94469452026803E-10" ixz="3.03929104031752E-07" iyy="1.75640452707706E-06" iyz="-1.77166863072923E-11" izz="1.59916689354216E-06"/>
    </inertial>
    <visual>
      <origin rpy="0 0 0" xyz="0 0 0"/>
      <geometry>
        <mesh filename="./../meshes/nail3_1_link.STL"/>
      </geometry>
      <material name="">
        <color rgba="0.752941176470588 0.752941176470588 0.752941176470588 1"/>
      </material>
    </visual>
    <collision>
      <origin rpy="0 0 0" xyz="0 0 0"/>
      <geometry>
        <mesh filename="./../meshes/nail3_1_link.STL"/>
      </geometry>
    </collision>
  </link>
  <joint name="griphis_4_nail3_rotate_1" type="continuous">
    <origin rpy="-1.5707963267948963 -1.5707963267948966 0.0" xyz="-0.00031819805152675737 0.015318198051532934 -0.019700000000000092"/>
    <parent link="griphis_4_roll_1_link"/>
    <child link="griphis_4_nail3_1_link"/>
    <axis xyz="0 -1 0"/>
    <mimic joint="griphis_4_worm_rotate_1" multiplier="0.091" offset="0"/>
  </joint>
  <link name="griphis_4_nail4_1_link">
    <inertial>
      <origin rpy="0 0 0" xyz="0.0376199045292883 0.000916237603659741 4.27065705779009E-05"/>
      <mass value="0.00783130292561273"/>
      <inertia ixx="3.26490723468266E-07" ixy="3.0398859313737E-07" ixz="-4.37077734142467E-10" iyy="1.60061195688429E-06" iyz="2.94387193060157E-11" izz="1.75778452318195E-06"/>
    </inertial>
    <visual>
      <origin rpy="0 0 0" xyz="0 0 0"/>
      <geometry>
        <mesh filename="./../meshes/nail4_1_link.STL"/>
      </geometry>
      <material name="">
        <color rgba="0.752941176470588 0.752941176470588 0.752941176470588 1"/>
      </material>
    </visual>
    <collision>
      <origin rpy="0 0 0" xyz="0 0 0"/>
      <geometry>
        <mesh filename="./../meshes/nail4_1_link.STL"/>
      </geometry>
    </collision>
  </link>
  <joint name="griphis_4_nail4_rotate_1" type="continuous">
    <origin rpy="-1.5707963267948963 -1.5707963267948966 0.0" xyz="0.014681801948464546 0.00031819805152833667 -0.019699999999999995"/>
    <parent link="griphis_4_roll_1_link"/>
    <child link="griphis_4_nail4_1_link"/>
    <axis xyz="0 0 1"/>
    <mimic joint="griphis_4_worm_rotate_1" multiplier="0.091" offset="0"/>
  </joint>
  <link name="griphis_4_nail-cp1">
    <inertial>
      <origin rpy="0 0 0" xyz="-2.058274506931E-05 -0.000405813357968389 -0.0658092329631552"/>
      <mass value="0.0011585387013778"/>
      <inertia ixx="1.05682260080874E-07" ixy="-1.5764583148915E-09" ixz="-7.53303890952621E-11" iyy="1.05682260080874E-07" iyz="7.53303890952626E-11" izz="2.1081276337663E-07"/>
    </inertial>
    <visual>
      <origin rpy="0 0 0" xyz="0 0 0"/>
      <geometry>
        <mesh filename="./../meshes/nail-cp1.STL"/>
      </geometry>
      <material name="">
        <color rgba="1 1 1 1"/>
      </material>
    </visual>
    <collision>
      <origin rpy="0 0 0" xyz="0 0 0"/>
      <geometry>
        <mesh filename="./../meshes/nail-cp1.STL"/>
      </geometry>
    </collision>
  </link>
  <joint name="griphis_4_nail-cp1" type="fixed">
    <origin rpy="6.4948046940571666e-15 3.774758283725532e-15 -3.141592653589793" xyz="-0.000636396103034807 0.00020999999999474846 0.0650000000000001"/>
    <parent link="griphis_4_roll_1_link"/>
    <child link="griphis_4_nail-cp1"/>
    <axis xyz="0 0 0"/>
  </joint>
  <link name="griphis_4_gripper-cp1">
    <inertial>
      <origin rpy="0 0 0" xyz="-0.000249014516100668 -0.00102239026541428 -0.0133818116212472"/>
      <mass value="0.0105278029927928"/>
      <inertia ixx="2.49426973639437E-06" ixy="-4.53009756265879E-08" ixz="6.75736959711176E-08" iyy="2.70040122944883E-06" iyz="-2.88247256637324E-07" izz="2.67368335360225E-06"/>
    </inertial>
    <visual>
      <origin rpy="0 0 0" xyz="0 0 0"/>
      <geometry>
        <mesh filename="./../meshes/gripper-cp1.STL"/>
      </geometry>
      <material name="">
        <color rgba="1 1 1 1"/>
      </material>
    </visual>
    <collision>
      <origin rpy="0 0 0" xyz="0 0 0"/>
      <geometry>
        <mesh filename="./../meshes/gripper-cp1.STL"/>
      </geometry>
    </collision>
  </link>
  <joint name="griphis_4_gripper-cp1" type="fixed">
    <origin rpy="0 0 0" xyz="0 0 0"/>
    <parent link="griphis_4_gripper-cp1"/>
    <child link="griphis_4_roll_1_link"/>
    <axis xyz="-0.0 -0.0 -0.0"/>
  </joint>
  <link name="griphis_4_nailring1-cp1">
    <inertial>
      <origin rpy="0 0 0" xyz="0.000495209639942942 -2.15213012098869E-07 -0.00500225533856013"/>
      <mass value="0.00888435164177016"/>
      <inertia ixx="1.85848970375133E-06" ixy="4.08320407087235E-11" ixz="9.14133574374128E-10" iyy="1.88948158451332E-06" iyz="-1.8157617423749E-12" izz="3.47494887160992E-06"/>
    </inertial>
    <visual>
      <origin rpy="0 0 0" xyz="0 0 0"/>
      <geometry>
        <mesh filename="./../meshes/nailring1-cp1.STL"/>
      </geometry>
      <material name="">
        <color rgba="1 1 1 1"/>
      </material>
    </visual>
    <collision>
      <origin rpy="0 0 0" xyz="0 0 0"/>
      <geometry>
        <mesh filename="./../meshes/nailring1-cp1.STL"/>
      </geometry>
    </collision>
  </link>
  <joint name="griphis_4_nailring1-cp1" type="fixed">
    <origin rpy="1.5707963267948433 -1.5707963267948966 0.0" xyz="-0.0003181980515267614 0.033318198051532834 -0.048100053496672186"/>
    <parent link="griphis_4_roll_1_link"/>
    <child link="griphis_4_nailring1-cp1"/>
    <axis xyz="0 0 0"/>
  </joint>
  <link name="griphis_4_nailring1-cp2">
    <inertial>
      <origin rpy="0 0 0" xyz="0.000495209639943192 -2.15213011856008E-07 -0.00500225533855998"/>
      <mass value="0.00888435164177017"/>
      <inertia ixx="1.85848970375133E-06" ixy="4.08320407083519E-11" ixz="9.1413357437371E-10" iyy="1.88948158451332E-06" iyz="-1.81576174254404E-12" izz="3.47494887160992E-06"/>
    </inertial>
    <visual>
      <origin rpy="0 0 0" xyz="0 0 0"/>
      <geometry>
        <mesh filename="./../meshes/nailring1-cp2.STL"/>
      </geometry>
      <material name="">
        <color rgba="1 1 1 1"/>
      </material>
    </visual>
    <collision>
      <origin rpy="0 0 0" xyz="0 0 0"/>
      <geometry>
        <mesh filename="./../meshes/nailring1-cp2.STL"/>
      </geometry>
    </collision>
  </link>
  <joint name="griphis_4_nailring1-cp2" type="fixed">
    <origin rpy="-5.645484080218921e-14 -1.5707963057214722 0.0" xyz="0.03268180194846475 0.00031819805152834697 -0.048100053496672394"/>
    <parent link="griphis_4_roll_1_link"/>
    <child link="griphis_4_nailring1-cp2"/>
    <axis xyz="0 0 0"/>
  </joint>
  <link name="griphis_4_nailring1-cp3">
    <inertial>
      <origin rpy="0 0 0" xyz="-0.000495209639943185 2.1521301184213E-07 -0.00500225533856018"/>
      <mass value="0.00888435164177015"/>
      <inertia ixx="1.85848970375133E-06" ixy="4.08320407089207E-11" ixz="-9.14133574373382E-10" iyy="1.88948158451332E-06" iyz="1.81576174213503E-12" izz="3.47494887160991E-06"/>
    </inertial>
    <visual>
      <origin rpy="0 0 0" xyz="0 0 0"/>
      <geometry>
        <mesh filename="./../meshes/nailring1-cp3.STL"/>
      </geometry>
      <material name="">
        <color rgba="1 1 1 1"/>
      </material>
    </visual>
    <collision>
      <origin rpy="0 0 0" xyz="0 0 0"/>
      <geometry>
        <mesh filename="./../meshes/nailring1-cp3.STL"/>
      </geometry>
    </collision>
  </link>
  <joint name="griphis_4_nailring1-cp3" type="fixed">
    <origin rpy="-1.5707963267948963 -1.5707963267948966 0.0" xyz="-0.00031819805152674674 -0.03268180194846797 -0.0482999465033276"/>
    <parent link="griphis_4_roll_1_link"/>
    <child link="griphis_4_nailring1-cp3"/>
    <axis xyz="0 0 0"/>
  </joint>
  <link name="griphis_4_nailring1-cp4">
    <inertial>
      <origin rpy="0 0 0" xyz="-0.000495209639943033 2.15213012022542E-07 -0.00500225533856014"/>
      <mass value="0.00888435164177017"/>
      <inertia ixx="1.85848970375133E-06" ixy="4.08320407090649E-11" ixz="-9.14133574373576E-10" iyy="1.88948158451332E-06" iyz="1.81576174274984E-12" izz="3.47494887160992E-06"/>
    </inertial>
    <visual>
      <origin rpy="0 0 0" xyz="0 0 0"/>
      <geometry>
        <mesh filename="./../meshes/nailring1-cp4.STL"/>
      </geometry>
      <material name="">
        <color rgba="1 1 1 1"/>
      </material>
    </visual>
    <collision>
      <origin rpy="0 0 0" xyz="0 0 0"/>
      <geometry>
        <mesh filename="./../meshes/nailring1-cp4.STL"/>
      </geometry>
    </collision>
  </link>
  <joint name="griphis_4_nailring1-cp4" type="fixed">
    <origin rpy="3.14159265358973 -1.5707963057214722 0.0" xyz="-0.03331819805153535 0.00031819805152833233 -0.048099946503327794"/>
    <parent link="griphis_4_roll_1_link"/>
    <child link="griphis_4_nailring1-cp4"/>
    <axis xyz="0 0 0"/>
  </joint>
  <link name="griphis_4_mid_pitch_2_link">
    <inertial>
      <origin rpy="0 0 0" xyz="-0.0327473641033502 -0.0322605669359661 0.000309352298986196"/>
      <mass value="0.0769502016363242"/>
      <inertia ixx="1.72130959551283E-05" ixy="1.01485711646082E-08" ixz="9.64338520342348E-08" iyy="1.36643051799986E-05" iyz="-5.60812725052765E-07" izz="1.63206675803235E-05"/>
    </inertial>
    <visual>
      <origin rpy="0 0 0" xyz="0 0 0"/>
      <geometry>
        <mesh filename="./../meshes/mid_pitch_2_link.STL"/>
      </geometry>
      <material name="">
        <color rgba="0.752941176470588 0.752941176470588 0.752941176470588 1"/>
      </material>
    </visual>
    <collision>
      <origin rpy="0 0 0" xyz="0 0 0"/>
      <geometry>
        <mesh filename="./../meshes/mid_pitch_2_link.STL"/>
      </geometry>
    </collision>
  </link>
  <joint name="griphis_4_mid_pitch_2" type="continuous">
    <origin rpy="0.0 0.0 0.0" xyz="-0.029900000000000003 0.0352000000000001 0.0002100000000035008"/>
    <parent link="griphis_4_base_link"/>
    <child link="griphis_4_mid_pitch_2_link"/>
    <axis xyz="0 -1 0"/>
    <limit effort="3" velocity="10"/>
    <mimic joint="griphis_4_mid_pitch_1" multiplier="1" offset="0"/>
  </joint>
  <link name="griphis_4_pitch_2_link">
    <inertial>
      <origin rpy="0 0 0" xyz="-0.0191893034316743 0.0172315960705706 -0.00342856576323701"/>
      <mass value="0.0105178263834885"/>
      <inertia ixx="5.84801171286379E-07" ixy="3.57321505353334E-09" ixz="-8.81524447786701E-08" iyy="1.04603360596441E-06" iyz="1.51990880905164E-13" izz="9.82964870358905E-07"/>
    </inertial>
    <visual>
      <origin rpy="0 0 0" xyz="0 0 0"/>
      <geometry>
        <mesh filename="./../meshes/pitch_2_link.STL"/>
      </geometry>
      <material name="">
        <color rgba="0.298039215686275 0.298039215686275 0.298039215686275 1"/>
      </material>
    </visual>
    <collision>
      <origin rpy="0 0 0" xyz="0 0 0"/>
      <geometry>
        <mesh filename="./../meshes/pitch_2_link.STL"/>
      </geometry>
    </collision>
  </link>
  <joint name="griphis_4_pitch_2" type="continuous">
    <origin rpy="0 0 0" xyz="-0.0640000000000067 -0.0350999999999972 0"/>
    <parent link="griphis_4_mid_pitch_2_link"/>
    <child link="griphis_4_pitch_2_link"/>
    <axis xyz="0 1 0"/>
    <limit effort="3" velocity="10"/>
  </joint>
  <link name="griphis_4_yaw_2_link">
    <inertial>
      <origin rpy="0 0 0" xyz="-0.00934924449476787 -1.20738749553873E-09 -0.00656570463247875"/>
      <mass value="0.0544536529144548"/>
      <inertia ixx="6.1608306877813E-06" ixy="-1.48630786812854E-08" ixz="-3.66333645918454E-08" iyy="7.36783210634451E-06" iyz="1.48635489875795E-08" izz="7.24407314817233E-06"/>
    </inertial>
    <visual>
      <origin rpy="0 0 0" xyz="0 0 0"/>
      <geometry>
        <mesh filename="./../meshes/yaw_2_link.STL"/>
      </geometry>
      <material name="">
        <color rgba="0.180392156862745 0.180392156862745 0.180392156862745 1"/>
      </material>
    </visual>
    <collision>
      <origin rpy="0 0 0" xyz="0 0 0"/>
      <geometry>
        <mesh filename="./../meshes/yaw_2_link.STL"/>
      </geometry>
    </collision>
  </link>
  <joint name="griphis_4_yaw_2" type="continuous">
    <origin rpy="0 0 0" xyz="-0.0419999999999942 0.0175000000000631 0.0174999999999867"/>
    <parent link="griphis_4_pitch_2_link"/>
    <child link="griphis_4_yaw_2_link"/>
    <axis xyz="0 0 -1"/>
    <limit effort="3" velocity="10"/>
  </joint>
  <link name="griphis_4_roll_2_link">
    <inertial>
      <origin rpy="0 0 0" xyz="-0.0304847934275298 0.000533683595516123 -0.000138763582688578"/>
      <mass value="0.0617238803473503"/>
      <inertia ixx="1.72112591146286E-05" ixy="-2.34655399562003E-07" ixz="-1.72186999812873E-07" iyy="1.09105230206178E-05" iyz="-3.90599560037894E-08" izz="1.62402505711448E-05"/>
    </inertial>
    <visual>
      <origin rpy="0 0 0" xyz="0 0 0"/>
      <geometry>
        <mesh filename="./../meshes/roll_2_link.STL"/>
      </geometry>
      <material name="">
        <color rgba="1 1 1 1"/>
      </material>
    </visual>
    <collision>
      <origin rpy="0 0 0" xyz="0 0 0"/>
      <geometry>
        <mesh filename="./../meshes/roll_2_link.STL"/>
      </geometry>
    </collision>
  </link>
  <joint name="griphis_4_roll_2" type="continuous">
    <origin rpy="0 0 0" xyz="-0.0280000000000042 0 -0.0175000000000007"/>
    <parent link="griphis_4_yaw_2_link"/>
    <child link="griphis_4_roll_2_link"/>
    <axis xyz="-1 0 0"/>
    <limit effort="3" velocity="10"/>
  </joint>
  <link name="griphis_4_worm_2_link">
    <inertial>
      <origin rpy="0 0 0" xyz="-0.00680389920380498 5.66707617536341E-05 3.76180533663562E-06"/>
      <mass value="0.00387257616321651"/>
      <inertia ixx="2.0626455720602E-07" ixy="6.3200237698076E-10" ixz="-1.25909856906162E-09" iyy="1.713062458146E-07" iyz="1.39152999506885E-11" izz="1.71128105557195E-07"/>
    </inertial>
    <visual>
      <origin rpy="0 0 0" xyz="0 0 0"/>
      <geometry>
        <mesh filename="./../meshes/worm_2_link.STL"/>
      </geometry>
      <material name="">
        <color rgba="0.752941176470588 0.752941176470588 0.752941176470588 1"/>
      </material>
    </visual>
    <collision>
      <origin rpy="0 0 0" xyz="0 0 0"/>
      <geometry>
        <mesh filename="./../meshes/worm_2_link.STL"/>
      </geometry>
    </collision>
  </link>
  <joint name="griphis_4_worm_rotate_2" type="continuous">
    <origin rpy="0 0 0" xyz="-0.0470000000000015 0 0"/>
    <parent link="griphis_4_roll_2_link"/>
    <child link="griphis_4_worm_2_link"/>
    <axis xyz="0.737216674660088 0 0.675656402769279"/>
    <limit effort="15" velocity="10"/>
  </joint>
  <link name="griphis_4_nail1_2_link">
    <inertial>
      <origin rpy="0 0 0" xyz="-0.0375115559402153 0.000154761897861344 -0.000927613439127735"/>
      <mass value="0.00785451508753956"/>
      <inertia ixx="3.26792929870324E-07" ixy="-2.23311778394515E-10" ixz="3.04391588566463E-07" iyy="1.76174668735889E-06" iyz="8.72037168507631E-12" izz="1.60467609944963E-06"/>
    </inertial>
    <visual>
      <origin rpy="0 0 0" xyz="0 0 0"/>
      <geometry>
        <mesh filename="./../meshes/nail1_2_link.STL"/>
      </geometry>
      <material name="">
        <color rgba="1 1 1 1"/>
      </material>
    </visual>
    <collision>
      <origin rpy="0 0 0" xyz="0 0 0"/>
      <geometry>
        <mesh filename="./../meshes/nail1_2_link.STL"/>
      </geometry>
    </collision>
  </link>
  <joint name="griphis_4_nail1_rotate_2" type="continuous">
    <origin rpy="0 0 0" xyz="-0.0570000000000014 0 -0.0149999999999872"/>
    <parent link="griphis_4_roll_2_link"/>
    <child link="griphis_4_nail1_2_link"/>
    <axis xyz="0 -1 0"/>
    <mimic joint="griphis_4_worm_rotate_2" multiplier="0.091" offset="0"/>
  </joint>
  <link name="griphis_4_nail2_2_link">
    <inertial>
      <origin rpy="0 0 0" xyz="-0.0375922338704413 0.000920668174601659 0.000149875003347476"/>
      <mass value="0.00783920613274653"/>
      <inertia ixx="3.26764420600132E-07" ixy="-3.0408379603033E-07" ixz="-3.01596352109658E-10" iyy="1.60307023286001E-06" iyz="3.50228545423785E-11" izz="1.76008020337463E-06"/>
    </inertial>
    <visual>
      <origin rpy="0 0 0" xyz="0 0 0"/>
      <geometry>
        <mesh filename="./../meshes/nail2_2_link.STL"/>
      </geometry>
      <material name="">
        <color rgba="0.752941176470588 0.752941176470588 0.752941176470588 1"/>
      </material>
    </visual>
    <collision>
      <origin rpy="0 0 0" xyz="0 0 0"/>
      <geometry>
        <mesh filename="./../meshes/nail2_2_link.STL"/>
      </geometry>
    </collision>
  </link>
  <joint name="griphis_4_nail2_rotate_2" type="continuous">
    <origin rpy="0 0 0" xyz="-0.0570000000000009 0.015 0"/>
    <parent link="griphis_4_roll_2_link"/>
    <child link="griphis_4_nail2_2_link"/>
    <axis xyz="0 0 -1"/>
    <mimic joint="griphis_4_worm_rotate_2" multiplier="0.091" offset="0"/>
  </joint>
  <link name="griphis_4_nail3_2_link">
    <inertial>
      <origin rpy="0 0 0" xyz="-0.0376633576375554 4.50239708458949E-05 0.000912382199144402"/>
      <mass value="0.00782164323980893"/>
      <inertia ixx="3.26387568167086E-07" ixy="1.94469452048084E-10" ixz="-3.03929104031706E-07" iyy="1.75640452707709E-06" iyz="1.77166863189614E-11" izz="1.59916689354222E-06"/>
    </inertial>
    <visual>
      <origin rpy="0 0 0" xyz="0 0 0"/>
      <geometry>
        <mesh filename="./../meshes/nail3_2_link.STL"/>
      </geometry>
      <material name="">
        <color rgba="0.752941176470588 0.752941176470588 0.752941176470588 1"/>
      </material>
    </visual>
    <collision>
      <origin rpy="0 0 0" xyz="0 0 0"/>
      <geometry>
        <mesh filename="./../meshes/nail3_2_link.STL"/>
      </geometry>
    </collision>
  </link>
  <joint name="griphis_4_nail3_rotate_2" type="continuous">
    <origin rpy="0 0 0" xyz="-0.0570000000000004 0 0.0150000000000128"/>
    <parent link="griphis_4_roll_2_link"/>
    <child link="griphis_4_nail3_2_link"/>
    <axis xyz="0 1 0"/>
    <mimic joint="griphis_4_worm_rotate_2" multiplier="0.091" offset="0"/>
  </joint>
  <link name="griphis_4_nail4_2_link">
    <inertial>
      <origin rpy="0 0 0" xyz="-0.0376199045292857 -0.000916237603655147 -0.000157293429422369"/>
      <mass value="0.00783130292561298"/>
      <inertia ixx="3.26490723468276E-07" ixy="3.03988593137378E-07" ixz="4.37077734057104E-10" iyy="1.60061195688436E-06" iyz="-2.94387192594929E-11" izz="1.75778452318202E-06"/>
    </inertial>
    <visual>
      <origin rpy="0 0 0" xyz="0 0 0"/>
      <geometry>
        <mesh filename="./../meshes/nail4_2_link.STL"/>
      </geometry>
      <material name="">
        <color rgba="0.752941176470588 0.752941176470588 0.752941176470588 1"/>
      </material>
    </visual>
    <collision>
      <origin rpy="0 0 0" xyz="0 0 0"/>
      <geometry>
        <mesh filename="./../meshes/nail4_2_link.STL"/>
      </geometry>
    </collision>
  </link>
  <joint name="griphis_4_nail4_rotate_2" type="continuous">
    <origin rpy="0 0 0" xyz="-0.0570000000000017 -0.0149999999999955 0"/>
    <parent link="griphis_4_roll_2_link"/>
    <child link="griphis_4_nail4_2_link"/>
    <axis xyz="0 0 1"/>
    <mimic joint="griphis_4_worm_rotate_2" multiplier="0.091" offset="0"/>
  </joint>
  <link name="griphis_4_nail-cp2">
    <inertial>
      <origin rpy="0 0 0" xyz="0.000615813357965365 -0.00061581335794697 -0.0658092329631574"/>
      <mass value="0.00115853870137781"/>
      <inertia ixx="1.05682260080874E-07" ixy="-1.5764583148907E-09" ixz="-7.53303890952508E-11" iyy="1.05682260080874E-07" iyz="7.53303890920378E-11" izz="2.10812763376632E-07"/>
    </inertial>
    <visual>
      <origin rpy="0 0 0" xyz="0 0 0"/>
      <geometry>
        <mesh filename="./../meshes/nail-cp2.STL"/>
      </geometry>
      <material name="">
        <color rgba="0.796078431372549 0.823529411764706 0.937254901960784 1"/>
      </material>
    </visual>
    <collision>
      <origin rpy="0 0 0" xyz="0 0 0"/>
      <geometry>
        <mesh filename="./../meshes/nail-cp2.STL"/>
      </geometry>
    </collision>
  </link>
  <joint name="griphis_4_nail-cp2" type="fixed">
    <origin rpy="-1.5707963267949 0 1.5707963267949" xyz="-0.141700000000001 -0.000318198051535531 -0.00031819805151536"/>
    <parent link="griphis_4_roll_2_link"/>
    <child link="griphis_4_nail-cp2"/>
    <axis xyz="0 0 0"/>
  </joint>
  <link name="griphis_4_gripper-cp2">
    <inertial>
      <origin rpy="0 0 0" xyz="0.000249014516096963 -0.00102239026539895 0.0133818116212488"/>
      <mass value="0.0105278029927927"/>
      <inertia ixx="2.49426973639434E-06" ixy="4.53009756265701E-08" ixz="6.75736959710746E-08" iyy="2.70040122944888E-06" iyz="2.88247256637327E-07" izz="2.67368335360219E-06"/>
    </inertial>
    <visual>
      <origin rpy="0 0 0" xyz="0 0 0"/>
      <geometry>
        <mesh filename="./../meshes/gripper-cp2.STL"/>
      </geometry>
      <material name="">
        <color rgba="1 1 1 1"/>
      </material>
    </visual>
    <collision>
      <origin rpy="0 0 0" xyz="0 0 0"/>
      <geometry>
        <mesh filename="./../meshes/gripper-cp2.STL"/>
      </geometry>
    </collision>
  </link>
  <joint name="griphis_4_gripper-cp2" type="fixed">
    <origin rpy="-1.57079632679485 0 -1.57079632679489" xyz="-0.0766999999999999 -0.000318198051539618 -0.000318198051517046"/>
    <parent link="griphis_4_roll_2_link"/>
    <child link="griphis_4_gripper-cp2"/>
    <axis xyz="0 0 0"/>
  </joint>
  <link name="griphis_4_nailring2-cp1">
    <inertial>
      <origin rpy="0 0 0" xyz="0.000495209639943872 -2.15213011231508E-07 -0.0050022553385601"/>
      <mass value="0.00888435164177013"/>
      <inertia ixx="1.85848970375132E-06" ixy="4.08320407075244E-11" ixz="9.14133574374455E-10" iyy="1.88948158451332E-06" iyz="-1.81576174187697E-12" izz="3.47494887160991E-06"/>
    </inertial>
    <visual>
      <origin rpy="0 0 0" xyz="0 0 0"/>
      <geometry>
        <mesh filename="./../meshes/nailring2-cp1.STL"/>
      </geometry>
      <material name="">
        <color rgba="1 1 1 1"/>
      </material>
    </visual>
    <collision>
      <origin rpy="0 0 0" xyz="0 0 0"/>
      <geometry>
        <mesh filename="./../meshes/nailring2-cp1.STL"/>
      </geometry>
    </collision>
  </link>
  <joint name="griphis_4_nailring2-cp1" type="fixed">
    <origin rpy="3.14159265358978 0 -3.14159238847494" xyz="-0.0285999465033246 0 0.0330000000000001"/>
    <parent link="griphis_4_roll_2_link"/>
    <child link="griphis_4_nailring2-cp1"/>
    <axis xyz="0 0 0"/>
  </joint>
  <link name="griphis_4_nailring2-cp2">
    <inertial>
      <origin rpy="0 0 0" xyz="0.000495209639942984 -2.15213012050297E-07 -0.00500225533856015"/>
      <mass value="0.00888435164177019"/>
      <inertia ixx="1.85848970375134E-06" ixy="4.08320407074391E-11" ixz="9.14133574373919E-10" iyy="1.88948158451332E-06" iyz="-1.81576174216739E-12" izz="3.47494887160993E-06"/>
    </inertial>
    <visual>
      <origin rpy="0 0 0" xyz="0 0 0"/>
      <geometry>
        <mesh filename="./../meshes/nailring2-cp2.STL"/>
      </geometry>
      <material name="">
        <color rgba="1 1 1 1"/>
      </material>
    </visual>
    <collision>
      <origin rpy="0 0 0" xyz="0 0 0"/>
      <geometry>
        <mesh filename="./../meshes/nailring2-cp2.STL"/>
      </geometry>
    </collision>
  </link>
  <joint name="griphis_4_nailring2-cp2" type="fixed">
    <origin rpy="1.57079632679488 0 3.14159265358979" xyz="-0.0285999465033264 -0.0330000000000002 0"/>
    <parent link="griphis_4_roll_2_link"/>
    <child link="griphis_4_nailring2-cp2"/>
    <axis xyz="0 0 0"/>
  </joint>
  <link name="griphis_4_nailring2-cp3">
    <inertial>
      <origin rpy="0 0 0" xyz="-0.000495209639942817 2.15213012078053E-07 -0.00500225533856008"/>
      <mass value="0.00888435164177013"/>
      <inertia ixx="1.85848970375132E-06" ixy="4.08320407098813E-11" ixz="-9.14133574373917E-10" iyy="1.88948158451331E-06" iyz="1.81576173997682E-12" izz="3.4749488716099E-06"/>
    </inertial>
    <visual>
      <origin rpy="0 0 0" xyz="0 0 0"/>
      <geometry>
        <mesh filename="./../meshes/nailring2-cp3.STL"/>
      </geometry>
      <material name="">
        <color rgba="1 1 1 1"/>
      </material>
    </visual>
    <collision>
      <origin rpy="0 0 0" xyz="0 0 0"/>
      <geometry>
        <mesh filename="./../meshes/nailring2-cp3.STL"/>
      </geometry>
    </collision>
  </link>
  <joint name="griphis_4_nailring2-cp3" type="fixed">
    <origin rpy="0 0 3.14159238847493" xyz="-0.0284000534966716 0 -0.0330000000000008"/>
    <parent link="griphis_4_roll_2_link"/>
    <child link="griphis_4_nailring2-cp3"/>
    <axis xyz="0 0 0"/>
  </joint>
  <link name="griphis_4_nailring2-cp4">
    <inertial>
      <origin rpy="0 0 0" xyz="-0.000495209639943039 2.15213012015603E-07 -0.00500225533856"/>
      <mass value="0.00888435164177014"/>
      <inertia ixx="1.85848970375133E-06" ixy="4.08320407107192E-11" ixz="-9.14133574373996E-10" iyy="1.88948158451331E-06" iyz="1.81576174170535E-12" izz="3.47494887160991E-06"/>
    </inertial>
    <visual>
      <origin rpy="0 0 0" xyz="0 0 0"/>
      <geometry>
        <mesh filename="./../meshes/nailring2-cp4.STL"/>
      </geometry>
      <material name="">
        <color rgba="1 1 1 1"/>
      </material>
    </visual>
    <collision>
      <origin rpy="0 0 0" xyz="0 0 0"/>
      <geometry>
        <mesh filename="./../meshes/nailring2-cp4.STL"/>
      </geometry>
    </collision>
  </link>
  <joint name="griphis_4_nailring2-cp4" type="fixed">
    <origin rpy="-1.57079632679492 0 3.14159265358979" xyz="-0.0286000534966706 0.0329999999999998 0"/>
    <parent link="griphis_4_roll_2_link"/>
    <child link="griphis_4_nailring2-cp4"/>
    <axis xyz="0 0 0"/>
  </joint>
</robot>
